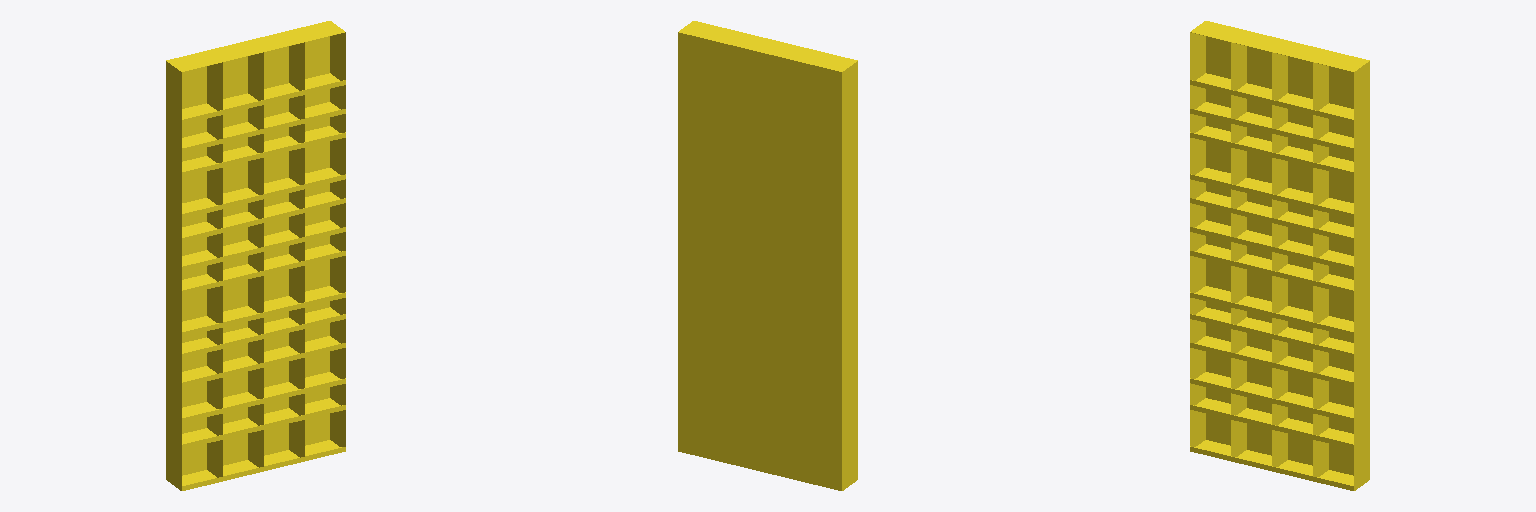
--- Render facts (derived) ---
The picture shows the robot from 3 angles, left to right: view 1: azimuth 30°, elevation 25°; view 2: azimuth 150°, elevation 25°; view 3: azimuth 330°, elevation 25°; orthographic projection.
Model pod1 with 380 links and 379 joints (1 revolute, 378 fixed), rooted at pod_base_link, posed every joint at zero.
Links seen in each view (by area): view 1: pod_bin_1m_back, pod_bin_2m_back, pod_bin_3m_back, pod_bin_4m_back, pod_bin_1m_left, pod_bin_1m_right, pod_bin_2m_right, pod_bin_3m_right, pod_bin_4m_right, pod_bin_1a_left, pod_bin_1j_left, pod_bin_1f_left (+28 smaller); view 2: pod_bin_4m_back, pod_bin_1m_back, pod_bin_2m_back, pod_bin_3m_back, pod_bin_3a_back, pod_bin_4a_back, pod_bin_1f_back, pod_bin_2f_back, pod_bin_3f_back, pod_bin_4f_back, pod_bin_1j_back, pod_bin_2j_back (+28 smaller); view 3: pod_bin_1m_back, pod_bin_2m_back, pod_bin_4m_back, pod_bin_3m_back, pod_bin_4m_right, pod_bin_3m_right, pod_bin_1m_left, pod_bin_1m_right, pod_bin_2m_right, pod_bin_4a_right, pod_bin_4f_right, pod_bin_4j_right (+28 smaller).
Boxes of the visible links, <box> form: pod_bin_1m_back: <box>166,51,206,108</box>; pod_bin_2m_back: <box>207,47,247,98</box>; pod_bin_3m_back: <box>248,37,288,88</box>; pod_bin_4m_back: <box>289,27,329,78</box>; pod_bin_1m_left: <box>166,61,181,124</box>; pod_bin_1m_right: <box>207,52,222,110</box>; pod_bin_2m_right: <box>248,44,263,100</box>; pod_bin_3m_right: <box>289,31,304,90</box>; pod_bin_4m_right: <box>330,21,345,80</box>; pod_bin_1a_left: <box>166,438,181,490</box>; pod_bin_1j_left: <box>166,166,181,218</box>; pod_bin_1f_left: <box>166,284,181,336</box>; pod_bin_4m_back: <box>678,32,718,94</box>; pod_bin_1m_back: <box>801,62,841,124</box>; pod_bin_2m_back: <box>760,52,800,114</box>; pod_bin_3m_back: <box>719,42,759,104</box>; pod_bin_3a_back: <box>719,420,759,470</box>; pod_bin_4a_back: <box>678,410,718,460</box>; pod_bin_1f_back: <box>801,286,841,336</box>; pod_bin_2f_back: <box>760,276,800,326</box>; pod_bin_3f_back: <box>719,266,759,316</box>; pod_bin_4f_back: <box>678,256,718,306</box>; pod_bin_1j_back: <box>801,167,841,218</box>; pod_bin_2j_back: <box>760,157,800,208</box>; pod_bin_1m_back: <box>1206,26,1242,78</box>; pod_bin_2m_back: <box>1247,36,1283,88</box>; pod_bin_4m_back: <box>1329,56,1369,108</box>; pod_bin_3m_back: <box>1288,46,1324,98</box>; pod_bin_4m_right: <box>1354,61,1369,124</box>; pod_bin_3m_right: <box>1313,54,1328,110</box>; pod_bin_1m_left: <box>1190,21,1205,80</box>; pod_bin_1m_right: <box>1231,34,1246,90</box>; pod_bin_2m_right: <box>1272,47,1287,100</box>; pod_bin_4a_right: <box>1354,438,1369,490</box>; pod_bin_4f_right: <box>1354,284,1369,336</box>; pod_bin_4j_right: <box>1354,166,1369,218</box>.
Bounding box of the posed robot: 0.9154 × 0.1534 × 2.23 m (x, y, z).
0 mesh visuals loaded from 1 distinct referenced files (none loaded); not drawn: 1 (reference not matched to a file when rendering).

robot.urdf — pod1:
<?xml version="1.0" ?>
<!-- =================================================================================== -->
<!-- |    This document was autogenerated by xacro from pod1.xacro                     | -->
<!-- |    EDITING THIS FILE BY HAND IS NOT RECOMMENDED                                 | -->
<!-- =================================================================================== -->
<robot name="pod1">
  <material name="yellow_fabric">
    <color rgba="1 .91 .2 1"/>
  </material>
  <material name="aluminum">
    <color rgba=".6 .6 .6 1"/>
  </material>
  <link name="pod_base_link">
    <inertial>
      <mass value="30.0"/>
      <inertia ixx="0.0002835" ixy="0.0" ixz="0.0" iyy="0.0002835" iyz="0.0" izz="0.000324"/>
    </inertial>
    <visual>
      <origin rpy="0 0 0" xyz=".4699 .4699 1.303"/>
      <geometry>
        <mesh filename="pod_frame.stl"/>
      </geometry>
      <material name="aluminum"/>
    </visual>
    <collision>
      <origin rpy="0 0 0" xyz=".4699 .4699 1.303"/>
      <geometry>
        <mesh filename="pod_frame.stl"/>
      </geometry>
    </collision>
  </link>
  <link name="pod_brace"/>
  <joint name="pod_base_link_pod_brace_joint" type="fixed">
    <origin xyz="0 0 .294"/>
    <parent link="pod_base_link"/>
    <child link="pod_brace"/>
  </joint>
  <link name="pod_fabric_base"/>
  <joint name="pod_brace_pod_fabric_base" type="fixed">
    <origin xyz="0.01 0.01 .045"/>
    <parent link="pod_brace"/>
    <child link="pod_fabric_base"/>
  </joint>
  <link name="pod_shelf_a"/>
  <link name="pod_bin_1a"/>
  <link name="pod_bin_1a_bottom">
    <inertial>
      <mass value="0.01"/>
      <inertia ixx="0.0002835" ixy="0.0" ixz="0.0" iyy="0.0002835" iyz="0.0" izz="0.000324"/>
    </inertial>
    <visual>
      <origin xyz="0.1143 0.07619999999999999 -0.0005"/>
      <geometry>
        <box size="0.2286 0.15239999999999998 0.001"/>
      </geometry>
      <material name="yellow_fabric"/>
    </visual>
    <collision>
      <origin xyz="0.1143 0.07619999999999999 -0.0005"/>
      <geometry>
        <box size="0.2286 0.15239999999999998 0.001"/>
      </geometry>
    </collision>
  </link>
  <link name="pod_bin_1a_left">
    <inertial>
      <mass value="0.01"/>
      <inertia ixx="0.0002835" ixy="0.0" ixz="0.0" iyy="0.0002835" iyz="0.0" izz="0.000324"/>
    </inertial>
    <visual>
      <origin xyz="0.07619999999999999 0.111125 -0.0005"/>
      <geometry>
        <box size="0.15239999999999998 0.22225 0.001"/>
      </geometry>
      <material name="yellow_fabric"/>
    </visual>
    <collision>
      <origin xyz="0.07619999999999999 0.111125 -0.0005"/>
      <geometry>
        <box size="0.15239999999999998 0.22225 0.001"/>
      </geometry>
    </collision>
  </link>
  <link name="pod_bin_1a_right">
    <inertial>
      <mass value="0.01"/>
      <inertia ixx="0.0002835" ixy="0.0" ixz="0.0" iyy="0.0002835" iyz="0.0" izz="0.000324"/>
    </inertial>
    <visual>
      <origin xyz="0.07619999999999999 0.111125 -0.0005"/>
      <geometry>
        <box size="0.15239999999999998 0.22225 0.001"/>
      </geometry>
      <material name="yellow_fabric"/>
    </visual>
    <collision>
      <origin xyz="0.07619999999999999 0.111125 -0.0005"/>
      <geometry>
        <box size="0.15239999999999998 0.22225 0.001"/>
      </geometry>
    </collision>
  </link>
  <link name="pod_bin_1a_top">
    <inertial>
      <mass value="0.01"/>
      <inertia ixx="0.0002835" ixy="0.0" ixz="0.0" iyy="0.0002835" iyz="0.0" izz="0.000324"/>
    </inertial>
    <visual>
      <origin xyz="0.1143 0.07619999999999999 -0.0005"/>
      <geometry>
        <box size="0.2286 0.15239999999999998 0.001"/>
      </geometry>
      <material name="yellow_fabric"/>
    </visual>
    <collision>
      <origin xyz="0.1143 0.07619999999999999 -0.0005"/>
      <geometry>
        <box size="0.2286 0.15239999999999998 0.001"/>
      </geometry>
    </collision>
  </link>
  <link name="pod_bin_1a_back">
    <inertial>
      <mass value="0.01"/>
      <inertia ixx="0.0002835" ixy="0.0" ixz="0.0" iyy="0.0002835" iyz="0.0" izz="0.000324"/>
    </inertial>
    <visual>
      <origin xyz="0.1143 0.111125 -0.0005"/>
      <geometry>
        <box size="0.2286 0.22225 0.001"/>
      </geometry>
      <material name="yellow_fabric"/>
    </visual>
    <collision>
      <origin xyz="0.1143 0.111125 -0.0005"/>
      <geometry>
        <box size="0.2286 0.22225 0.001"/>
      </geometry>
    </collision>
  </link>
  <link name="pod_bin_1a_flap">
    <inertial>
      <mass value="0.01"/>
      <inertia ixx="0.0002835" ixy="0.0" ixz="0.0" iyy="0.0002835" iyz="0.0" izz="0.000324"/>
    </inertial>
    <visual>
      <origin xyz="0.1143 0.0127 -0.0005"/>
      <geometry>
        <box size="0.2286 0.0254 0.001"/>
      </geometry>
      <material name="yellow_fabric"/>
    </visual>
    <collision>
      <origin xyz="0.1143 0.0127 -0.0005"/>
      <geometry>
        <box size="0.2286 0.0254 0.001"/>
      </geometry>
    </collision>
  </link>
  <joint name="pod_bin_1a_pod_bin_1a_bottom" type="fixed">
    <parent link="pod_bin_1a"/>
    <child link="pod_bin_1a_bottom"/>
  </joint>
  <joint name="pod_bin_1a_pod_bin_1a_left" type="fixed">
    <origin rpy="1.5707963267948966 0 1.5707963267948966 " xyz="0 0 0"/>
    <parent link="pod_bin_1a"/>
    <child link="pod_bin_1a_left"/>
  </joint>
  <joint name="pod_bin_1a_pod_bin_1a_right" type="fixed">
    <origin rpy="1.5707963267948966 0 1.5707963267948966 " xyz="0.2286 0 0"/>
    <parent link="pod_bin_1a"/>
    <child link="pod_bin_1a_right"/>
  </joint>
  <joint name="pod_bin_1a_pod_bin_1a_top" type="fixed">
    <origin rpy="0 0 0" xyz="0 0 0.22225"/>
    <parent link="pod_bin_1a"/>
    <child link="pod_bin_1a_top"/>
  </joint>
  <joint name="pod_bin_1a_pod_bin_1a_back" type="fixed">
    <origin rpy="1.5707963267948966 0 0" xyz="0 0.15239999999999998 0"/>
    <parent link="pod_bin_1a"/>
    <child link="pod_bin_1a_back"/>
  </joint>
  <joint name="pod_bin_1a_pod_bin_1a_flap" type="fixed">
    <origin rpy="1.5707963267948966 0 0" xyz="0 0 0"/>
    <parent link="pod_bin_1a"/>
    <child link="pod_bin_1a_flap"/>
  </joint>
  <joint name="pod_shelf_a_pod_bin_1a_joint" type="fixed">
    <origin xyz="0.0 0 0"/>
    <parent link="pod_shelf_a"/>
    <child link="pod_bin_1a"/>
  </joint>
  <link name="pod_bin_2a"/>
  <link name="pod_bin_2a_bottom">
    <inertial>
      <mass value="0.01"/>
      <inertia ixx="0.0002835" ixy="0.0" ixz="0.0" iyy="0.0002835" iyz="0.0" izz="0.000324"/>
    </inertial>
    <visual>
      <origin xyz="0.1143 0.07619999999999999 -0.0005"/>
      <geometry>
        <box size="0.2286 0.15239999999999998 0.001"/>
      </geometry>
      <material name="yellow_fabric"/>
    </visual>
    <collision>
      <origin xyz="0.1143 0.07619999999999999 -0.0005"/>
      <geometry>
        <box size="0.2286 0.15239999999999998 0.001"/>
      </geometry>
    </collision>
  </link>
  <link name="pod_bin_2a_left">
    <inertial>
      <mass value="0.01"/>
      <inertia ixx="0.0002835" ixy="0.0" ixz="0.0" iyy="0.0002835" iyz="0.0" izz="0.000324"/>
    </inertial>
    <visual>
      <origin xyz="0.07619999999999999 0.111125 -0.0005"/>
      <geometry>
        <box size="0.15239999999999998 0.22225 0.001"/>
      </geometry>
      <material name="yellow_fabric"/>
    </visual>
    <collision>
      <origin xyz="0.07619999999999999 0.111125 -0.0005"/>
      <geometry>
        <box size="0.15239999999999998 0.22225 0.001"/>
      </geometry>
    </collision>
  </link>
  <link name="pod_bin_2a_right">
    <inertial>
      <mass value="0.01"/>
      <inertia ixx="0.0002835" ixy="0.0" ixz="0.0" iyy="0.0002835" iyz="0.0" izz="0.000324"/>
    </inertial>
    <visual>
      <origin xyz="0.07619999999999999 0.111125 -0.0005"/>
      <geometry>
        <box size="0.15239999999999998 0.22225 0.001"/>
      </geometry>
      <material name="yellow_fabric"/>
    </visual>
    <collision>
      <origin xyz="0.07619999999999999 0.111125 -0.0005"/>
      <geometry>
        <box size="0.15239999999999998 0.22225 0.001"/>
      </geometry>
    </collision>
  </link>
  <link name="pod_bin_2a_top">
    <inertial>
      <mass value="0.01"/>
      <inertia ixx="0.0002835" ixy="0.0" ixz="0.0" iyy="0.0002835" iyz="0.0" izz="0.000324"/>
    </inertial>
    <visual>
      <origin xyz="0.1143 0.07619999999999999 -0.0005"/>
      <geometry>
        <box size="0.2286 0.15239999999999998 0.001"/>
      </geometry>
      <material name="yellow_fabric"/>
    </visual>
    <collision>
      <origin xyz="0.1143 0.07619999999999999 -0.0005"/>
      <geometry>
        <box size="0.2286 0.15239999999999998 0.001"/>
      </geometry>
    </collision>
  </link>
  <link name="pod_bin_2a_back">
    <inertial>
      <mass value="0.01"/>
      <inertia ixx="0.0002835" ixy="0.0" ixz="0.0" iyy="0.0002835" iyz="0.0" izz="0.000324"/>
    </inertial>
    <visual>
      <origin xyz="0.1143 0.111125 -0.0005"/>
      <geometry>
        <box size="0.2286 0.22225 0.001"/>
      </geometry>
      <material name="yellow_fabric"/>
    </visual>
    <collision>
      <origin xyz="0.1143 0.111125 -0.0005"/>
      <geometry>
        <box size="0.2286 0.22225 0.001"/>
      </geometry>
    </collision>
  </link>
  <link name="pod_bin_2a_flap">
    <inertial>
      <mass value="0.01"/>
      <inertia ixx="0.0002835" ixy="0.0" ixz="0.0" iyy="0.0002835" iyz="0.0" izz="0.000324"/>
    </inertial>
    <visual>
      <origin xyz="0.1143 0.0127 -0.0005"/>
      <geometry>
        <box size="0.2286 0.0254 0.001"/>
      </geometry>
      <material name="yellow_fabric"/>
    </visual>
    <collision>
      <origin xyz="0.1143 0.0127 -0.0005"/>
      <geometry>
        <box size="0.2286 0.0254 0.001"/>
      </geometry>
    </collision>
  </link>
  <joint name="pod_bin_2a_pod_bin_2a_bottom" type="fixed">
    <parent link="pod_bin_2a"/>
    <child link="pod_bin_2a_bottom"/>
  </joint>
  <joint name="pod_bin_2a_pod_bin_2a_left" type="fixed">
    <origin rpy="1.5707963267948966 0 1.5707963267948966 " xyz="0 0 0"/>
    <parent link="pod_bin_2a"/>
    <child link="pod_bin_2a_left"/>
  </joint>
  <joint name="pod_bin_2a_pod_bin_2a_right" type="fixed">
    <origin rpy="1.5707963267948966 0 1.5707963267948966 " xyz="0.2286 0 0"/>
    <parent link="pod_bin_2a"/>
    <child link="pod_bin_2a_right"/>
  </joint>
  <joint name="pod_bin_2a_pod_bin_2a_top" type="fixed">
    <origin rpy="0 0 0" xyz="0 0 0.22225"/>
    <parent link="pod_bin_2a"/>
    <child link="pod_bin_2a_top"/>
  </joint>
  <joint name="pod_bin_2a_pod_bin_2a_back" type="fixed">
    <origin rpy="1.5707963267948966 0 0" xyz="0 0.15239999999999998 0"/>
    <parent link="pod_bin_2a"/>
    <child link="pod_bin_2a_back"/>
  </joint>
  <joint name="pod_bin_2a_pod_bin_2a_flap" type="fixed">
    <origin rpy="1.5707963267948966 0 0" xyz="0 0 0"/>
    <parent link="pod_bin_2a"/>
    <child link="pod_bin_2a_flap"/>
  </joint>
  <joint name="pod_shelf_a_pod_bin_2a_joint" type="fixed">
    <origin xyz="0.2286 0 0"/>
    <parent link="pod_shelf_a"/>
    <child link="pod_bin_2a"/>
  </joint>
  <link name="pod_bin_3a"/>
  <link name="pod_bin_3a_bottom">
    <inertial>
      <mass value="0.01"/>
      <inertia ixx="0.0002835" ixy="0.0" ixz="0.0" iyy="0.0002835" iyz="0.0" izz="0.000324"/>
    </inertial>
    <visual>
      <origin xyz="0.1143 0.07619999999999999 -0.0005"/>
      <geometry>
        <box size="0.2286 0.15239999999999998 0.001"/>
      </geometry>
      <material name="yellow_fabric"/>
    </visual>
    <collision>
      <origin xyz="0.1143 0.07619999999999999 -0.0005"/>
      <geometry>
        <box size="0.2286 0.15239999999999998 0.001"/>
      </geometry>
    </collision>
  </link>
  <link name="pod_bin_3a_left">
    <inertial>
      <mass value="0.01"/>
      <inertia ixx="0.0002835" ixy="0.0" ixz="0.0" iyy="0.0002835" iyz="0.0" izz="0.000324"/>
    </inertial>
    <visual>
      <origin xyz="0.07619999999999999 0.111125 -0.0005"/>
      <geometry>
        <box size="0.15239999999999998 0.22225 0.001"/>
      </geometry>
      <material name="yellow_fabric"/>
    </visual>
    <collision>
      <origin xyz="0.07619999999999999 0.111125 -0.0005"/>
      <geometry>
        <box size="0.15239999999999998 0.22225 0.001"/>
      </geometry>
    </collision>
  </link>
  <link name="pod_bin_3a_right">
    <inertial>
      <mass value="0.01"/>
      <inertia ixx="0.0002835" ixy="0.0" ixz="0.0" iyy="0.0002835" iyz="0.0" izz="0.000324"/>
    </inertial>
    <visual>
      <origin xyz="0.07619999999999999 0.111125 -0.0005"/>
      <geometry>
        <box size="0.15239999999999998 0.22225 0.001"/>
      </geometry>
      <material name="yellow_fabric"/>
    </visual>
    <collision>
      <origin xyz="0.07619999999999999 0.111125 -0.0005"/>
      <geometry>
        <box size="0.15239999999999998 0.22225 0.001"/>
      </geometry>
    </collision>
  </link>
  <link name="pod_bin_3a_top">
    <inertial>
      <mass value="0.01"/>
      <inertia ixx="0.0002835" ixy="0.0" ixz="0.0" iyy="0.0002835" iyz="0.0" izz="0.000324"/>
    </inertial>
    <visual>
      <origin xyz="0.1143 0.07619999999999999 -0.0005"/>
      <geometry>
        <box size="0.2286 0.15239999999999998 0.001"/>
      </geometry>
      <material name="yellow_fabric"/>
    </visual>
    <collision>
      <origin xyz="0.1143 0.07619999999999999 -0.0005"/>
      <geometry>
        <box size="0.2286 0.15239999999999998 0.001"/>
      </geometry>
    </collision>
  </link>
  <link name="pod_bin_3a_back">
    <inertial>
      <mass value="0.01"/>
      <inertia ixx="0.0002835" ixy="0.0" ixz="0.0" iyy="0.0002835" iyz="0.0" izz="0.000324"/>
    </inertial>
    <visual>
      <origin xyz="0.1143 0.111125 -0.0005"/>
      <geometry>
        <box size="0.2286 0.22225 0.001"/>
      </geometry>
      <material name="yellow_fabric"/>
    </visual>
    <collision>
      <origin xyz="0.1143 0.111125 -0.0005"/>
      <geometry>
        <box size="0.2286 0.22225 0.001"/>
      </geometry>
    </collision>
  </link>
  <link name="pod_bin_3a_flap">
    <inertial>
      <mass value="0.01"/>
      <inertia ixx="0.0002835" ixy="0.0" ixz="0.0" iyy="0.0002835" iyz="0.0" izz="0.000324"/>
    </inertial>
    <visual>
      <origin xyz="0.1143 0.0127 -0.0005"/>
      <geometry>
        <box size="0.2286 0.0254 0.001"/>
      </geometry>
      <material name="yellow_fabric"/>
    </visual>
    <collision>
      <origin xyz="0.1143 0.0127 -0.0005"/>
      <geometry>
        <box size="0.2286 0.0254 0.001"/>
      </geometry>
    </collision>
  </link>
  <joint name="pod_bin_3a_pod_bin_3a_bottom" type="fixed">
    <parent link="pod_bin_3a"/>
    <child link="pod_bin_3a_bottom"/>
  </joint>
  <joint name="pod_bin_3a_pod_bin_3a_left" type="fixed">
    <origin rpy="1.5707963267948966 0 1.5707963267948966 " xyz="0 0 0"/>
    <parent link="pod_bin_3a"/>
    <child link="pod_bin_3a_left"/>
  </joint>
  <joint name="pod_bin_3a_pod_bin_3a_right" type="fixed">
    <origin rpy="1.5707963267948966 0 1.5707963267948966 " xyz="0.2286 0 0"/>
    <parent link="pod_bin_3a"/>
    <child link="pod_bin_3a_right"/>
  </joint>
  <joint name="pod_bin_3a_pod_bin_3a_top" type="fixed">
    <origin rpy="0 0 0" xyz="0 0 0.22225"/>
    <parent link="pod_bin_3a"/>
    <child link="pod_bin_3a_top"/>
  </joint>
  <joint name="pod_bin_3a_pod_bin_3a_back" type="fixed">
    <origin rpy="1.5707963267948966 0 0" xyz="0 0.15239999999999998 0"/>
    <parent link="pod_bin_3a"/>
    <child link="pod_bin_3a_back"/>
  </joint>
  <joint name="pod_bin_3a_pod_bin_3a_flap" type="fixed">
    <origin rpy="1.5707963267948966 0 0" xyz="0 0 0"/>
    <parent link="pod_bin_3a"/>
    <child link="pod_bin_3a_flap"/>
  </joint>
  <joint name="pod_shelf_a_pod_bin_3a_joint" type="fixed">
    <origin xyz="0.4572 0 0"/>
    <parent link="pod_shelf_a"/>
    <child link="pod_bin_3a"/>
  </joint>
  <link name="pod_bin_4a"/>
  <link name="pod_bin_4a_bottom">
    <inertial>
      <mass value="0.01"/>
      <inertia ixx="0.0002835" ixy="0.0" ixz="0.0" iyy="0.0002835" iyz="0.0" izz="0.000324"/>
    </inertial>
    <visual>
      <origin xyz="0.1143 0.07619999999999999 -0.0005"/>
      <geometry>
        <box size="0.2286 0.15239999999999998 0.001"/>
      </geometry>
      <material name="yellow_fabric"/>
    </visual>
    <collision>
      <origin xyz="0.1143 0.07619999999999999 -0.0005"/>
      <geometry>
        <box size="0.2286 0.15239999999999998 0.001"/>
      </geometry>
    </collision>
  </link>
  <link name="pod_bin_4a_left">
    <inertial>
      <mass value="0.01"/>
      <inertia ixx="0.0002835" ixy="0.0" ixz="0.0" iyy="0.0002835" iyz="0.0" izz="0.000324"/>
    </inertial>
    <visual>
      <origin xyz="0.07619999999999999 0.111125 -0.0005"/>
      <geometry>
        <box size="0.15239999999999998 0.22225 0.001"/>
      </geometry>
      <material name="yellow_fabric"/>
    </visual>
    <collision>
      <origin xyz="0.07619999999999999 0.111125 -0.0005"/>
      <geometry>
        <box size="0.15239999999999998 0.22225 0.001"/>
      </geometry>
    </collision>
  </link>
  <link name="pod_bin_4a_right">
    <inertial>
      <mass value="0.01"/>
      <inertia ixx="0.0002835" ixy="0.0" ixz="0.0" iyy="0.0002835" iyz="0.0" izz="0.000324"/>
    </inertial>
    <visual>
      <origin xyz="0.07619999999999999 0.111125 -0.0005"/>
      <geometry>
        <box size="0.15239999999999998 0.22225 0.001"/>
      </geometry>
      <material name="yellow_fabric"/>
    </visual>
    <collision>
      <origin xyz="0.07619999999999999 0.111125 -0.0005"/>
      <geometry>
        <box size="0.15239999999999998 0.22225 0.001"/>
      </geometry>
    </collision>
  </link>
  <link name="pod_bin_4a_top">
    <inertial>
      <mass value="0.01"/>
      <inertia ixx="0.0002835" ixy="0.0" ixz="0.0" iyy="0.0002835" iyz="0.0" izz="0.000324"/>
    </inertial>
    <visual>
      <origin xyz="0.1143 0.07619999999999999 -0.0005"/>
      <geometry>
        <box size="0.2286 0.15239999999999998 0.001"/>
      </geometry>
      <material name="yellow_fabric"/>
    </visual>
    <collision>
      <origin xyz="0.1143 0.07619999999999999 -0.0005"/>
      <geometry>
        <box size="0.2286 0.15239999999999998 0.001"/>
      </geometry>
    </collision>
  </link>
  <link name="pod_bin_4a_back">
    <inertial>
      <mass value="0.01"/>
      <inertia ixx="0.0002835" ixy="0.0" ixz="0.0" iyy="0.0002835" iyz="0.0" izz="0.000324"/>
    </inertial>
    <visual>
      <origin xyz="0.1143 0.111125 -0.0005"/>
      <geometry>
        <box size="0.2286 0.22225 0.001"/>
      </geometry>
      <material name="yellow_fabric"/>
    </visual>
    <collision>
      <origin xyz="0.1143 0.111125 -0.0005"/>
      <geometry>
        <box size="0.2286 0.22225 0.001"/>
      </geometry>
    </collision>
  </link>
  <link name="pod_bin_4a_flap">
    <inertial>
      <mass value="0.01"/>
      <inertia ixx="0.0002835" ixy="0.0" ixz="0.0" iyy="0.0002835" iyz="0.0" izz="0.000324"/>
    </inertial>
    <visual>
      <origin xyz="0.1143 0.0127 -0.0005"/>
      <geometry>
        <box size="0.2286 0.0254 0.001"/>
      </geometry>
      <material name="yellow_fabric"/>
    </visual>
    <collision>
      <origin xyz="0.1143 0.0127 -0.0005"/>
      <geometry>
        <box size="0.2286 0.0254 0.001"/>
      </geometry>
    </collision>
  </link>
  <joint name="pod_bin_4a_pod_bin_4a_bottom" type="fixed">
    <parent link="pod_bin_4a"/>
    <child link="pod_bin_4a_bottom"/>
  </joint>
  <joint name="pod_bin_4a_pod_bin_4a_left" type="fixed">
    <origin rpy="1.5707963267948966 0 1.5707963267948966 " xyz="0 0 0"/>
    <parent link="pod_bin_4a"/>
    <child link="pod_bin_4a_left"/>
  </joint>
  <joint name="pod_bin_4a_pod_bin_4a_right" type="fixed">
    <origin rpy="1.5707963267948966 0 1.5707963267948966 " xyz="0.2286 0 0"/>
    <parent link="pod_bin_4a"/>
    <child link="pod_bin_4a_right"/>
  </joint>
  <joint name="pod_bin_4a_pod_bin_4a_top" type="fixed">
    <origin rpy="0 0 0" xyz="0 0 0.22225"/>
    <parent link="pod_bin_4a"/>
    <child link="pod_bin_4a_top"/>
  </joint>
  <joint name="pod_bin_4a_pod_bin_4a_back" type="fixed">
    <origin rpy="1.5707963267948966 0 0" xyz="0 0.15239999999999998 0"/>
    <parent link="pod_bin_4a"/>
    <child link="pod_bin_4a_back"/>
  </joint>
  <joint name="pod_bin_4a_pod_bin_4a_flap" type="fixed">
    <origin rpy="1.5707963267948966 0 0" xyz="0 0 0"/>
    <parent link="pod_bin_4a"/>
    <child link="pod_bin_4a_flap"/>
  </joint>
  <joint name="pod_shelf_a_pod_bin_4a_joint" type="fixed">
    <origin xyz="0.6858 0 0"/>
    <parent link="pod_shelf_a"/>
    <child link="pod_bin_4a"/>
  </joint>
  <joint name="pod_fabric_base_pod_shelf_a_joint" type="fixed">
    <origin xyz="0 0 0"/>
    <parent link="pod_fabric_base"/>
    <child link="pod_shelf_a"/>
  </joint>
  <link name="pod_shelf_b"/>
  <link name="pod_bin_1b"/>
  <link name="pod_bin_1b_bottom">
    <inertial>
      <mass value="0.01"/>
      <inertia ixx="0.0002835" ixy="0.0" ixz="0.0" iyy="0.0002835" iyz="0.0" izz="0.000324"/>
    </inertial>
    <visual>
      <origin xyz="0.1143 0.07619999999999999 -0.0005"/>
      <geometry>
        <box size="0.2286 0.15239999999999998 0.001"/>
      </geometry>
      <material name="yellow_fabric"/>
    </visual>
    <collision>
      <origin xyz="0.1143 0.07619999999999999 -0.0005"/>
      <geometry>
        <box size="0.2286 0.15239999999999998 0.001"/>
      </geometry>
    </collision>
  </link>
  <link name="pod_bin_1b_left">
    <inertial>
      <mass value="0.01"/>
      <inertia ixx="0.0002835" ixy="0.0" ixz="0.0" iyy="0.0002835" iyz="0.0" izz="0.000324"/>
    </inertial>
    <visual>
      <origin xyz="0.07619999999999999 0.06985 -0.0005"/>
      <geometry>
        <box size="0.15239999999999998 0.1397 0.001"/>
      </geometry>
      <material name="yellow_fabric"/>
    </visual>
    <collision>
      <origin xyz="0.07619999999999999 0.06985 -0.0005"/>
      <geometry>
        <box size="0.15239999999999998 0.1397 0.001"/>
      </geometry>
    </collision>
  </link>
  <link name="pod_bin_1b_right">
    <inertial>
      <mass value="0.01"/>
      <inertia ixx="0.0002835" ixy="0.0" ixz="0.0" iyy="0.0002835" iyz="0.0" izz="0.000324"/>
    </inertial>
    <visual>
      <origin xyz="0.07619999999999999 0.06985 -0.0005"/>
      <geometry>
        <box size="0.15239999999999998 0.1397 0.001"/>
      </geometry>
      <material name="yellow_fabric"/>
    </visual>
    <collision>
      <origin xyz="0.07619999999999999 0.06985 -0.0005"/>
      <geometry>
        <box size="0.15239999999999998 0.1397 0.001"/>
      </geometry>
    </collision>
  </link>
  <link name="pod_bin_1b_top">
    <inertial>
      <mass value="0.01"/>
      <inertia ixx="0.0002835" ixy="0.0" ixz="0.0" iyy="0.0002835" iyz="0.0" izz="0.000324"/>
    </inertial>
    <visual>
      <origin xyz="0.1143 0.07619999999999999 -0.0005"/>
      <geometry>
        <box size="0.2286 0.15239999999999998 0.001"/>
      </geometry>
      <material name="yellow_fabric"/>
    </visual>
    <collision>
      <origin xyz="0.1143 0.07619999999999999 -0.0005"/>
      <geometry>
        <box size="0.2286 0.15239999999999998 0.001"/>
      </geometry>
    </collision>
  </link>
  <link name="pod_bin_1b_back">
    <inertial>
      <mass value="0.01"/>
      <inertia ixx="0.0002835" ixy="0.0" ixz="0.0" iyy="0.0002835" iyz="0.0" izz="0.000324"/>
    </inertial>
    <visual>
      <origin xyz="0.1143 0.06985 -0.0005"/>
      <geometry>
        <box size="0.2286 0.1397 0.001"/>
      </geometry>
      <material name="yellow_fabric"/>
    </visual>
    <collision>
      <origin xyz="0.1143 0.06985 -0.0005"/>
      <geometry>
        <box size="0.2286 0.1397 0.001"/>
      </geometry>
    </collision>
  </link>
  <link name="pod_bin_1b_flap">
    <inertial>
      <mass value="0.01"/>
      <inertia ixx="0.0002835" ixy="0.0" ixz="0.0" iyy="0.0002835" iyz="0.0" izz="0.000324"/>
    </inertial>
    <visual>
      <origin xyz="0.1143 0.0127 -0.0005"/>
      <geometry>
        <box size="0.2286 0.0254 0.001"/>
      </geometry>
      <material name="yellow_fabric"/>
    </visual>
    <collision>
      <origin xyz="0.1143 0.0127 -0.0005"/>
      <geometry>
        <box size="0.2286 0.0254 0.001"/>
      </geometry>
    </collision>
  </link>
  <joint name="pod_bin_1b_pod_bin_1b_bottom" type="fixed">
    <parent link="pod_bin_1b"/>
    <child link="pod_bin_1b_bottom"/>
  </joint>
  <joint name="pod_bin_1b_pod_bin_1b_left" type="fixed">
    <origin rpy="1.5707963267948966 0 1.5707963267948966 " xyz="0 0 0"/>
    <parent link="pod_bin_1b"/>
    <child link="pod_bin_1b_left"/>
  </joint>
  <joint name="pod_bin_1b_pod_bin_1b_right" type="fixed">
    <origin rpy="1.5707963267948966 0 1.5707963267948966 " xyz="0.2286 0 0"/>
    <parent link="pod_bin_1b"/>
    <child link="pod_bin_1b_right"/>
  </joint>
  <joint name="pod_bin_1b_pod_bin_1b_top" type="fixed">
    <origin rpy="0 0 0" xyz="0 0 0.1397"/>
    <parent link="pod_bin_1b"/>
    <child link="pod_bin_1b_top"/>
  </joint>
  <joint name="pod_bin_1b_pod_bin_1b_back" type="fixed">
    <origin rpy="1.5707963267948966 0 0" xyz="0 0.15239999999999998 0"/>
    <parent link="pod_bin_1b"/>
    <child link="pod_bin_1b_back"/>
  </joint>
  <joint name="pod_bin_1b_pod_bin_1b_flap" type="fixed">
    <origin rpy="1.5707963267948966 0 0" xyz="0 0 0"/>
    <parent link="pod_bin_1b"/>
    <child link="pod_bin_1b_flap"/>
  </joint>
  <joint name="pod_shelf_b_pod_bin_1b_joint" type="fixed">
    <origin xyz="0.0 0 0"/>
    <parent link="pod_shelf_b"/>
    <child link="pod_bin_1b"/>
  </joint>
  <link name="pod_bin_2b"/>
  <link name="pod_bin_2b_bottom">
    <inertial>
      <mass value="0.01"/>
      <inertia ixx="0.0002835" ixy="0.0" ixz="0.0" iyy="0.0002835" iyz="0.0" izz="0.000324"/>
    </inertial>
    <visual>
      <origin xyz="0.1143 0.07619999999999999 -0.0005"/>
      <geometry>
        <box size="0.2286 0.15239999999999998 0.001"/>
      </geometry>
      <material name="yellow_fabric"/>
    </visual>
    <collision>
      <origin xyz="0.1143 0.07619999999999999 -0.0005"/>
      <geometry>
        <box size="0.2286 0.15239999999999998 0.001"/>
      </geometry>
    </collision>
  </link>
  <link name="pod_bin_2b_left">
    <inertial>
      <mass value="0.01"/>
      <inertia ixx="0.0002835" ixy="0.0" ixz="0.0" iyy="0.0002835" iyz="0.0" izz="0.000324"/>
    </inertial>
    <visual>
      <origin xyz="0.07619999999999999 0.06985 -0.0005"/>
      <geometry>
        <box size="0.15239999999999998 0.1397 0.001"/>
      </geometry>
      <material name="yellow_fabric"/>
    </visual>
    <collision>
      <origin xyz="0.07619999999999999 0.06985 -0.0005"/>
      <geometry>
        <box size="0.15239999999999998 0.1397 0.001"/>
      </geometry>
    </collision>
  </link>
  <link name="pod_bin_2b_right">
    <inertial>
      <mass value="0.01"/>
      <inertia ixx="0.0002835" ixy="0.0" ixz="0.0" iyy="0.0002835" iyz="0.0" izz="0.000324"/>
    </inertial>
    <visual>
      <origin xyz="0.07619999999999999 0.06985 -0.0005"/>
      <geometry>
        <box size="0.15239999999999998 0.1397 0.001"/>
      </geometry>
      <material name="yellow_fabric"/>
    </visual>
    <collision>
      <origin xyz="0.07619999999999999 0.06985 -0.0005"/>
      <geometry>
        <box size="0.15239999999999998 0.1397 0.001"/>
      </geometry>
    </collision>
  </link>
  <link name="pod_bin_2b_top">
    <inertial>
      <mass value="0.01"/>
      <inertia ixx="0.0002835" ixy="0.0" ixz="0.0" iyy="0.0002835" iyz="0.0" izz="0.000324"/>
    </inertial>
    <visual>
      <origin xyz="0.1143 0.07619999999999999 -0.0005"/>
      <geometry>
        <box size="0.2286 0.15239999999999998 0.001"/>
      </geometry>
      <material name="yellow_fabric"/>
    </visual>
    <collision>
      <origin xyz="0.1143 0.07619999999999999 -0.0005"/>
      <geometry>
        <box size="0.2286 0.15239999999999998 0.001"/>
      </geometry>
    </collision>
  </link>
  <link name="pod_bin_2b_back">
    <inertial>
      <mass value="0.01"/>
      <inertia ixx="0.0002835" ixy="0.0" ixz="0.0" iyy="0.0002835" iyz="0.0" izz="0.000324"/>
    </inertial>
    <visual>
      <origin xyz="0.1143 0.06985 -0.0005"/>
      <geometry>
        <box size="0.2286 0.1397 0.001"/>
      </geometry>
      <material name="yellow_fabric"/>
    </visual>
    <collision>
      <origin xyz="0.1143 0.06985 -0.0005"/>
      <geometry>
        <box size="0.2286 0.1397 0.001"/>
      </geometry>
    </collision>
  </link>
  <link name="pod_bin_2b_flap">
    <inertial>
      <mass value="0.01"/>
      <inertia ixx="0.0002835" ixy="0.0" ixz="0.0" iyy="0.0002835" iyz="0.0" izz="0.000324"/>
    </inertial>
    <visual>
      <origin xyz="0.1143 0.0127 -0.0005"/>
      <geometry>
        <box size="0.2286 0.0254 0.001"/>
      </geometry>
      <material name="yellow_fabric"/>
    </visual>
    <collision>
      <origin xyz="0.1143 0.0127 -0.0005"/>
      <geometry>
        <box size="0.2286 0.0254 0.001"/>
      </geometry>
    </collision>
  </link>
  <joint name="pod_bin_2b_pod_bin_2b_bottom" type="fixed">
    <parent link="pod_bin_2b"/>
    <child link="pod_bin_2b_bottom"/>
  </joint>
  <joint name="pod_bin_2b_pod_bin_2b_left" type="fixed">
    <origin rpy="1.5707963267948966 0 1.5707963267948966 " xyz="0 0 0"/>
    <parent link="pod_bin_2b"/>
    <child link="pod_bin_2b_left"/>
  </joint>
  <joint name="pod_bin_2b_pod_bin_2b_right" type="fixed">
    <origin rpy="1.5707963267948966 0 1.5707963267948966 " xyz="0.2286 0 0"/>
    <parent link="pod_bin_2b"/>
    <child link="pod_bin_2b_right"/>
  </joint>
  <joint name="pod_bin_2b_pod_bin_2b_top" type="fixed">
    <origin rpy="0 0 0" xyz="0 0 0.1397"/>
    <parent link="pod_bin_2b"/>
    <child link="pod_bin_2b_top"/>
  </joint>
  <joint name="pod_bin_2b_pod_bin_2b_back" type="fixed">
    <origin rpy="1.5707963267948966 0 0" xyz="0 0.15239999999999998 0"/>
    <parent link="pod_bin_2b"/>
    <child link="pod_bin_2b_back"/>
  </joint>
  <joint name="pod_bin_2b_pod_bin_2b_flap" type="fixed">
    <origin rpy="1.5707963267948966 0 0" xyz="0 0 0"/>
    <parent link="pod_bin_2b"/>
    <child link="pod_bin_2b_flap"/>
  </joint>
  <joint name="pod_shelf_b_pod_bin_2b_joint" type="fixed">
    <origin xyz="0.2286 0 0"/>
    <parent link="pod_shelf_b"/>
    <child link="pod_bin_2b"/>
  </joint>
  <link name="pod_bin_3b"/>
  <link name="pod_bin_3b_bottom">
    <inertial>
      <mass value="0.01"/>
      <inertia ixx="0.0002835" ixy="0.0" ixz="0.0" iyy="0.0002835" iyz="0.0" izz="0.000324"/>
    </inertial>
    <visual>
      <origin xyz="0.1143 0.07619999999999999 -0.0005"/>
      <geometry>
        <box size="0.2286 0.15239999999999998 0.001"/>
      </geometry>
      <material name="yellow_fabric"/>
    </visual>
    <collision>
      <origin xyz="0.1143 0.07619999999999999 -0.0005"/>
      <geometry>
        <box size="0.2286 0.15239999999999998 0.001"/>
      </geometry>
    </collision>
  </link>
  <link name="pod_bin_3b_left">
    <inertial>
      <mass value="0.01"/>
      <inertia ixx="0.0002835" ixy="0.0" ixz="0.0" iyy="0.0002835" iyz="0.0" izz="0.000324"/>
    </inertial>
    <visual>
      <origin xyz="0.07619999999999999 0.06985 -0.0005"/>
      <geometry>
        <box size="0.15239999999999998 0.1397 0.001"/>
      </geometry>
      <material name="yellow_fabric"/>
    </visual>
    <collision>
      <origin xyz="0.07619999999999999 0.06985 -0.0005"/>
      <geometry>
        <box size="0.15239999999999998 0.1397 0.001"/>
      </geometry>
    </collision>
  </link>
  <link name="pod_bin_3b_right">
    <inertial>
      <mass value="0.01"/>
      <inertia ixx="0.0002835" ixy="0.0" ixz="0.0" iyy="0.0002835" iyz="0.0" izz="0.000324"/>
    </inertial>
    <visual>
      <origin xyz="0.07619999999999999 0.06985 -0.0005"/>
      <geometry>
        <box size="0.15239999999999998 0.1397 0.001"/>
      </geometry>
      <material name="yellow_fabric"/>
    </visual>
    <collision>
      <origin xyz="0.07619999999999999 0.06985 -0.0005"/>
      <geometry>
        <box size="0.15239999999999998 0.1397 0.001"/>
      </geometry>
    </collision>
  </link>
  <link name="pod_bin_3b_top">
    <inertial>
      <mass value="0.01"/>
      <inertia ixx="0.0002835" ixy="0.0" ixz="0.0" iyy="0.0002835" iyz="0.0" izz="0.000324"/>
    </inertial>
    <visual>
      <origin xyz="0.1143 0.07619999999999999 -0.0005"/>
      <geometry>
        <box size="0.2286 0.15239999999999998 0.001"/>
      </geometry>
      <material name="yellow_fabric"/>
    </visual>
    <collision>
      <origin xyz="0.1143 0.07619999999999999 -0.0005"/>
      <geometry>
        <box size="0.2286 0.15239999999999998 0.001"/>
      </geometry>
    </collision>
  </link>
  <link name="pod_bin_3b_back">
    <inertial>
      <mass value="0.01"/>
      <inertia ixx="0.0002835" ixy="0.0" ixz="0.0" iyy="0.0002835" iyz="0.0" izz="0.000324"/>
    </inertial>
    <visual>
      <origin xyz="0.1143 0.06985 -0.0005"/>
      <geometry>
        <box size="0.2286 0.1397 0.001"/>
      </geometry>
      <material name="yellow_fabric"/>
    </visual>
    <collision>
      <origin xyz="0.1143 0.06985 -0.0005"/>
      <geometry>
        <box size="0.2286 0.1397 0.001"/>
      </geometry>
    </collision>
  </link>
  <link name="pod_bin_3b_flap">
    <inertial>
      <mass value="0.01"/>
      <inertia ixx="0.0002835" ixy="0.0" ixz="0.0" iyy="0.0002835" iyz="0.0" izz="0.000324"/>
    </inertial>
    <visual>
      <origin xyz="0.1143 0.0127 -0.0005"/>
      <geometry>
        <box size="0.2286 0.0254 0.001"/>
      </geometry>
      <material name="yellow_fabric"/>
    </visual>
    <collision>
      <origin xyz="0.1143 0.0127 -0.0005"/>
      <geometry>
        <box size="0.2286 0.0254 0.001"/>
      </geometry>
    </collision>
  </link>
  <joint name="pod_bin_3b_pod_bin_3b_bottom" type="fixed">
    <parent link="pod_bin_3b"/>
    <child link="pod_bin_3b_bottom"/>
  </joint>
  <joint name="pod_bin_3b_pod_bin_3b_left" type="fixed">
    <origin rpy="1.5707963267948966 0 1.5707963267948966 " xyz="0 0 0"/>
    <parent link="pod_bin_3b"/>
    <child link="pod_bin_3b_left"/>
  </joint>
  <joint name="pod_bin_3b_pod_bin_3b_right" type="fixed">
    <origin rpy="1.5707963267948966 0 1.5707963267948966 " xyz="0.2286 0 0"/>
    <parent link="pod_bin_3b"/>
    <child link="pod_bin_3b_right"/>
  </joint>
  <joint name="pod_bin_3b_pod_bin_3b_top" type="fixed">
    <origin rpy="0 0 0" xyz="0 0 0.1397"/>
    <parent link="pod_bin_3b"/>
    <child link="pod_bin_3b_top"/>
  </joint>
  <joint name="pod_bin_3b_pod_bin_3b_back" type="fixed">
    <origin rpy="1.5707963267948966 0 0" xyz="0 0.15239999999999998 0"/>
    <parent link="pod_bin_3b"/>
    <child link="pod_bin_3b_back"/>
  </joint>
  <joint name="pod_bin_3b_pod_bin_3b_flap" type="fixed">
    <origin rpy="1.5707963267948966 0 0" xyz="0 0 0"/>
    <parent link="pod_bin_3b"/>
    <child link="pod_bin_3b_flap"/>
  </joint>
  <joint name="pod_shelf_b_pod_bin_3b_joint" type="fixed">
    <origin xyz="0.4572 0 0"/>
    <parent link="pod_shelf_b"/>
    <child link="pod_bin_3b"/>
  </joint>
  <link name="pod_bin_4b"/>
  <link name="pod_bin_4b_bottom">
    <inertial>
      <mass value="0.01"/>
      <inertia ixx="0.0002835" ixy="0.0" ixz="0.0" iyy="0.0002835" iyz="0.0" izz="0.000324"/>
    </inertial>
    <visual>
      <origin xyz="0.1143 0.07619999999999999 -0.0005"/>
      <geometry>
        <box size="0.2286 0.15239999999999998 0.001"/>
      </geometry>
      <material name="yellow_fabric"/>
    </visual>
    <collision>
      <origin xyz="0.1143 0.07619999999999999 -0.0005"/>
      <geometry>
        <box size="0.2286 0.15239999999999998 0.001"/>
      </geometry>
    </collision>
  </link>
  <link name="pod_bin_4b_left">
    <inertial>
      <mass value="0.01"/>
      <inertia ixx="0.0002835" ixy="0.0" ixz="0.0" iyy="0.0002835" iyz="0.0" izz="0.000324"/>
    </inertial>
    <visual>
      <origin xyz="0.07619999999999999 0.06985 -0.0005"/>
      <geometry>
        <box size="0.15239999999999998 0.1397 0.001"/>
      </geometry>
      <material name="yellow_fabric"/>
    </visual>
    <collision>
      <origin xyz="0.07619999999999999 0.06985 -0.0005"/>
      <geometry>
        <box size="0.15239999999999998 0.1397 0.001"/>
      </geometry>
    </collision>
  </link>
  <link name="pod_bin_4b_right">
    <inertial>
      <mass value="0.01"/>
      <inertia ixx="0.0002835" ixy="0.0" ixz="0.0" iyy="0.0002835" iyz="0.0" izz="0.000324"/>
    </inertial>
    <visual>
      <origin xyz="0.07619999999999999 0.06985 -0.0005"/>
      <geometry>
        <box size="0.15239999999999998 0.1397 0.001"/>
      </geometry>
      <material name="yellow_fabric"/>
    </visual>
    <collision>
      <origin xyz="0.07619999999999999 0.06985 -0.0005"/>
      <geometry>
        <box size="0.15239999999999998 0.1397 0.001"/>
      </geometry>
    </collision>
  </link>
  <link name="pod_bin_4b_top">
    <inertial>
      <mass value="0.01"/>
      <inertia ixx="0.0002835" ixy="0.0" ixz="0.0" iyy="0.0002835" iyz="0.0" izz="0.000324"/>
    </inertial>
    <visual>
      <origin xyz="0.1143 0.07619999999999999 -0.0005"/>
      <geometry>
        <box size="0.2286 0.15239999999999998 0.001"/>
      </geometry>
      <material name="yellow_fabric"/>
    </visual>
    <collision>
      <origin xyz="0.1143 0.07619999999999999 -0.0005"/>
      <geometry>
        <box size="0.2286 0.15239999999999998 0.001"/>
      </geometry>
    </collision>
  </link>
  <link name="pod_bin_4b_back">
    <inertial>
      <mass value="0.01"/>
      <inertia ixx="0.0002835" ixy="0.0" ixz="0.0" iyy="0.0002835" iyz="0.0" izz="0.000324"/>
    </inertial>
    <visual>
      <origin xyz="0.1143 0.06985 -0.0005"/>
      <geometry>
        <box size="0.2286 0.1397 0.001"/>
      </geometry>
      <material name="yellow_fabric"/>
    </visual>
    <collision>
      <origin xyz="0.1143 0.06985 -0.0005"/>
      <geometry>
        <box size="0.2286 0.1397 0.001"/>
      </geometry>
    </collision>
  </link>
  <link name="pod_bin_4b_flap">
    <inertial>
      <mass value="0.01"/>
      <inertia ixx="0.0002835" ixy="0.0" ixz="0.0" iyy="0.0002835" iyz="0.0" izz="0.000324"/>
    </inertial>
    <visual>
      <origin xyz="0.1143 0.0127 -0.0005"/>
      <geometry>
        <box size="0.2286 0.0254 0.001"/>
      </geometry>
      <material name="yellow_fabric"/>
    </visual>
    <collision>
      <origin xyz="0.1143 0.0127 -0.0005"/>
      <geometry>
        <box size="0.2286 0.0254 0.001"/>
      </geometry>
    </collision>
  </link>
  <joint name="pod_bin_4b_pod_bin_4b_bottom" type="fixed">
    <parent link="pod_bin_4b"/>
    <child link="pod_bin_4b_bottom"/>
  </joint>
  <joint name="pod_bin_4b_pod_bin_4b_left" type="fixed">
    <origin rpy="1.5707963267948966 0 1.5707963267948966 " xyz="0 0 0"/>
    <parent link="pod_bin_4b"/>
    <child link="pod_bin_4b_left"/>
  </joint>
  <joint name="pod_bin_4b_pod_bin_4b_right" type="fixed">
    <origin rpy="1.5707963267948966 0 1.5707963267948966 " xyz="0.2286 0 0"/>
    <parent link="pod_bin_4b"/>
    <child link="pod_bin_4b_right"/>
  </joint>
  <joint name="pod_bin_4b_pod_bin_4b_top" type="fixed">
    <origin rpy="0 0 0" xyz="0 0 0.1397"/>
    <parent link="pod_bin_4b"/>
    <child link="pod_bin_4b_top"/>
  </joint>
  <joint name="pod_bin_4b_pod_bin_4b_back" type="fixed">
    <origin rpy="1.5707963267948966 0 0" xyz="0 0.15239999999999998 0"/>
    <parent link="pod_bin_4b"/>
    <child link="pod_bin_4b_back"/>
  </joint>
  <joint name="pod_bin_4b_pod_bin_4b_flap" type="fixed">
    <origin rpy="1.5707963267948966 0 0" xyz="0 0 0"/>
    <parent link="pod_bin_4b"/>
    <child link="pod_bin_4b_flap"/>
  </joint>
  <joint name="pod_shelf_b_pod_bin_4b_joint" type="fixed">
    <origin xyz="0.6858 0 0"/>
    <parent link="pod_shelf_b"/>
    <child link="pod_bin_4b"/>
  </joint>
  <joint name="pod_fabric_base_pod_shelf_b_joint" type="fixed">
    <origin xyz="0 0 0.22225"/>
    <parent link="pod_fabric_base"/>
    <child link="pod_shelf_b"/>
  </joint>
  <link name="pod_shelf_c"/>
  <link name="pod_bin_1c"/>
  <link name="pod_bin_1c_bottom">
    <inertial>
      <mass value="0.01"/>
      <inertia ixx="0.0002835" ixy="0.0" ixz="0.0" iyy="0.0002835" iyz="0.0" izz="0.000324"/>
    </inertial>
    <visual>
      <origin xyz="0.1143 0.07619999999999999 -0.0005"/>
      <geometry>
        <box size="0.2286 0.15239999999999998 0.001"/>
      </geometry>
      <material name="yellow_fabric"/>
    </visual>
    <collision>
      <origin xyz="0.1143 0.07619999999999999 -0.0005"/>
      <geometry>
        <box size="0.2286 0.15239999999999998 0.001"/>
      </geometry>
    </collision>
  </link>
  <link name="pod_bin_1c_left">
    <inertial>
      <mass value="0.01"/>
      <inertia ixx="0.0002835" ixy="0.0" ixz="0.0" iyy="0.0002835" iyz="0.0" izz="0.000324"/>
    </inertial>
    <visual>
      <origin xyz="0.07619999999999999 0.09525 -0.0005"/>
      <geometry>
        <box size="0.15239999999999998 0.1905 0.001"/>
      </geometry>
      <material name="yellow_fabric"/>
    </visual>
    <collision>
      <origin xyz="0.07619999999999999 0.09525 -0.0005"/>
      <geometry>
        <box size="0.15239999999999998 0.1905 0.001"/>
      </geometry>
    </collision>
  </link>
  <link name="pod_bin_1c_right">
    <inertial>
      <mass value="0.01"/>
      <inertia ixx="0.0002835" ixy="0.0" ixz="0.0" iyy="0.0002835" iyz="0.0" izz="0.000324"/>
    </inertial>
    <visual>
      <origin xyz="0.07619999999999999 0.09525 -0.0005"/>
      <geometry>
        <box size="0.15239999999999998 0.1905 0.001"/>
      </geometry>
      <material name="yellow_fabric"/>
    </visual>
    <collision>
      <origin xyz="0.07619999999999999 0.09525 -0.0005"/>
      <geometry>
        <box size="0.15239999999999998 0.1905 0.001"/>
      </geometry>
    </collision>
  </link>
  <link name="pod_bin_1c_top">
    <inertial>
      <mass value="0.01"/>
      <inertia ixx="0.0002835" ixy="0.0" ixz="0.0" iyy="0.0002835" iyz="0.0" izz="0.000324"/>
    </inertial>
    <visual>
      <origin xyz="0.1143 0.07619999999999999 -0.0005"/>
      <geometry>
        <box size="0.2286 0.15239999999999998 0.001"/>
      </geometry>
      <material name="yellow_fabric"/>
    </visual>
    <collision>
      <origin xyz="0.1143 0.07619999999999999 -0.0005"/>
      <geometry>
        <box size="0.2286 0.15239999999999998 0.001"/>
      </geometry>
    </collision>
  </link>
  <link name="pod_bin_1c_back">
    <inertial>
      <mass value="0.01"/>
      <inertia ixx="0.0002835" ixy="0.0" ixz="0.0" iyy="0.0002835" iyz="0.0" izz="0.000324"/>
    </inertial>
    <visual>
      <origin xyz="0.1143 0.09525 -0.0005"/>
      <geometry>
        <box size="0.2286 0.1905 0.001"/>
      </geometry>
      <material name="yellow_fabric"/>
    </visual>
    <collision>
      <origin xyz="0.1143 0.09525 -0.0005"/>
      <geometry>
        <box size="0.2286 0.1905 0.001"/>
      </geometry>
    </collision>
  </link>
  <link name="pod_bin_1c_flap">
    <inertial>
      <mass value="0.01"/>
      <inertia ixx="0.0002835" ixy="0.0" ixz="0.0" iyy="0.0002835" iyz="0.0" izz="0.000324"/>
    </inertial>
    <visual>
      <origin xyz="0.1143 0.0127 -0.0005"/>
      <geometry>
        <box size="0.2286 0.0254 0.001"/>
      </geometry>
      <material name="yellow_fabric"/>
    </visual>
    <collision>
      <origin xyz="0.1143 0.0127 -0.0005"/>
      <geometry>
        <box size="0.2286 0.0254 0.001"/>
      </geometry>
    </collision>
  </link>
  <joint name="pod_bin_1c_pod_bin_1c_bottom" type="fixed">
    <parent link="pod_bin_1c"/>
    <child link="pod_bin_1c_bottom"/>
  </joint>
  <joint name="pod_bin_1c_pod_bin_1c_left" type="fixed">
    <origin rpy="1.5707963267948966 0 1.5707963267948966 " xyz="0 0 0"/>
    <parent link="pod_bin_1c"/>
    <child link="pod_bin_1c_left"/>
  </joint>
  <joint name="pod_bin_1c_pod_bin_1c_right" type="fixed">
    <origin rpy="1.5707963267948966 0 1.5707963267948966 " xyz="0.2286 0 0"/>
    <parent link="pod_bin_1c"/>
    <child link="pod_bin_1c_right"/>
  </joint>
  <joint name="pod_bin_1c_pod_bin_1c_top" type="fixed">
    <origin rpy="0 0 0" xyz="0 0 0.1905"/>
    <parent link="pod_bin_1c"/>
    <child link="pod_bin_1c_top"/>
  </joint>
  <joint name="pod_bin_1c_pod_bin_1c_back" type="fixed">
    <origin rpy="1.5707963267948966 0 0" xyz="0 0.15239999999999998 0"/>
    <parent link="pod_bin_1c"/>
    <child link="pod_bin_1c_back"/>
  </joint>
  <joint name="pod_bin_1c_pod_bin_1c_flap" type="fixed">
    <origin rpy="1.5707963267948966 0 0" xyz="0 0 0"/>
    <parent link="pod_bin_1c"/>
    <child link="pod_bin_1c_flap"/>
  </joint>
  <joint name="pod_shelf_c_pod_bin_1c_joint" type="fixed">
    <origin xyz="0.0 0 0"/>
    <parent link="pod_shelf_c"/>
    <child link="pod_bin_1c"/>
  </joint>
  <link name="pod_bin_2c"/>
  <link name="pod_bin_2c_bottom">
    <inertial>
      <mass value="0.01"/>
      <inertia ixx="0.0002835" ixy="0.0" ixz="0.0" iyy="0.0002835" iyz="0.0" izz="0.000324"/>
    </inertial>
    <visual>
      <origin xyz="0.1143 0.07619999999999999 -0.0005"/>
      <geometry>
        <box size="0.2286 0.15239999999999998 0.001"/>
      </geometry>
      <material name="yellow_fabric"/>
    </visual>
    <collision>
      <origin xyz="0.1143 0.07619999999999999 -0.0005"/>
      <geometry>
        <box size="0.2286 0.15239999999999998 0.001"/>
      </geometry>
    </collision>
  </link>
  <link name="pod_bin_2c_left">
    <inertial>
      <mass value="0.01"/>
      <inertia ixx="0.0002835" ixy="0.0" ixz="0.0" iyy="0.0002835" iyz="0.0" izz="0.000324"/>
    </inertial>
    <visual>
      <origin xyz="0.07619999999999999 0.09525 -0.0005"/>
      <geometry>
        <box size="0.15239999999999998 0.1905 0.001"/>
      </geometry>
      <material name="yellow_fabric"/>
    </visual>
    <collision>
      <origin xyz="0.07619999999999999 0.09525 -0.0005"/>
      <geometry>
        <box size="0.15239999999999998 0.1905 0.001"/>
      </geometry>
    </collision>
  </link>
  <link name="pod_bin_2c_right">
    <inertial>
      <mass value="0.01"/>
      <inertia ixx="0.0002835" ixy="0.0" ixz="0.0" iyy="0.0002835" iyz="0.0" izz="0.000324"/>
    </inertial>
    <visual>
      <origin xyz="0.07619999999999999 0.09525 -0.0005"/>
      <geometry>
        <box size="0.15239999999999998 0.1905 0.001"/>
      </geometry>
      <material name="yellow_fabric"/>
    </visual>
    <collision>
      <origin xyz="0.07619999999999999 0.09525 -0.0005"/>
      <geometry>
        <box size="0.15239999999999998 0.1905 0.001"/>
      </geometry>
    </collision>
  </link>
  <link name="pod_bin_2c_top">
    <inertial>
      <mass value="0.01"/>
      <inertia ixx="0.0002835" ixy="0.0" ixz="0.0" iyy="0.0002835" iyz="0.0" izz="0.000324"/>
    </inertial>
    <visual>
      <origin xyz="0.1143 0.07619999999999999 -0.0005"/>
      <geometry>
        <box size="0.2286 0.15239999999999998 0.001"/>
      </geometry>
      <material name="yellow_fabric"/>
    </visual>
    <collision>
      <origin xyz="0.1143 0.07619999999999999 -0.0005"/>
      <geometry>
        <box size="0.2286 0.15239999999999998 0.001"/>
      </geometry>
    </collision>
  </link>
  <link name="pod_bin_2c_back">
    <inertial>
      <mass value="0.01"/>
      <inertia ixx="0.0002835" ixy="0.0" ixz="0.0" iyy="0.0002835" iyz="0.0" izz="0.000324"/>
    </inertial>
    <visual>
      <origin xyz="0.1143 0.09525 -0.0005"/>
      <geometry>
        <box size="0.2286 0.1905 0.001"/>
      </geometry>
      <material name="yellow_fabric"/>
    </visual>
    <collision>
      <origin xyz="0.1143 0.09525 -0.0005"/>
      <geometry>
        <box size="0.2286 0.1905 0.001"/>
      </geometry>
    </collision>
  </link>
  <link name="pod_bin_2c_flap">
    <inertial>
      <mass value="0.01"/>
      <inertia ixx="0.0002835" ixy="0.0" ixz="0.0" iyy="0.0002835" iyz="0.0" izz="0.000324"/>
    </inertial>
    <visual>
      <origin xyz="0.1143 0.0127 -0.0005"/>
      <geometry>
        <box size="0.2286 0.0254 0.001"/>
      </geometry>
      <material name="yellow_fabric"/>
    </visual>
    <collision>
      <origin xyz="0.1143 0.0127 -0.0005"/>
      <geometry>
        <box size="0.2286 0.0254 0.001"/>
      </geometry>
    </collision>
  </link>
  <joint name="pod_bin_2c_pod_bin_2c_bottom" type="fixed">
    <parent link="pod_bin_2c"/>
    <child link="pod_bin_2c_bottom"/>
  </joint>
  <joint name="pod_bin_2c_pod_bin_2c_left" type="fixed">
    <origin rpy="1.5707963267948966 0 1.5707963267948966 " xyz="0 0 0"/>
    <parent link="pod_bin_2c"/>
    <child link="pod_bin_2c_left"/>
  </joint>
  <joint name="pod_bin_2c_pod_bin_2c_right" type="fixed">
    <origin rpy="1.5707963267948966 0 1.5707963267948966 " xyz="0.2286 0 0"/>
    <parent link="pod_bin_2c"/>
    <child link="pod_bin_2c_right"/>
  </joint>
  <joint name="pod_bin_2c_pod_bin_2c_top" type="fixed">
    <origin rpy="0 0 0" xyz="0 0 0.1905"/>
    <parent link="pod_bin_2c"/>
    <child link="pod_bin_2c_top"/>
  </joint>
  <joint name="pod_bin_2c_pod_bin_2c_back" type="fixed">
    <origin rpy="1.5707963267948966 0 0" xyz="0 0.15239999999999998 0"/>
    <parent link="pod_bin_2c"/>
    <child link="pod_bin_2c_back"/>
  </joint>
  <joint name="pod_bin_2c_pod_bin_2c_flap" type="fixed">
    <origin rpy="1.5707963267948966 0 0" xyz="0 0 0"/>
    <parent link="pod_bin_2c"/>
    <child link="pod_bin_2c_flap"/>
  </joint>
  <joint name="pod_shelf_c_pod_bin_2c_joint" type="fixed">
    <origin xyz="0.2286 0 0"/>
    <parent link="pod_shelf_c"/>
    <child link="pod_bin_2c"/>
  </joint>
  <link name="pod_bin_3c"/>
  <link name="pod_bin_3c_bottom">
    <inertial>
      <mass value="0.01"/>
      <inertia ixx="0.0002835" ixy="0.0" ixz="0.0" iyy="0.0002835" iyz="0.0" izz="0.000324"/>
    </inertial>
    <visual>
      <origin xyz="0.1143 0.07619999999999999 -0.0005"/>
      <geometry>
        <box size="0.2286 0.15239999999999998 0.001"/>
      </geometry>
      <material name="yellow_fabric"/>
    </visual>
    <collision>
      <origin xyz="0.1143 0.07619999999999999 -0.0005"/>
      <geometry>
        <box size="0.2286 0.15239999999999998 0.001"/>
      </geometry>
    </collision>
  </link>
  <link name="pod_bin_3c_left">
    <inertial>
      <mass value="0.01"/>
      <inertia ixx="0.0002835" ixy="0.0" ixz="0.0" iyy="0.0002835" iyz="0.0" izz="0.000324"/>
    </inertial>
    <visual>
      <origin xyz="0.07619999999999999 0.09525 -0.0005"/>
      <geometry>
        <box size="0.15239999999999998 0.1905 0.001"/>
      </geometry>
      <material name="yellow_fabric"/>
    </visual>
    <collision>
      <origin xyz="0.07619999999999999 0.09525 -0.0005"/>
      <geometry>
        <box size="0.15239999999999998 0.1905 0.001"/>
      </geometry>
    </collision>
  </link>
  <link name="pod_bin_3c_right">
    <inertial>
      <mass value="0.01"/>
      <inertia ixx="0.0002835" ixy="0.0" ixz="0.0" iyy="0.0002835" iyz="0.0" izz="0.000324"/>
    </inertial>
    <visual>
      <origin xyz="0.07619999999999999 0.09525 -0.0005"/>
      <geometry>
        <box size="0.15239999999999998 0.1905 0.001"/>
      </geometry>
      <material name="yellow_fabric"/>
    </visual>
    <collision>
      <origin xyz="0.07619999999999999 0.09525 -0.0005"/>
      <geometry>
        <box size="0.15239999999999998 0.1905 0.001"/>
      </geometry>
    </collision>
  </link>
  <link name="pod_bin_3c_top">
    <inertial>
      <mass value="0.01"/>
      <inertia ixx="0.0002835" ixy="0.0" ixz="0.0" iyy="0.0002835" iyz="0.0" izz="0.000324"/>
    </inertial>
    <visual>
      <origin xyz="0.1143 0.07619999999999999 -0.0005"/>
      <geometry>
        <box size="0.2286 0.15239999999999998 0.001"/>
      </geometry>
      <material name="yellow_fabric"/>
    </visual>
    <collision>
      <origin xyz="0.1143 0.07619999999999999 -0.0005"/>
      <geometry>
        <box size="0.2286 0.15239999999999998 0.001"/>
      </geometry>
    </collision>
  </link>
  <link name="pod_bin_3c_back">
    <inertial>
      <mass value="0.01"/>
      <inertia ixx="0.0002835" ixy="0.0" ixz="0.0" iyy="0.0002835" iyz="0.0" izz="0.000324"/>
    </inertial>
    <visual>
      <origin xyz="0.1143 0.09525 -0.0005"/>
      <geometry>
        <box size="0.2286 0.1905 0.001"/>
      </geometry>
      <material name="yellow_fabric"/>
    </visual>
    <collision>
      <origin xyz="0.1143 0.09525 -0.0005"/>
      <geometry>
        <box size="0.2286 0.1905 0.001"/>
      </geometry>
    </collision>
  </link>
  <link name="pod_bin_3c_flap">
    <inertial>
      <mass value="0.01"/>
      <inertia ixx="0.0002835" ixy="0.0" ixz="0.0" iyy="0.0002835" iyz="0.0" izz="0.000324"/>
    </inertial>
    <visual>
      <origin xyz="0.1143 0.0127 -0.0005"/>
      <geometry>
        <box size="0.2286 0.0254 0.001"/>
      </geometry>
      <material name="yellow_fabric"/>
    </visual>
    <collision>
      <origin xyz="0.1143 0.0127 -0.0005"/>
      <geometry>
        <box size="0.2286 0.0254 0.001"/>
      </geometry>
    </collision>
  </link>
  <joint name="pod_bin_3c_pod_bin_3c_bottom" type="fixed">
    <parent link="pod_bin_3c"/>
    <child link="pod_bin_3c_bottom"/>
  </joint>
  <joint name="pod_bin_3c_pod_bin_3c_left" type="fixed">
    <origin rpy="1.5707963267948966 0 1.5707963267948966 " xyz="0 0 0"/>
    <parent link="pod_bin_3c"/>
    <child link="pod_bin_3c_left"/>
  </joint>
  <joint name="pod_bin_3c_pod_bin_3c_right" type="fixed">
    <origin rpy="1.5707963267948966 0 1.5707963267948966 " xyz="0.2286 0 0"/>
    <parent link="pod_bin_3c"/>
    <child link="pod_bin_3c_right"/>
  </joint>
  <joint name="pod_bin_3c_pod_bin_3c_top" type="fixed">
    <origin rpy="0 0 0" xyz="0 0 0.1905"/>
    <parent link="pod_bin_3c"/>
    <child link="pod_bin_3c_top"/>
  </joint>
  <joint name="pod_bin_3c_pod_bin_3c_back" type="fixed">
    <origin rpy="1.5707963267948966 0 0" xyz="0 0.15239999999999998 0"/>
    <parent link="pod_bin_3c"/>
    <child link="pod_bin_3c_back"/>
  </joint>
  <joint name="pod_bin_3c_pod_bin_3c_flap" type="fixed">
    <origin rpy="1.5707963267948966 0 0" xyz="0 0 0"/>
    <parent link="pod_bin_3c"/>
    <child link="pod_bin_3c_flap"/>
  </joint>
  <joint name="pod_shelf_c_pod_bin_3c_joint" type="fixed">
    <origin xyz="0.4572 0 0"/>
    <parent link="pod_shelf_c"/>
    <child link="pod_bin_3c"/>
  </joint>
  <link name="pod_bin_4c"/>
  <link name="pod_bin_4c_bottom">
    <inertial>
      <mass value="0.01"/>
      <inertia ixx="0.0002835" ixy="0.0" ixz="0.0" iyy="0.0002835" iyz="0.0" izz="0.000324"/>
    </inertial>
    <visual>
      <origin xyz="0.1143 0.07619999999999999 -0.0005"/>
      <geometry>
        <box size="0.2286 0.15239999999999998 0.001"/>
      </geometry>
      <material name="yellow_fabric"/>
    </visual>
    <collision>
      <origin xyz="0.1143 0.07619999999999999 -0.0005"/>
      <geometry>
        <box size="0.2286 0.15239999999999998 0.001"/>
      </geometry>
    </collision>
  </link>
  <link name="pod_bin_4c_left">
    <inertial>
      <mass value="0.01"/>
      <inertia ixx="0.0002835" ixy="0.0" ixz="0.0" iyy="0.0002835" iyz="0.0" izz="0.000324"/>
    </inertial>
    <visual>
      <origin xyz="0.07619999999999999 0.09525 -0.0005"/>
      <geometry>
        <box size="0.15239999999999998 0.1905 0.001"/>
      </geometry>
      <material name="yellow_fabric"/>
    </visual>
    <collision>
      <origin xyz="0.07619999999999999 0.09525 -0.0005"/>
      <geometry>
        <box size="0.15239999999999998 0.1905 0.001"/>
      </geometry>
    </collision>
  </link>
  <link name="pod_bin_4c_right">
    <inertial>
      <mass value="0.01"/>
      <inertia ixx="0.0002835" ixy="0.0" ixz="0.0" iyy="0.0002835" iyz="0.0" izz="0.000324"/>
    </inertial>
    <visual>
      <origin xyz="0.07619999999999999 0.09525 -0.0005"/>
      <geometry>
        <box size="0.15239999999999998 0.1905 0.001"/>
      </geometry>
      <material name="yellow_fabric"/>
    </visual>
    <collision>
      <origin xyz="0.07619999999999999 0.09525 -0.0005"/>
      <geometry>
        <box size="0.15239999999999998 0.1905 0.001"/>
      </geometry>
    </collision>
  </link>
  <link name="pod_bin_4c_top">
    <inertial>
      <mass value="0.01"/>
      <inertia ixx="0.0002835" ixy="0.0" ixz="0.0" iyy="0.0002835" iyz="0.0" izz="0.000324"/>
    </inertial>
    <visual>
      <origin xyz="0.1143 0.07619999999999999 -0.0005"/>
      <geometry>
        <box size="0.2286 0.15239999999999998 0.001"/>
      </geometry>
      <material name="yellow_fabric"/>
    </visual>
    <collision>
      <origin xyz="0.1143 0.07619999999999999 -0.0005"/>
      <geometry>
        <box size="0.2286 0.15239999999999998 0.001"/>
      </geometry>
    </collision>
  </link>
  <link name="pod_bin_4c_back">
    <inertial>
      <mass value="0.01"/>
      <inertia ixx="0.0002835" ixy="0.0" ixz="0.0" iyy="0.0002835" iyz="0.0" izz="0.000324"/>
    </inertial>
    <visual>
      <origin xyz="0.1143 0.09525 -0.0005"/>
      <geometry>
        <box size="0.2286 0.1905 0.001"/>
      </geometry>
      <material name="yellow_fabric"/>
    </visual>
    <collision>
      <origin xyz="0.1143 0.09525 -0.0005"/>
      <geometry>
        <box size="0.2286 0.1905 0.001"/>
      </geometry>
    </collision>
  </link>
  <link name="pod_bin_4c_flap">
    <inertial>
      <mass value="0.01"/>
      <inertia ixx="0.0002835" ixy="0.0" ixz="0.0" iyy="0.0002835" iyz="0.0" izz="0.000324"/>
    </inertial>
    <visual>
      <origin xyz="0.1143 0.0127 -0.0005"/>
      <geometry>
        <box size="0.2286 0.0254 0.001"/>
      </geometry>
      <material name="yellow_fabric"/>
    </visual>
    <collision>
      <origin xyz="0.1143 0.0127 -0.0005"/>
      <geometry>
        <box size="0.2286 0.0254 0.001"/>
      </geometry>
    </collision>
  </link>
  <joint name="pod_bin_4c_pod_bin_4c_bottom" type="fixed">
    <parent link="pod_bin_4c"/>
    <child link="pod_bin_4c_bottom"/>
  </joint>
  <joint name="pod_bin_4c_pod_bin_4c_left" type="fixed">
    <origin rpy="1.5707963267948966 0 1.5707963267948966 " xyz="0 0 0"/>
    <parent link="pod_bin_4c"/>
    <child link="pod_bin_4c_left"/>
  </joint>
  <joint name="pod_bin_4c_pod_bin_4c_right" type="fixed">
    <origin rpy="1.5707963267948966 0 1.5707963267948966 " xyz="0.2286 0 0"/>
    <parent link="pod_bin_4c"/>
    <child link="pod_bin_4c_right"/>
  </joint>
  <joint name="pod_bin_4c_pod_bin_4c_top" type="fixed">
    <origin rpy="0 0 0" xyz="0 0 0.1905"/>
    <parent link="pod_bin_4c"/>
    <child link="pod_bin_4c_top"/>
  </joint>
  <joint name="pod_bin_4c_pod_bin_4c_back" type="fixed">
    <origin rpy="1.5707963267948966 0 0" xyz="0 0.15239999999999998 0"/>
    <parent link="pod_bin_4c"/>
    <child link="pod_bin_4c_back"/>
  </joint>
  <joint name="pod_bin_4c_pod_bin_4c_flap" type="fixed">
    <origin rpy="1.5707963267948966 0 0" xyz="0 0 0"/>
    <parent link="pod_bin_4c"/>
    <child link="pod_bin_4c_flap"/>
  </joint>
  <joint name="pod_shelf_c_pod_bin_4c_joint" type="fixed">
    <origin xyz="0.6858 0 0"/>
    <parent link="pod_shelf_c"/>
    <child link="pod_bin_4c"/>
  </joint>
  <joint name="pod_fabric_base_pod_shelf_c_joint" type="fixed">
    <origin xyz="0 0 0.36195"/>
    <parent link="pod_fabric_base"/>
    <child link="pod_shelf_c"/>
  </joint>
  <link name="pod_shelf_d"/>
  <link name="pod_bin_1d"/>
  <link name="pod_bin_1d_bottom">
    <inertial>
      <mass value="0.01"/>
      <inertia ixx="0.0002835" ixy="0.0" ixz="0.0" iyy="0.0002835" iyz="0.0" izz="0.000324"/>
    </inertial>
    <visual>
      <origin xyz="0.1143 0.07619999999999999 -0.0005"/>
      <geometry>
        <box size="0.2286 0.15239999999999998 0.001"/>
      </geometry>
      <material name="yellow_fabric"/>
    </visual>
    <collision>
      <origin xyz="0.1143 0.07619999999999999 -0.0005"/>
      <geometry>
        <box size="0.2286 0.15239999999999998 0.001"/>
      </geometry>
    </collision>
  </link>
  <link name="pod_bin_1d_left">
    <inertial>
      <mass value="0.01"/>
      <inertia ixx="0.0002835" ixy="0.0" ixz="0.0" iyy="0.0002835" iyz="0.0" izz="0.000324"/>
    </inertial>
    <visual>
      <origin xyz="0.07619999999999999 0.07619999999999999 -0.0005"/>
      <geometry>
        <box size="0.15239999999999998 0.15239999999999998 0.001"/>
      </geometry>
      <material name="yellow_fabric"/>
    </visual>
    <collision>
      <origin xyz="0.07619999999999999 0.07619999999999999 -0.0005"/>
      <geometry>
        <box size="0.15239999999999998 0.15239999999999998 0.001"/>
      </geometry>
    </collision>
  </link>
  <link name="pod_bin_1d_right">
    <inertial>
      <mass value="0.01"/>
      <inertia ixx="0.0002835" ixy="0.0" ixz="0.0" iyy="0.0002835" iyz="0.0" izz="0.000324"/>
    </inertial>
    <visual>
      <origin xyz="0.07619999999999999 0.07619999999999999 -0.0005"/>
      <geometry>
        <box size="0.15239999999999998 0.15239999999999998 0.001"/>
      </geometry>
      <material name="yellow_fabric"/>
    </visual>
    <collision>
      <origin xyz="0.07619999999999999 0.07619999999999999 -0.0005"/>
      <geometry>
        <box size="0.15239999999999998 0.15239999999999998 0.001"/>
      </geometry>
    </collision>
  </link>
  <link name="pod_bin_1d_top">
    <inertial>
      <mass value="0.01"/>
      <inertia ixx="0.0002835" ixy="0.0" ixz="0.0" iyy="0.0002835" iyz="0.0" izz="0.000324"/>
    </inertial>
    <visual>
      <origin xyz="0.1143 0.07619999999999999 -0.0005"/>
      <geometry>
        <box size="0.2286 0.15239999999999998 0.001"/>
      </geometry>
      <material name="yellow_fabric"/>
    </visual>
    <collision>
      <origin xyz="0.1143 0.07619999999999999 -0.0005"/>
      <geometry>
        <box size="0.2286 0.15239999999999998 0.001"/>
      </geometry>
    </collision>
  </link>
  <link name="pod_bin_1d_back">
    <inertial>
      <mass value="0.01"/>
      <inertia ixx="0.0002835" ixy="0.0" ixz="0.0" iyy="0.0002835" iyz="0.0" izz="0.000324"/>
    </inertial>
    <visual>
      <origin xyz="0.1143 0.07619999999999999 -0.0005"/>
      <geometry>
        <box size="0.2286 0.15239999999999998 0.001"/>
      </geometry>
      <material name="yellow_fabric"/>
    </visual>
    <collision>
      <origin xyz="0.1143 0.07619999999999999 -0.0005"/>
      <geometry>
        <box size="0.2286 0.15239999999999998 0.001"/>
      </geometry>
    </collision>
  </link>
  <link name="pod_bin_1d_flap">
    <inertial>
      <mass value="0.01"/>
      <inertia ixx="0.0002835" ixy="0.0" ixz="0.0" iyy="0.0002835" iyz="0.0" izz="0.000324"/>
    </inertial>
    <visual>
      <origin xyz="0.1143 0.0127 -0.0005"/>
      <geometry>
        <box size="0.2286 0.0254 0.001"/>
      </geometry>
      <material name="yellow_fabric"/>
    </visual>
    <collision>
      <origin xyz="0.1143 0.0127 -0.0005"/>
      <geometry>
        <box size="0.2286 0.0254 0.001"/>
      </geometry>
    </collision>
  </link>
  <joint name="pod_bin_1d_pod_bin_1d_bottom" type="fixed">
    <parent link="pod_bin_1d"/>
    <child link="pod_bin_1d_bottom"/>
  </joint>
  <joint name="pod_bin_1d_pod_bin_1d_left" type="fixed">
    <origin rpy="1.5707963267948966 0 1.5707963267948966 " xyz="0 0 0"/>
    <parent link="pod_bin_1d"/>
    <child link="pod_bin_1d_left"/>
  </joint>
  <joint name="pod_bin_1d_pod_bin_1d_right" type="fixed">
    <origin rpy="1.5707963267948966 0 1.5707963267948966 " xyz="0.2286 0 0"/>
    <parent link="pod_bin_1d"/>
    <child link="pod_bin_1d_right"/>
  </joint>
  <joint name="pod_bin_1d_pod_bin_1d_top" type="fixed">
    <origin rpy="0 0 0" xyz="0 0 0.15239999999999998"/>
    <parent link="pod_bin_1d"/>
    <child link="pod_bin_1d_top"/>
  </joint>
  <joint name="pod_bin_1d_pod_bin_1d_back" type="fixed">
    <origin rpy="1.5707963267948966 0 0" xyz="0 0.15239999999999998 0"/>
    <parent link="pod_bin_1d"/>
    <child link="pod_bin_1d_back"/>
  </joint>
  <joint name="pod_bin_1d_pod_bin_1d_flap" type="fixed">
    <origin rpy="1.5707963267948966 0 0" xyz="0 0 0"/>
    <parent link="pod_bin_1d"/>
    <child link="pod_bin_1d_flap"/>
  </joint>
  <joint name="pod_shelf_d_pod_bin_1d_joint" type="fixed">
    <origin xyz="0.0 0 0"/>
    <parent link="pod_shelf_d"/>
    <child link="pod_bin_1d"/>
  </joint>
  <link name="pod_bin_2d"/>
  <link name="pod_bin_2d_bottom">
    <inertial>
      <mass value="0.01"/>
      <inertia ixx="0.0002835" ixy="0.0" ixz="0.0" iyy="0.0002835" iyz="0.0" izz="0.000324"/>
    </inertial>
    <visual>
      <origin xyz="0.1143 0.07619999999999999 -0.0005"/>
      <geometry>
        <box size="0.2286 0.15239999999999998 0.001"/>
      </geometry>
      <material name="yellow_fabric"/>
    </visual>
    <collision>
      <origin xyz="0.1143 0.07619999999999999 -0.0005"/>
      <geometry>
        <box size="0.2286 0.15239999999999998 0.001"/>
      </geometry>
    </collision>
  </link>
  <link name="pod_bin_2d_left">
    <inertial>
      <mass value="0.01"/>
      <inertia ixx="0.0002835" ixy="0.0" ixz="0.0" iyy="0.0002835" iyz="0.0" izz="0.000324"/>
    </inertial>
    <visual>
      <origin xyz="0.07619999999999999 0.07619999999999999 -0.0005"/>
      <geometry>
        <box size="0.15239999999999998 0.15239999999999998 0.001"/>
      </geometry>
      <material name="yellow_fabric"/>
    </visual>
    <collision>
      <origin xyz="0.07619999999999999 0.07619999999999999 -0.0005"/>
      <geometry>
        <box size="0.15239999999999998 0.15239999999999998 0.001"/>
      </geometry>
    </collision>
  </link>
  <link name="pod_bin_2d_right">
    <inertial>
      <mass value="0.01"/>
      <inertia ixx="0.0002835" ixy="0.0" ixz="0.0" iyy="0.0002835" iyz="0.0" izz="0.000324"/>
    </inertial>
    <visual>
      <origin xyz="0.07619999999999999 0.07619999999999999 -0.0005"/>
      <geometry>
        <box size="0.15239999999999998 0.15239999999999998 0.001"/>
      </geometry>
      <material name="yellow_fabric"/>
    </visual>
    <collision>
      <origin xyz="0.07619999999999999 0.07619999999999999 -0.0005"/>
      <geometry>
        <box size="0.15239999999999998 0.15239999999999998 0.001"/>
      </geometry>
    </collision>
  </link>
  <link name="pod_bin_2d_top">
    <inertial>
      <mass value="0.01"/>
      <inertia ixx="0.0002835" ixy="0.0" ixz="0.0" iyy="0.0002835" iyz="0.0" izz="0.000324"/>
    </inertial>
    <visual>
      <origin xyz="0.1143 0.07619999999999999 -0.0005"/>
      <geometry>
        <box size="0.2286 0.15239999999999998 0.001"/>
      </geometry>
      <material name="yellow_fabric"/>
    </visual>
    <collision>
      <origin xyz="0.1143 0.07619999999999999 -0.0005"/>
      <geometry>
        <box size="0.2286 0.15239999999999998 0.001"/>
      </geometry>
    </collision>
  </link>
  <link name="pod_bin_2d_back">
    <inertial>
      <mass value="0.01"/>
      <inertia ixx="0.0002835" ixy="0.0" ixz="0.0" iyy="0.0002835" iyz="0.0" izz="0.000324"/>
    </inertial>
    <visual>
      <origin xyz="0.1143 0.07619999999999999 -0.0005"/>
      <geometry>
        <box size="0.2286 0.15239999999999998 0.001"/>
      </geometry>
      <material name="yellow_fabric"/>
    </visual>
    <collision>
      <origin xyz="0.1143 0.07619999999999999 -0.0005"/>
      <geometry>
        <box size="0.2286 0.15239999999999998 0.001"/>
      </geometry>
    </collision>
  </link>
  <link name="pod_bin_2d_flap">
    <inertial>
      <mass value="0.01"/>
      <inertia ixx="0.0002835" ixy="0.0" ixz="0.0" iyy="0.0002835" iyz="0.0" izz="0.000324"/>
    </inertial>
    <visual>
      <origin xyz="0.1143 0.0127 -0.0005"/>
      <geometry>
        <box size="0.2286 0.0254 0.001"/>
      </geometry>
      <material name="yellow_fabric"/>
    </visual>
    <collision>
      <origin xyz="0.1143 0.0127 -0.0005"/>
      <geometry>
        <box size="0.2286 0.0254 0.001"/>
      </geometry>
    </collision>
  </link>
  <joint name="pod_bin_2d_pod_bin_2d_bottom" type="fixed">
    <parent link="pod_bin_2d"/>
    <child link="pod_bin_2d_bottom"/>
  </joint>
  <joint name="pod_bin_2d_pod_bin_2d_left" type="fixed">
    <origin rpy="1.5707963267948966 0 1.5707963267948966 " xyz="0 0 0"/>
    <parent link="pod_bin_2d"/>
    <child link="pod_bin_2d_left"/>
  </joint>
  <joint name="pod_bin_2d_pod_bin_2d_right" type="fixed">
    <origin rpy="1.5707963267948966 0 1.5707963267948966 " xyz="0.2286 0 0"/>
    <parent link="pod_bin_2d"/>
    <child link="pod_bin_2d_right"/>
  </joint>
  <joint name="pod_bin_2d_pod_bin_2d_top" type="fixed">
    <origin rpy="0 0 0" xyz="0 0 0.15239999999999998"/>
    <parent link="pod_bin_2d"/>
    <child link="pod_bin_2d_top"/>
  </joint>
  <joint name="pod_bin_2d_pod_bin_2d_back" type="fixed">
    <origin rpy="1.5707963267948966 0 0" xyz="0 0.15239999999999998 0"/>
    <parent link="pod_bin_2d"/>
    <child link="pod_bin_2d_back"/>
  </joint>
  <joint name="pod_bin_2d_pod_bin_2d_flap" type="fixed">
    <origin rpy="1.5707963267948966 0 0" xyz="0 0 0"/>
    <parent link="pod_bin_2d"/>
    <child link="pod_bin_2d_flap"/>
  </joint>
  <joint name="pod_shelf_d_pod_bin_2d_joint" type="fixed">
    <origin xyz="0.2286 0 0"/>
    <parent link="pod_shelf_d"/>
    <child link="pod_bin_2d"/>
  </joint>
  <link name="pod_bin_3d"/>
  <link name="pod_bin_3d_bottom">
    <inertial>
      <mass value="0.01"/>
      <inertia ixx="0.0002835" ixy="0.0" ixz="0.0" iyy="0.0002835" iyz="0.0" izz="0.000324"/>
    </inertial>
    <visual>
      <origin xyz="0.1143 0.07619999999999999 -0.0005"/>
      <geometry>
        <box size="0.2286 0.15239999999999998 0.001"/>
      </geometry>
      <material name="yellow_fabric"/>
    </visual>
    <collision>
      <origin xyz="0.1143 0.07619999999999999 -0.0005"/>
      <geometry>
        <box size="0.2286 0.15239999999999998 0.001"/>
      </geometry>
    </collision>
  </link>
  <link name="pod_bin_3d_left">
    <inertial>
      <mass value="0.01"/>
      <inertia ixx="0.0002835" ixy="0.0" ixz="0.0" iyy="0.0002835" iyz="0.0" izz="0.000324"/>
    </inertial>
    <visual>
      <origin xyz="0.07619999999999999 0.07619999999999999 -0.0005"/>
      <geometry>
        <box size="0.15239999999999998 0.15239999999999998 0.001"/>
      </geometry>
      <material name="yellow_fabric"/>
    </visual>
    <collision>
      <origin xyz="0.07619999999999999 0.07619999999999999 -0.0005"/>
      <geometry>
        <box size="0.15239999999999998 0.15239999999999998 0.001"/>
      </geometry>
    </collision>
  </link>
  <link name="pod_bin_3d_right">
    <inertial>
      <mass value="0.01"/>
      <inertia ixx="0.0002835" ixy="0.0" ixz="0.0" iyy="0.0002835" iyz="0.0" izz="0.000324"/>
    </inertial>
    <visual>
      <origin xyz="0.07619999999999999 0.07619999999999999 -0.0005"/>
      <geometry>
        <box size="0.15239999999999998 0.15239999999999998 0.001"/>
      </geometry>
      <material name="yellow_fabric"/>
    </visual>
    <collision>
      <origin xyz="0.07619999999999999 0.07619999999999999 -0.0005"/>
      <geometry>
        <box size="0.15239999999999998 0.15239999999999998 0.001"/>
      </geometry>
    </collision>
  </link>
  <link name="pod_bin_3d_top">
    <inertial>
      <mass value="0.01"/>
      <inertia ixx="0.0002835" ixy="0.0" ixz="0.0" iyy="0.0002835" iyz="0.0" izz="0.000324"/>
    </inertial>
    <visual>
      <origin xyz="0.1143 0.07619999999999999 -0.0005"/>
      <geometry>
        <box size="0.2286 0.15239999999999998 0.001"/>
      </geometry>
      <material name="yellow_fabric"/>
    </visual>
    <collision>
      <origin xyz="0.1143 0.07619999999999999 -0.0005"/>
      <geometry>
        <box size="0.2286 0.15239999999999998 0.001"/>
      </geometry>
    </collision>
  </link>
  <link name="pod_bin_3d_back">
    <inertial>
      <mass value="0.01"/>
      <inertia ixx="0.0002835" ixy="0.0" ixz="0.0" iyy="0.0002835" iyz="0.0" izz="0.000324"/>
    </inertial>
    <visual>
      <origin xyz="0.1143 0.07619999999999999 -0.0005"/>
      <geometry>
        <box size="0.2286 0.15239999999999998 0.001"/>
      </geometry>
      <material name="yellow_fabric"/>
    </visual>
    <collision>
      <origin xyz="0.1143 0.07619999999999999 -0.0005"/>
      <geometry>
        <box size="0.2286 0.15239999999999998 0.001"/>
      </geometry>
    </collision>
  </link>
  <link name="pod_bin_3d_flap">
    <inertial>
      <mass value="0.01"/>
      <inertia ixx="0.0002835" ixy="0.0" ixz="0.0" iyy="0.0002835" iyz="0.0" izz="0.000324"/>
    </inertial>
    <visual>
      <origin xyz="0.1143 0.0127 -0.0005"/>
      <geometry>
        <box size="0.2286 0.0254 0.001"/>
      </geometry>
      <material name="yellow_fabric"/>
    </visual>
    <collision>
      <origin xyz="0.1143 0.0127 -0.0005"/>
      <geometry>
        <box size="0.2286 0.0254 0.001"/>
      </geometry>
    </collision>
  </link>
  <joint name="pod_bin_3d_pod_bin_3d_bottom" type="fixed">
    <parent link="pod_bin_3d"/>
    <child link="pod_bin_3d_bottom"/>
  </joint>
  <joint name="pod_bin_3d_pod_bin_3d_left" type="fixed">
    <origin rpy="1.5707963267948966 0 1.5707963267948966 " xyz="0 0 0"/>
    <parent link="pod_bin_3d"/>
    <child link="pod_bin_3d_left"/>
  </joint>
  <joint name="pod_bin_3d_pod_bin_3d_right" type="fixed">
    <origin rpy="1.5707963267948966 0 1.5707963267948966 " xyz="0.2286 0 0"/>
    <parent link="pod_bin_3d"/>
    <child link="pod_bin_3d_right"/>
  </joint>
  <joint name="pod_bin_3d_pod_bin_3d_top" type="fixed">
    <origin rpy="0 0 0" xyz="0 0 0.15239999999999998"/>
    <parent link="pod_bin_3d"/>
    <child link="pod_bin_3d_top"/>
  </joint>
  <joint name="pod_bin_3d_pod_bin_3d_back" type="fixed">
    <origin rpy="1.5707963267948966 0 0" xyz="0 0.15239999999999998 0"/>
    <parent link="pod_bin_3d"/>
    <child link="pod_bin_3d_back"/>
  </joint>
  <joint name="pod_bin_3d_pod_bin_3d_flap" type="fixed">
    <origin rpy="1.5707963267948966 0 0" xyz="0 0 0"/>
    <parent link="pod_bin_3d"/>
    <child link="pod_bin_3d_flap"/>
  </joint>
  <joint name="pod_shelf_d_pod_bin_3d_joint" type="fixed">
    <origin xyz="0.4572 0 0"/>
    <parent link="pod_shelf_d"/>
    <child link="pod_bin_3d"/>
  </joint>
  <link name="pod_bin_4d"/>
  <link name="pod_bin_4d_bottom">
    <inertial>
      <mass value="0.01"/>
      <inertia ixx="0.0002835" ixy="0.0" ixz="0.0" iyy="0.0002835" iyz="0.0" izz="0.000324"/>
    </inertial>
    <visual>
      <origin xyz="0.1143 0.07619999999999999 -0.0005"/>
      <geometry>
        <box size="0.2286 0.15239999999999998 0.001"/>
      </geometry>
      <material name="yellow_fabric"/>
    </visual>
    <collision>
      <origin xyz="0.1143 0.07619999999999999 -0.0005"/>
      <geometry>
        <box size="0.2286 0.15239999999999998 0.001"/>
      </geometry>
    </collision>
  </link>
  <link name="pod_bin_4d_left">
    <inertial>
      <mass value="0.01"/>
      <inertia ixx="0.0002835" ixy="0.0" ixz="0.0" iyy="0.0002835" iyz="0.0" izz="0.000324"/>
    </inertial>
    <visual>
      <origin xyz="0.07619999999999999 0.07619999999999999 -0.0005"/>
      <geometry>
        <box size="0.15239999999999998 0.15239999999999998 0.001"/>
      </geometry>
      <material name="yellow_fabric"/>
    </visual>
    <collision>
      <origin xyz="0.07619999999999999 0.07619999999999999 -0.0005"/>
      <geometry>
        <box size="0.15239999999999998 0.15239999999999998 0.001"/>
      </geometry>
    </collision>
  </link>
  <link name="pod_bin_4d_right">
    <inertial>
      <mass value="0.01"/>
      <inertia ixx="0.0002835" ixy="0.0" ixz="0.0" iyy="0.0002835" iyz="0.0" izz="0.000324"/>
    </inertial>
    <visual>
      <origin xyz="0.07619999999999999 0.07619999999999999 -0.0005"/>
      <geometry>
        <box size="0.15239999999999998 0.15239999999999998 0.001"/>
      </geometry>
      <material name="yellow_fabric"/>
    </visual>
    <collision>
      <origin xyz="0.07619999999999999 0.07619999999999999 -0.0005"/>
      <geometry>
        <box size="0.15239999999999998 0.15239999999999998 0.001"/>
      </geometry>
    </collision>
  </link>
  <link name="pod_bin_4d_top">
    <inertial>
      <mass value="0.01"/>
      <inertia ixx="0.0002835" ixy="0.0" ixz="0.0" iyy="0.0002835" iyz="0.0" izz="0.000324"/>
    </inertial>
    <visual>
      <origin xyz="0.1143 0.07619999999999999 -0.0005"/>
      <geometry>
        <box size="0.2286 0.15239999999999998 0.001"/>
      </geometry>
      <material name="yellow_fabric"/>
    </visual>
    <collision>
      <origin xyz="0.1143 0.07619999999999999 -0.0005"/>
      <geometry>
        <box size="0.2286 0.15239999999999998 0.001"/>
      </geometry>
    </collision>
  </link>
  <link name="pod_bin_4d_back">
    <inertial>
      <mass value="0.01"/>
      <inertia ixx="0.0002835" ixy="0.0" ixz="0.0" iyy="0.0002835" iyz="0.0" izz="0.000324"/>
    </inertial>
    <visual>
      <origin xyz="0.1143 0.07619999999999999 -0.0005"/>
      <geometry>
        <box size="0.2286 0.15239999999999998 0.001"/>
      </geometry>
      <material name="yellow_fabric"/>
    </visual>
    <collision>
      <origin xyz="0.1143 0.07619999999999999 -0.0005"/>
      <geometry>
        <box size="0.2286 0.15239999999999998 0.001"/>
      </geometry>
    </collision>
  </link>
  <link name="pod_bin_4d_flap">
    <inertial>
      <mass value="0.01"/>
      <inertia ixx="0.0002835" ixy="0.0" ixz="0.0" iyy="0.0002835" iyz="0.0" izz="0.000324"/>
    </inertial>
    <visual>
      <origin xyz="0.1143 0.0127 -0.0005"/>
      <geometry>
        <box size="0.2286 0.0254 0.001"/>
      </geometry>
      <material name="yellow_fabric"/>
    </visual>
    <collision>
      <origin xyz="0.1143 0.0127 -0.0005"/>
      <geometry>
        <box size="0.2286 0.0254 0.001"/>
      </geometry>
    </collision>
  </link>
  <joint name="pod_bin_4d_pod_bin_4d_bottom" type="fixed">
    <parent link="pod_bin_4d"/>
    <child link="pod_bin_4d_bottom"/>
  </joint>
  <joint name="pod_bin_4d_pod_bin_4d_left" type="fixed">
    <origin rpy="1.5707963267948966 0 1.5707963267948966 " xyz="0 0 0"/>
    <parent link="pod_bin_4d"/>
    <child link="pod_bin_4d_left"/>
  </joint>
  <joint name="pod_bin_4d_pod_bin_4d_right" type="fixed">
    <origin rpy="1.5707963267948966 0 1.5707963267948966 " xyz="0.2286 0 0"/>
    <parent link="pod_bin_4d"/>
    <child link="pod_bin_4d_right"/>
  </joint>
  <joint name="pod_bin_4d_pod_bin_4d_top" type="fixed">
    <origin rpy="0 0 0" xyz="0 0 0.15239999999999998"/>
    <parent link="pod_bin_4d"/>
    <child link="pod_bin_4d_top"/>
  </joint>
  <joint name="pod_bin_4d_pod_bin_4d_back" type="fixed">
    <origin rpy="1.5707963267948966 0 0" xyz="0 0.15239999999999998 0"/>
    <parent link="pod_bin_4d"/>
    <child link="pod_bin_4d_back"/>
  </joint>
  <joint name="pod_bin_4d_pod_bin_4d_flap" type="fixed">
    <origin rpy="1.5707963267948966 0 0" xyz="0 0 0"/>
    <parent link="pod_bin_4d"/>
    <child link="pod_bin_4d_flap"/>
  </joint>
  <joint name="pod_shelf_d_pod_bin_4d_joint" type="fixed">
    <origin xyz="0.6858 0 0"/>
    <parent link="pod_shelf_d"/>
    <child link="pod_bin_4d"/>
  </joint>
  <joint name="pod_fabric_base_pod_shelf_d_joint" type="fixed">
    <origin xyz="0 0 0.55245"/>
    <parent link="pod_fabric_base"/>
    <child link="pod_shelf_d"/>
  </joint>
  <link name="pod_shelf_e"/>
  <link name="pod_bin_1e"/>
  <link name="pod_bin_1e_bottom">
    <inertial>
      <mass value="0.01"/>
      <inertia ixx="0.0002835" ixy="0.0" ixz="0.0" iyy="0.0002835" iyz="0.0" izz="0.000324"/>
    </inertial>
    <visual>
      <origin xyz="0.1143 0.07619999999999999 -0.0005"/>
      <geometry>
        <box size="0.2286 0.15239999999999998 0.001"/>
      </geometry>
      <material name="yellow_fabric"/>
    </visual>
    <collision>
      <origin xyz="0.1143 0.07619999999999999 -0.0005"/>
      <geometry>
        <box size="0.2286 0.15239999999999998 0.001"/>
      </geometry>
    </collision>
  </link>
  <link name="pod_bin_1e_left">
    <inertial>
      <mass value="0.01"/>
      <inertia ixx="0.0002835" ixy="0.0" ixz="0.0" iyy="0.0002835" iyz="0.0" izz="0.000324"/>
    </inertial>
    <visual>
      <origin xyz="0.07619999999999999 0.05715 -0.0005"/>
      <geometry>
        <box size="0.15239999999999998 0.1143 0.001"/>
      </geometry>
      <material name="yellow_fabric"/>
    </visual>
    <collision>
      <origin xyz="0.07619999999999999 0.05715 -0.0005"/>
      <geometry>
        <box size="0.15239999999999998 0.1143 0.001"/>
      </geometry>
    </collision>
  </link>
  <link name="pod_bin_1e_right">
    <inertial>
      <mass value="0.01"/>
      <inertia ixx="0.0002835" ixy="0.0" ixz="0.0" iyy="0.0002835" iyz="0.0" izz="0.000324"/>
    </inertial>
    <visual>
      <origin xyz="0.07619999999999999 0.05715 -0.0005"/>
      <geometry>
        <box size="0.15239999999999998 0.1143 0.001"/>
      </geometry>
      <material name="yellow_fabric"/>
    </visual>
    <collision>
      <origin xyz="0.07619999999999999 0.05715 -0.0005"/>
      <geometry>
        <box size="0.15239999999999998 0.1143 0.001"/>
      </geometry>
    </collision>
  </link>
  <link name="pod_bin_1e_top">
    <inertial>
      <mass value="0.01"/>
      <inertia ixx="0.0002835" ixy="0.0" ixz="0.0" iyy="0.0002835" iyz="0.0" izz="0.000324"/>
    </inertial>
    <visual>
      <origin xyz="0.1143 0.07619999999999999 -0.0005"/>
      <geometry>
        <box size="0.2286 0.15239999999999998 0.001"/>
      </geometry>
      <material name="yellow_fabric"/>
    </visual>
    <collision>
      <origin xyz="0.1143 0.07619999999999999 -0.0005"/>
      <geometry>
        <box size="0.2286 0.15239999999999998 0.001"/>
      </geometry>
    </collision>
  </link>
  <link name="pod_bin_1e_back">
    <inertial>
      <mass value="0.01"/>
      <inertia ixx="0.0002835" ixy="0.0" ixz="0.0" iyy="0.0002835" iyz="0.0" izz="0.000324"/>
    </inertial>
    <visual>
      <origin xyz="0.1143 0.05715 -0.0005"/>
      <geometry>
        <box size="0.2286 0.1143 0.001"/>
      </geometry>
      <material name="yellow_fabric"/>
    </visual>
    <collision>
      <origin xyz="0.1143 0.05715 -0.0005"/>
      <geometry>
        <box size="0.2286 0.1143 0.001"/>
      </geometry>
    </collision>
  </link>
  <link name="pod_bin_1e_flap">
    <inertial>
      <mass value="0.01"/>
      <inertia ixx="0.0002835" ixy="0.0" ixz="0.0" iyy="0.0002835" iyz="0.0" izz="0.000324"/>
    </inertial>
    <visual>
      <origin xyz="0.1143 0.0127 -0.0005"/>
      <geometry>
        <box size="0.2286 0.0254 0.001"/>
      </geometry>
      <material name="yellow_fabric"/>
    </visual>
    <collision>
      <origin xyz="0.1143 0.0127 -0.0005"/>
      <geometry>
        <box size="0.2286 0.0254 0.001"/>
      </geometry>
    </collision>
  </link>
  <joint name="pod_bin_1e_pod_bin_1e_bottom" type="fixed">
    <parent link="pod_bin_1e"/>
    <child link="pod_bin_1e_bottom"/>
  </joint>
  <joint name="pod_bin_1e_pod_bin_1e_left" type="fixed">
    <origin rpy="1.5707963267948966 0 1.5707963267948966 " xyz="0 0 0"/>
    <parent link="pod_bin_1e"/>
    <child link="pod_bin_1e_left"/>
  </joint>
  <joint name="pod_bin_1e_pod_bin_1e_right" type="fixed">
    <origin rpy="1.5707963267948966 0 1.5707963267948966 " xyz="0.2286 0 0"/>
    <parent link="pod_bin_1e"/>
    <child link="pod_bin_1e_right"/>
  </joint>
  <joint name="pod_bin_1e_pod_bin_1e_top" type="fixed">
    <origin rpy="0 0 0" xyz="0 0 0.1143"/>
    <parent link="pod_bin_1e"/>
    <child link="pod_bin_1e_top"/>
  </joint>
  <joint name="pod_bin_1e_pod_bin_1e_back" type="fixed">
    <origin rpy="1.5707963267948966 0 0" xyz="0 0.15239999999999998 0"/>
    <parent link="pod_bin_1e"/>
    <child link="pod_bin_1e_back"/>
  </joint>
  <joint name="pod_bin_1e_pod_bin_1e_flap" type="fixed">
    <origin rpy="1.5707963267948966 0 0" xyz="0 0 0"/>
    <parent link="pod_bin_1e"/>
    <child link="pod_bin_1e_flap"/>
  </joint>
  <joint name="pod_shelf_e_pod_bin_1e_joint" type="fixed">
    <origin xyz="0.0 0 0"/>
    <parent link="pod_shelf_e"/>
    <child link="pod_bin_1e"/>
  </joint>
  <link name="pod_bin_2e"/>
  <link name="pod_bin_2e_bottom">
    <inertial>
      <mass value="0.01"/>
      <inertia ixx="0.0002835" ixy="0.0" ixz="0.0" iyy="0.0002835" iyz="0.0" izz="0.000324"/>
    </inertial>
    <visual>
      <origin xyz="0.1143 0.07619999999999999 -0.0005"/>
      <geometry>
        <box size="0.2286 0.15239999999999998 0.001"/>
      </geometry>
      <material name="yellow_fabric"/>
    </visual>
    <collision>
      <origin xyz="0.1143 0.07619999999999999 -0.0005"/>
      <geometry>
        <box size="0.2286 0.15239999999999998 0.001"/>
      </geometry>
    </collision>
  </link>
  <link name="pod_bin_2e_left">
    <inertial>
      <mass value="0.01"/>
      <inertia ixx="0.0002835" ixy="0.0" ixz="0.0" iyy="0.0002835" iyz="0.0" izz="0.000324"/>
    </inertial>
    <visual>
      <origin xyz="0.07619999999999999 0.05715 -0.0005"/>
      <geometry>
        <box size="0.15239999999999998 0.1143 0.001"/>
      </geometry>
      <material name="yellow_fabric"/>
    </visual>
    <collision>
      <origin xyz="0.07619999999999999 0.05715 -0.0005"/>
      <geometry>
        <box size="0.15239999999999998 0.1143 0.001"/>
      </geometry>
    </collision>
  </link>
  <link name="pod_bin_2e_right">
    <inertial>
      <mass value="0.01"/>
      <inertia ixx="0.0002835" ixy="0.0" ixz="0.0" iyy="0.0002835" iyz="0.0" izz="0.000324"/>
    </inertial>
    <visual>
      <origin xyz="0.07619999999999999 0.05715 -0.0005"/>
      <geometry>
        <box size="0.15239999999999998 0.1143 0.001"/>
      </geometry>
      <material name="yellow_fabric"/>
    </visual>
    <collision>
      <origin xyz="0.07619999999999999 0.05715 -0.0005"/>
      <geometry>
        <box size="0.15239999999999998 0.1143 0.001"/>
      </geometry>
    </collision>
  </link>
  <link name="pod_bin_2e_top">
    <inertial>
      <mass value="0.01"/>
      <inertia ixx="0.0002835" ixy="0.0" ixz="0.0" iyy="0.0002835" iyz="0.0" izz="0.000324"/>
    </inertial>
    <visual>
      <origin xyz="0.1143 0.07619999999999999 -0.0005"/>
      <geometry>
        <box size="0.2286 0.15239999999999998 0.001"/>
      </geometry>
      <material name="yellow_fabric"/>
    </visual>
    <collision>
      <origin xyz="0.1143 0.07619999999999999 -0.0005"/>
      <geometry>
        <box size="0.2286 0.15239999999999998 0.001"/>
      </geometry>
    </collision>
  </link>
  <link name="pod_bin_2e_back">
    <inertial>
      <mass value="0.01"/>
      <inertia ixx="0.0002835" ixy="0.0" ixz="0.0" iyy="0.0002835" iyz="0.0" izz="0.000324"/>
    </inertial>
    <visual>
      <origin xyz="0.1143 0.05715 -0.0005"/>
      <geometry>
        <box size="0.2286 0.1143 0.001"/>
      </geometry>
      <material name="yellow_fabric"/>
    </visual>
    <collision>
      <origin xyz="0.1143 0.05715 -0.0005"/>
      <geometry>
        <box size="0.2286 0.1143 0.001"/>
      </geometry>
    </collision>
  </link>
  <link name="pod_bin_2e_flap">
    <inertial>
      <mass value="0.01"/>
      <inertia ixx="0.0002835" ixy="0.0" ixz="0.0" iyy="0.0002835" iyz="0.0" izz="0.000324"/>
    </inertial>
    <visual>
      <origin xyz="0.1143 0.0127 -0.0005"/>
      <geometry>
        <box size="0.2286 0.0254 0.001"/>
      </geometry>
      <material name="yellow_fabric"/>
    </visual>
    <collision>
      <origin xyz="0.1143 0.0127 -0.0005"/>
      <geometry>
        <box size="0.2286 0.0254 0.001"/>
      </geometry>
    </collision>
  </link>
  <joint name="pod_bin_2e_pod_bin_2e_bottom" type="fixed">
    <parent link="pod_bin_2e"/>
    <child link="pod_bin_2e_bottom"/>
  </joint>
  <joint name="pod_bin_2e_pod_bin_2e_left" type="fixed">
    <origin rpy="1.5707963267948966 0 1.5707963267948966 " xyz="0 0 0"/>
    <parent link="pod_bin_2e"/>
    <child link="pod_bin_2e_left"/>
  </joint>
  <joint name="pod_bin_2e_pod_bin_2e_right" type="fixed">
    <origin rpy="1.5707963267948966 0 1.5707963267948966 " xyz="0.2286 0 0"/>
    <parent link="pod_bin_2e"/>
    <child link="pod_bin_2e_right"/>
  </joint>
  <joint name="pod_bin_2e_pod_bin_2e_top" type="fixed">
    <origin rpy="0 0 0" xyz="0 0 0.1143"/>
    <parent link="pod_bin_2e"/>
    <child link="pod_bin_2e_top"/>
  </joint>
  <joint name="pod_bin_2e_pod_bin_2e_back" type="fixed">
    <origin rpy="1.5707963267948966 0 0" xyz="0 0.15239999999999998 0"/>
    <parent link="pod_bin_2e"/>
    <child link="pod_bin_2e_back"/>
  </joint>
  <joint name="pod_bin_2e_pod_bin_2e_flap" type="fixed">
    <origin rpy="1.5707963267948966 0 0" xyz="0 0 0"/>
    <parent link="pod_bin_2e"/>
    <child link="pod_bin_2e_flap"/>
  </joint>
  <joint name="pod_shelf_e_pod_bin_2e_joint" type="fixed">
    <origin xyz="0.2286 0 0"/>
    <parent link="pod_shelf_e"/>
    <child link="pod_bin_2e"/>
  </joint>
  <link name="pod_bin_3e"/>
  <link name="pod_bin_3e_bottom">
    <inertial>
      <mass value="0.01"/>
      <inertia ixx="0.0002835" ixy="0.0" ixz="0.0" iyy="0.0002835" iyz="0.0" izz="0.000324"/>
    </inertial>
    <visual>
      <origin xyz="0.1143 0.07619999999999999 -0.0005"/>
      <geometry>
        <box size="0.2286 0.15239999999999998 0.001"/>
      </geometry>
      <material name="yellow_fabric"/>
    </visual>
    <collision>
      <origin xyz="0.1143 0.07619999999999999 -0.0005"/>
      <geometry>
        <box size="0.2286 0.15239999999999998 0.001"/>
      </geometry>
    </collision>
  </link>
  <link name="pod_bin_3e_left">
    <inertial>
      <mass value="0.01"/>
      <inertia ixx="0.0002835" ixy="0.0" ixz="0.0" iyy="0.0002835" iyz="0.0" izz="0.000324"/>
    </inertial>
    <visual>
      <origin xyz="0.07619999999999999 0.05715 -0.0005"/>
      <geometry>
        <box size="0.15239999999999998 0.1143 0.001"/>
      </geometry>
      <material name="yellow_fabric"/>
    </visual>
    <collision>
      <origin xyz="0.07619999999999999 0.05715 -0.0005"/>
      <geometry>
        <box size="0.15239999999999998 0.1143 0.001"/>
      </geometry>
    </collision>
  </link>
  <link name="pod_bin_3e_right">
    <inertial>
      <mass value="0.01"/>
      <inertia ixx="0.0002835" ixy="0.0" ixz="0.0" iyy="0.0002835" iyz="0.0" izz="0.000324"/>
    </inertial>
    <visual>
      <origin xyz="0.07619999999999999 0.05715 -0.0005"/>
      <geometry>
        <box size="0.15239999999999998 0.1143 0.001"/>
      </geometry>
      <material name="yellow_fabric"/>
    </visual>
    <collision>
      <origin xyz="0.07619999999999999 0.05715 -0.0005"/>
      <geometry>
        <box size="0.15239999999999998 0.1143 0.001"/>
      </geometry>
    </collision>
  </link>
  <link name="pod_bin_3e_top">
    <inertial>
      <mass value="0.01"/>
      <inertia ixx="0.0002835" ixy="0.0" ixz="0.0" iyy="0.0002835" iyz="0.0" izz="0.000324"/>
    </inertial>
    <visual>
      <origin xyz="0.1143 0.07619999999999999 -0.0005"/>
      <geometry>
        <box size="0.2286 0.15239999999999998 0.001"/>
      </geometry>
      <material name="yellow_fabric"/>
    </visual>
    <collision>
      <origin xyz="0.1143 0.07619999999999999 -0.0005"/>
      <geometry>
        <box size="0.2286 0.15239999999999998 0.001"/>
      </geometry>
    </collision>
  </link>
  <link name="pod_bin_3e_back">
    <inertial>
      <mass value="0.01"/>
      <inertia ixx="0.0002835" ixy="0.0" ixz="0.0" iyy="0.0002835" iyz="0.0" izz="0.000324"/>
    </inertial>
    <visual>
      <origin xyz="0.1143 0.05715 -0.0005"/>
      <geometry>
        <box size="0.2286 0.1143 0.001"/>
      </geometry>
      <material name="yellow_fabric"/>
    </visual>
    <collision>
      <origin xyz="0.1143 0.05715 -0.0005"/>
      <geometry>
        <box size="0.2286 0.1143 0.001"/>
      </geometry>
    </collision>
  </link>
  <link name="pod_bin_3e_flap">
    <inertial>
      <mass value="0.01"/>
      <inertia ixx="0.0002835" ixy="0.0" ixz="0.0" iyy="0.0002835" iyz="0.0" izz="0.000324"/>
    </inertial>
    <visual>
      <origin xyz="0.1143 0.0127 -0.0005"/>
      <geometry>
        <box size="0.2286 0.0254 0.001"/>
      </geometry>
      <material name="yellow_fabric"/>
    </visual>
    <collision>
      <origin xyz="0.1143 0.0127 -0.0005"/>
      <geometry>
        <box size="0.2286 0.0254 0.001"/>
      </geometry>
    </collision>
  </link>
  <joint name="pod_bin_3e_pod_bin_3e_bottom" type="fixed">
    <parent link="pod_bin_3e"/>
    <child link="pod_bin_3e_bottom"/>
  </joint>
  <joint name="pod_bin_3e_pod_bin_3e_left" type="fixed">
    <origin rpy="1.5707963267948966 0 1.5707963267948966 " xyz="0 0 0"/>
    <parent link="pod_bin_3e"/>
    <child link="pod_bin_3e_left"/>
  </joint>
  <joint name="pod_bin_3e_pod_bin_3e_right" type="fixed">
    <origin rpy="1.5707963267948966 0 1.5707963267948966 " xyz="0.2286 0 0"/>
    <parent link="pod_bin_3e"/>
    <child link="pod_bin_3e_right"/>
  </joint>
  <joint name="pod_bin_3e_pod_bin_3e_top" type="fixed">
    <origin rpy="0 0 0" xyz="0 0 0.1143"/>
    <parent link="pod_bin_3e"/>
    <child link="pod_bin_3e_top"/>
  </joint>
  <joint name="pod_bin_3e_pod_bin_3e_back" type="fixed">
    <origin rpy="1.5707963267948966 0 0" xyz="0 0.15239999999999998 0"/>
    <parent link="pod_bin_3e"/>
    <child link="pod_bin_3e_back"/>
  </joint>
  <joint name="pod_bin_3e_pod_bin_3e_flap" type="fixed">
    <origin rpy="1.5707963267948966 0 0" xyz="0 0 0"/>
    <parent link="pod_bin_3e"/>
    <child link="pod_bin_3e_flap"/>
  </joint>
  <joint name="pod_shelf_e_pod_bin_3e_joint" type="fixed">
    <origin xyz="0.4572 0 0"/>
    <parent link="pod_shelf_e"/>
    <child link="pod_bin_3e"/>
  </joint>
  <link name="pod_bin_4e"/>
  <link name="pod_bin_4e_bottom">
    <inertial>
      <mass value="0.01"/>
      <inertia ixx="0.0002835" ixy="0.0" ixz="0.0" iyy="0.0002835" iyz="0.0" izz="0.000324"/>
    </inertial>
    <visual>
      <origin xyz="0.1143 0.07619999999999999 -0.0005"/>
      <geometry>
        <box size="0.2286 0.15239999999999998 0.001"/>
      </geometry>
      <material name="yellow_fabric"/>
    </visual>
    <collision>
      <origin xyz="0.1143 0.07619999999999999 -0.0005"/>
      <geometry>
        <box size="0.2286 0.15239999999999998 0.001"/>
      </geometry>
    </collision>
  </link>
  <link name="pod_bin_4e_left">
    <inertial>
      <mass value="0.01"/>
      <inertia ixx="0.0002835" ixy="0.0" ixz="0.0" iyy="0.0002835" iyz="0.0" izz="0.000324"/>
    </inertial>
    <visual>
      <origin xyz="0.07619999999999999 0.05715 -0.0005"/>
      <geometry>
        <box size="0.15239999999999998 0.1143 0.001"/>
      </geometry>
      <material name="yellow_fabric"/>
    </visual>
    <collision>
      <origin xyz="0.07619999999999999 0.05715 -0.0005"/>
      <geometry>
        <box size="0.15239999999999998 0.1143 0.001"/>
      </geometry>
    </collision>
  </link>
  <link name="pod_bin_4e_right">
    <inertial>
      <mass value="0.01"/>
      <inertia ixx="0.0002835" ixy="0.0" ixz="0.0" iyy="0.0002835" iyz="0.0" izz="0.000324"/>
    </inertial>
    <visual>
      <origin xyz="0.07619999999999999 0.05715 -0.0005"/>
      <geometry>
        <box size="0.15239999999999998 0.1143 0.001"/>
      </geometry>
      <material name="yellow_fabric"/>
    </visual>
    <collision>
      <origin xyz="0.07619999999999999 0.05715 -0.0005"/>
      <geometry>
        <box size="0.15239999999999998 0.1143 0.001"/>
      </geometry>
    </collision>
  </link>
  <link name="pod_bin_4e_top">
    <inertial>
      <mass value="0.01"/>
      <inertia ixx="0.0002835" ixy="0.0" ixz="0.0" iyy="0.0002835" iyz="0.0" izz="0.000324"/>
    </inertial>
    <visual>
      <origin xyz="0.1143 0.07619999999999999 -0.0005"/>
      <geometry>
        <box size="0.2286 0.15239999999999998 0.001"/>
      </geometry>
      <material name="yellow_fabric"/>
    </visual>
    <collision>
      <origin xyz="0.1143 0.07619999999999999 -0.0005"/>
      <geometry>
        <box size="0.2286 0.15239999999999998 0.001"/>
      </geometry>
    </collision>
  </link>
  <link name="pod_bin_4e_back">
    <inertial>
      <mass value="0.01"/>
      <inertia ixx="0.0002835" ixy="0.0" ixz="0.0" iyy="0.0002835" iyz="0.0" izz="0.000324"/>
    </inertial>
    <visual>
      <origin xyz="0.1143 0.05715 -0.0005"/>
      <geometry>
        <box size="0.2286 0.1143 0.001"/>
      </geometry>
      <material name="yellow_fabric"/>
    </visual>
    <collision>
      <origin xyz="0.1143 0.05715 -0.0005"/>
      <geometry>
        <box size="0.2286 0.1143 0.001"/>
      </geometry>
    </collision>
  </link>
  <link name="pod_bin_4e_flap">
    <inertial>
      <mass value="0.01"/>
      <inertia ixx="0.0002835" ixy="0.0" ixz="0.0" iyy="0.0002835" iyz="0.0" izz="0.000324"/>
    </inertial>
    <visual>
      <origin xyz="0.1143 0.0127 -0.0005"/>
      <geometry>
        <box size="0.2286 0.0254 0.001"/>
      </geometry>
      <material name="yellow_fabric"/>
    </visual>
    <collision>
      <origin xyz="0.1143 0.0127 -0.0005"/>
      <geometry>
        <box size="0.2286 0.0254 0.001"/>
      </geometry>
    </collision>
  </link>
  <joint name="pod_bin_4e_pod_bin_4e_bottom" type="fixed">
    <parent link="pod_bin_4e"/>
    <child link="pod_bin_4e_bottom"/>
  </joint>
  <joint name="pod_bin_4e_pod_bin_4e_left" type="fixed">
    <origin rpy="1.5707963267948966 0 1.5707963267948966 " xyz="0 0 0"/>
    <parent link="pod_bin_4e"/>
    <child link="pod_bin_4e_left"/>
  </joint>
  <joint name="pod_bin_4e_pod_bin_4e_right" type="fixed">
    <origin rpy="1.5707963267948966 0 1.5707963267948966 " xyz="0.2286 0 0"/>
    <parent link="pod_bin_4e"/>
    <child link="pod_bin_4e_right"/>
  </joint>
  <joint name="pod_bin_4e_pod_bin_4e_top" type="fixed">
    <origin rpy="0 0 0" xyz="0 0 0.1143"/>
    <parent link="pod_bin_4e"/>
    <child link="pod_bin_4e_top"/>
  </joint>
  <joint name="pod_bin_4e_pod_bin_4e_back" type="fixed">
    <origin rpy="1.5707963267948966 0 0" xyz="0 0.15239999999999998 0"/>
    <parent link="pod_bin_4e"/>
    <child link="pod_bin_4e_back"/>
  </joint>
  <joint name="pod_bin_4e_pod_bin_4e_flap" type="fixed">
    <origin rpy="1.5707963267948966 0 0" xyz="0 0 0"/>
    <parent link="pod_bin_4e"/>
    <child link="pod_bin_4e_flap"/>
  </joint>
  <joint name="pod_shelf_e_pod_bin_4e_joint" type="fixed">
    <origin xyz="0.6858 0 0"/>
    <parent link="pod_shelf_e"/>
    <child link="pod_bin_4e"/>
  </joint>
  <joint name="pod_fabric_base_pod_shelf_e_joint" type="fixed">
    <origin xyz="0 0 0.70485"/>
    <parent link="pod_fabric_base"/>
    <child link="pod_shelf_e"/>
  </joint>
  <link name="pod_shelf_f"/>
  <link name="pod_bin_1f"/>
  <link name="pod_bin_1f_bottom">
    <inertial>
      <mass value="0.01"/>
      <inertia ixx="0.0002835" ixy="0.0" ixz="0.0" iyy="0.0002835" iyz="0.0" izz="0.000324"/>
    </inertial>
    <visual>
      <origin xyz="0.1143 0.07619999999999999 -0.0005"/>
      <geometry>
        <box size="0.2286 0.15239999999999998 0.001"/>
      </geometry>
      <material name="yellow_fabric"/>
    </visual>
    <collision>
      <origin xyz="0.1143 0.07619999999999999 -0.0005"/>
      <geometry>
        <box size="0.2286 0.15239999999999998 0.001"/>
      </geometry>
    </collision>
  </link>
  <link name="pod_bin_1f_left">
    <inertial>
      <mass value="0.01"/>
      <inertia ixx="0.0002835" ixy="0.0" ixz="0.0" iyy="0.0002835" iyz="0.0" izz="0.000324"/>
    </inertial>
    <visual>
      <origin xyz="0.07619999999999999 0.111125 -0.0005"/>
      <geometry>
        <box size="0.15239999999999998 0.22225 0.001"/>
      </geometry>
      <material name="yellow_fabric"/>
    </visual>
    <collision>
      <origin xyz="0.07619999999999999 0.111125 -0.0005"/>
      <geometry>
        <box size="0.15239999999999998 0.22225 0.001"/>
      </geometry>
    </collision>
  </link>
  <link name="pod_bin_1f_right">
    <inertial>
      <mass value="0.01"/>
      <inertia ixx="0.0002835" ixy="0.0" ixz="0.0" iyy="0.0002835" iyz="0.0" izz="0.000324"/>
    </inertial>
    <visual>
      <origin xyz="0.07619999999999999 0.111125 -0.0005"/>
      <geometry>
        <box size="0.15239999999999998 0.22225 0.001"/>
      </geometry>
      <material name="yellow_fabric"/>
    </visual>
    <collision>
      <origin xyz="0.07619999999999999 0.111125 -0.0005"/>
      <geometry>
        <box size="0.15239999999999998 0.22225 0.001"/>
      </geometry>
    </collision>
  </link>
  <link name="pod_bin_1f_top">
    <inertial>
      <mass value="0.01"/>
      <inertia ixx="0.0002835" ixy="0.0" ixz="0.0" iyy="0.0002835" iyz="0.0" izz="0.000324"/>
    </inertial>
    <visual>
      <origin xyz="0.1143 0.07619999999999999 -0.0005"/>
      <geometry>
        <box size="0.2286 0.15239999999999998 0.001"/>
      </geometry>
      <material name="yellow_fabric"/>
    </visual>
    <collision>
      <origin xyz="0.1143 0.07619999999999999 -0.0005"/>
      <geometry>
        <box size="0.2286 0.15239999999999998 0.001"/>
      </geometry>
    </collision>
  </link>
  <link name="pod_bin_1f_back">
    <inertial>
      <mass value="0.01"/>
      <inertia ixx="0.0002835" ixy="0.0" ixz="0.0" iyy="0.0002835" iyz="0.0" izz="0.000324"/>
    </inertial>
    <visual>
      <origin xyz="0.1143 0.111125 -0.0005"/>
      <geometry>
        <box size="0.2286 0.22225 0.001"/>
      </geometry>
      <material name="yellow_fabric"/>
    </visual>
    <collision>
      <origin xyz="0.1143 0.111125 -0.0005"/>
      <geometry>
        <box size="0.2286 0.22225 0.001"/>
      </geometry>
    </collision>
  </link>
  <link name="pod_bin_1f_flap">
    <inertial>
      <mass value="0.01"/>
      <inertia ixx="0.0002835" ixy="0.0" ixz="0.0" iyy="0.0002835" iyz="0.0" izz="0.000324"/>
    </inertial>
    <visual>
      <origin xyz="0.1143 0.0127 -0.0005"/>
      <geometry>
        <box size="0.2286 0.0254 0.001"/>
      </geometry>
      <material name="yellow_fabric"/>
    </visual>
    <collision>
      <origin xyz="0.1143 0.0127 -0.0005"/>
      <geometry>
        <box size="0.2286 0.0254 0.001"/>
      </geometry>
    </collision>
  </link>
  <joint name="pod_bin_1f_pod_bin_1f_bottom" type="fixed">
    <parent link="pod_bin_1f"/>
    <child link="pod_bin_1f_bottom"/>
  </joint>
  <joint name="pod_bin_1f_pod_bin_1f_left" type="fixed">
    <origin rpy="1.5707963267948966 0 1.5707963267948966 " xyz="0 0 0"/>
    <parent link="pod_bin_1f"/>
    <child link="pod_bin_1f_left"/>
  </joint>
  <joint name="pod_bin_1f_pod_bin_1f_right" type="fixed">
    <origin rpy="1.5707963267948966 0 1.5707963267948966 " xyz="0.2286 0 0"/>
    <parent link="pod_bin_1f"/>
    <child link="pod_bin_1f_right"/>
  </joint>
  <joint name="pod_bin_1f_pod_bin_1f_top" type="fixed">
    <origin rpy="0 0 0" xyz="0 0 0.22225"/>
    <parent link="pod_bin_1f"/>
    <child link="pod_bin_1f_top"/>
  </joint>
  <joint name="pod_bin_1f_pod_bin_1f_back" type="fixed">
    <origin rpy="1.5707963267948966 0 0" xyz="0 0.15239999999999998 0"/>
    <parent link="pod_bin_1f"/>
    <child link="pod_bin_1f_back"/>
  </joint>
  <joint name="pod_bin_1f_pod_bin_1f_flap" type="fixed">
    <origin rpy="1.5707963267948966 0 0" xyz="0 0 0"/>
    <parent link="pod_bin_1f"/>
    <child link="pod_bin_1f_flap"/>
  </joint>
  <joint name="pod_shelf_f_pod_bin_1f_joint" type="fixed">
    <origin xyz="0.0 0 0"/>
    <parent link="pod_shelf_f"/>
    <child link="pod_bin_1f"/>
  </joint>
  <link name="pod_bin_2f"/>
  <link name="pod_bin_2f_bottom">
    <inertial>
      <mass value="0.01"/>
      <inertia ixx="0.0002835" ixy="0.0" ixz="0.0" iyy="0.0002835" iyz="0.0" izz="0.000324"/>
    </inertial>
    <visual>
      <origin xyz="0.1143 0.07619999999999999 -0.0005"/>
      <geometry>
        <box size="0.2286 0.15239999999999998 0.001"/>
      </geometry>
      <material name="yellow_fabric"/>
    </visual>
    <collision>
      <origin xyz="0.1143 0.07619999999999999 -0.0005"/>
      <geometry>
        <box size="0.2286 0.15239999999999998 0.001"/>
      </geometry>
    </collision>
  </link>
  <link name="pod_bin_2f_left">
    <inertial>
      <mass value="0.01"/>
      <inertia ixx="0.0002835" ixy="0.0" ixz="0.0" iyy="0.0002835" iyz="0.0" izz="0.000324"/>
    </inertial>
    <visual>
      <origin xyz="0.07619999999999999 0.111125 -0.0005"/>
      <geometry>
        <box size="0.15239999999999998 0.22225 0.001"/>
      </geometry>
      <material name="yellow_fabric"/>
    </visual>
    <collision>
      <origin xyz="0.07619999999999999 0.111125 -0.0005"/>
      <geometry>
        <box size="0.15239999999999998 0.22225 0.001"/>
      </geometry>
    </collision>
  </link>
  <link name="pod_bin_2f_right">
    <inertial>
      <mass value="0.01"/>
      <inertia ixx="0.0002835" ixy="0.0" ixz="0.0" iyy="0.0002835" iyz="0.0" izz="0.000324"/>
    </inertial>
    <visual>
      <origin xyz="0.07619999999999999 0.111125 -0.0005"/>
      <geometry>
        <box size="0.15239999999999998 0.22225 0.001"/>
      </geometry>
      <material name="yellow_fabric"/>
    </visual>
    <collision>
      <origin xyz="0.07619999999999999 0.111125 -0.0005"/>
      <geometry>
        <box size="0.15239999999999998 0.22225 0.001"/>
      </geometry>
    </collision>
  </link>
  <link name="pod_bin_2f_top">
    <inertial>
      <mass value="0.01"/>
      <inertia ixx="0.0002835" ixy="0.0" ixz="0.0" iyy="0.0002835" iyz="0.0" izz="0.000324"/>
    </inertial>
    <visual>
      <origin xyz="0.1143 0.07619999999999999 -0.0005"/>
      <geometry>
        <box size="0.2286 0.15239999999999998 0.001"/>
      </geometry>
      <material name="yellow_fabric"/>
    </visual>
    <collision>
      <origin xyz="0.1143 0.07619999999999999 -0.0005"/>
      <geometry>
        <box size="0.2286 0.15239999999999998 0.001"/>
      </geometry>
    </collision>
  </link>
  <link name="pod_bin_2f_back">
    <inertial>
      <mass value="0.01"/>
      <inertia ixx="0.0002835" ixy="0.0" ixz="0.0" iyy="0.0002835" iyz="0.0" izz="0.000324"/>
    </inertial>
    <visual>
      <origin xyz="0.1143 0.111125 -0.0005"/>
      <geometry>
        <box size="0.2286 0.22225 0.001"/>
      </geometry>
      <material name="yellow_fabric"/>
    </visual>
    <collision>
      <origin xyz="0.1143 0.111125 -0.0005"/>
      <geometry>
        <box size="0.2286 0.22225 0.001"/>
      </geometry>
    </collision>
  </link>
  <link name="pod_bin_2f_flap">
    <inertial>
      <mass value="0.01"/>
      <inertia ixx="0.0002835" ixy="0.0" ixz="0.0" iyy="0.0002835" iyz="0.0" izz="0.000324"/>
    </inertial>
    <visual>
      <origin xyz="0.1143 0.0127 -0.0005"/>
      <geometry>
        <box size="0.2286 0.0254 0.001"/>
      </geometry>
      <material name="yellow_fabric"/>
    </visual>
    <collision>
      <origin xyz="0.1143 0.0127 -0.0005"/>
      <geometry>
        <box size="0.2286 0.0254 0.001"/>
      </geometry>
    </collision>
  </link>
  <joint name="pod_bin_2f_pod_bin_2f_bottom" type="fixed">
    <parent link="pod_bin_2f"/>
    <child link="pod_bin_2f_bottom"/>
  </joint>
  <joint name="pod_bin_2f_pod_bin_2f_left" type="fixed">
    <origin rpy="1.5707963267948966 0 1.5707963267948966 " xyz="0 0 0"/>
    <parent link="pod_bin_2f"/>
    <child link="pod_bin_2f_left"/>
  </joint>
  <joint name="pod_bin_2f_pod_bin_2f_right" type="fixed">
    <origin rpy="1.5707963267948966 0 1.5707963267948966 " xyz="0.2286 0 0"/>
    <parent link="pod_bin_2f"/>
    <child link="pod_bin_2f_right"/>
  </joint>
  <joint name="pod_bin_2f_pod_bin_2f_top" type="fixed">
    <origin rpy="0 0 0" xyz="0 0 0.22225"/>
    <parent link="pod_bin_2f"/>
    <child link="pod_bin_2f_top"/>
  </joint>
  <joint name="pod_bin_2f_pod_bin_2f_back" type="fixed">
    <origin rpy="1.5707963267948966 0 0" xyz="0 0.15239999999999998 0"/>
    <parent link="pod_bin_2f"/>
    <child link="pod_bin_2f_back"/>
  </joint>
  <joint name="pod_bin_2f_pod_bin_2f_flap" type="fixed">
    <origin rpy="1.5707963267948966 0 0" xyz="0 0 0"/>
    <parent link="pod_bin_2f"/>
    <child link="pod_bin_2f_flap"/>
  </joint>
  <joint name="pod_shelf_f_pod_bin_2f_joint" type="fixed">
    <origin xyz="0.2286 0 0"/>
    <parent link="pod_shelf_f"/>
    <child link="pod_bin_2f"/>
  </joint>
  <link name="pod_bin_3f"/>
  <link name="pod_bin_3f_bottom">
    <inertial>
      <mass value="0.01"/>
      <inertia ixx="0.0002835" ixy="0.0" ixz="0.0" iyy="0.0002835" iyz="0.0" izz="0.000324"/>
    </inertial>
    <visual>
      <origin xyz="0.1143 0.07619999999999999 -0.0005"/>
      <geometry>
        <box size="0.2286 0.15239999999999998 0.001"/>
      </geometry>
      <material name="yellow_fabric"/>
    </visual>
    <collision>
      <origin xyz="0.1143 0.07619999999999999 -0.0005"/>
      <geometry>
        <box size="0.2286 0.15239999999999998 0.001"/>
      </geometry>
    </collision>
  </link>
  <link name="pod_bin_3f_left">
    <inertial>
      <mass value="0.01"/>
      <inertia ixx="0.0002835" ixy="0.0" ixz="0.0" iyy="0.0002835" iyz="0.0" izz="0.000324"/>
    </inertial>
    <visual>
      <origin xyz="0.07619999999999999 0.111125 -0.0005"/>
      <geometry>
        <box size="0.15239999999999998 0.22225 0.001"/>
      </geometry>
      <material name="yellow_fabric"/>
    </visual>
    <collision>
      <origin xyz="0.07619999999999999 0.111125 -0.0005"/>
      <geometry>
        <box size="0.15239999999999998 0.22225 0.001"/>
      </geometry>
    </collision>
  </link>
  <link name="pod_bin_3f_right">
    <inertial>
      <mass value="0.01"/>
      <inertia ixx="0.0002835" ixy="0.0" ixz="0.0" iyy="0.0002835" iyz="0.0" izz="0.000324"/>
    </inertial>
    <visual>
      <origin xyz="0.07619999999999999 0.111125 -0.0005"/>
      <geometry>
        <box size="0.15239999999999998 0.22225 0.001"/>
      </geometry>
      <material name="yellow_fabric"/>
    </visual>
    <collision>
      <origin xyz="0.07619999999999999 0.111125 -0.0005"/>
      <geometry>
        <box size="0.15239999999999998 0.22225 0.001"/>
      </geometry>
    </collision>
  </link>
  <link name="pod_bin_3f_top">
    <inertial>
      <mass value="0.01"/>
      <inertia ixx="0.0002835" ixy="0.0" ixz="0.0" iyy="0.0002835" iyz="0.0" izz="0.000324"/>
    </inertial>
    <visual>
      <origin xyz="0.1143 0.07619999999999999 -0.0005"/>
      <geometry>
        <box size="0.2286 0.15239999999999998 0.001"/>
      </geometry>
      <material name="yellow_fabric"/>
    </visual>
    <collision>
      <origin xyz="0.1143 0.07619999999999999 -0.0005"/>
      <geometry>
        <box size="0.2286 0.15239999999999998 0.001"/>
      </geometry>
    </collision>
  </link>
  <link name="pod_bin_3f_back">
    <inertial>
      <mass value="0.01"/>
      <inertia ixx="0.0002835" ixy="0.0" ixz="0.0" iyy="0.0002835" iyz="0.0" izz="0.000324"/>
    </inertial>
    <visual>
      <origin xyz="0.1143 0.111125 -0.0005"/>
      <geometry>
        <box size="0.2286 0.22225 0.001"/>
      </geometry>
      <material name="yellow_fabric"/>
    </visual>
    <collision>
      <origin xyz="0.1143 0.111125 -0.0005"/>
      <geometry>
        <box size="0.2286 0.22225 0.001"/>
      </geometry>
    </collision>
  </link>
  <link name="pod_bin_3f_flap">
    <inertial>
      <mass value="0.01"/>
      <inertia ixx="0.0002835" ixy="0.0" ixz="0.0" iyy="0.0002835" iyz="0.0" izz="0.000324"/>
    </inertial>
    <visual>
      <origin xyz="0.1143 0.0127 -0.0005"/>
      <geometry>
        <box size="0.2286 0.0254 0.001"/>
      </geometry>
      <material name="yellow_fabric"/>
    </visual>
    <collision>
      <origin xyz="0.1143 0.0127 -0.0005"/>
      <geometry>
        <box size="0.2286 0.0254 0.001"/>
      </geometry>
    </collision>
  </link>
  <joint name="pod_bin_3f_pod_bin_3f_bottom" type="fixed">
    <parent link="pod_bin_3f"/>
    <child link="pod_bin_3f_bottom"/>
  </joint>
  <joint name="pod_bin_3f_pod_bin_3f_left" type="fixed">
    <origin rpy="1.5707963267948966 0 1.5707963267948966 " xyz="0 0 0"/>
    <parent link="pod_bin_3f"/>
    <child link="pod_bin_3f_left"/>
  </joint>
  <joint name="pod_bin_3f_pod_bin_3f_right" type="fixed">
    <origin rpy="1.5707963267948966 0 1.5707963267948966 " xyz="0.2286 0 0"/>
    <parent link="pod_bin_3f"/>
    <child link="pod_bin_3f_right"/>
  </joint>
  <joint name="pod_bin_3f_pod_bin_3f_top" type="fixed">
    <origin rpy="0 0 0" xyz="0 0 0.22225"/>
    <parent link="pod_bin_3f"/>
    <child link="pod_bin_3f_top"/>
  </joint>
  <joint name="pod_bin_3f_pod_bin_3f_back" type="fixed">
    <origin rpy="1.5707963267948966 0 0" xyz="0 0.15239999999999998 0"/>
    <parent link="pod_bin_3f"/>
    <child link="pod_bin_3f_back"/>
  </joint>
  <joint name="pod_bin_3f_pod_bin_3f_flap" type="fixed">
    <origin rpy="1.5707963267948966 0 0" xyz="0 0 0"/>
    <parent link="pod_bin_3f"/>
    <child link="pod_bin_3f_flap"/>
  </joint>
  <joint name="pod_shelf_f_pod_bin_3f_joint" type="fixed">
    <origin xyz="0.4572 0 0"/>
    <parent link="pod_shelf_f"/>
    <child link="pod_bin_3f"/>
  </joint>
  <link name="pod_bin_4f"/>
  <link name="pod_bin_4f_bottom">
    <inertial>
      <mass value="0.01"/>
      <inertia ixx="0.0002835" ixy="0.0" ixz="0.0" iyy="0.0002835" iyz="0.0" izz="0.000324"/>
    </inertial>
    <visual>
      <origin xyz="0.1143 0.07619999999999999 -0.0005"/>
      <geometry>
        <box size="0.2286 0.15239999999999998 0.001"/>
      </geometry>
      <material name="yellow_fabric"/>
    </visual>
    <collision>
      <origin xyz="0.1143 0.07619999999999999 -0.0005"/>
      <geometry>
        <box size="0.2286 0.15239999999999998 0.001"/>
      </geometry>
    </collision>
  </link>
  <link name="pod_bin_4f_left">
    <inertial>
      <mass value="0.01"/>
      <inertia ixx="0.0002835" ixy="0.0" ixz="0.0" iyy="0.0002835" iyz="0.0" izz="0.000324"/>
    </inertial>
    <visual>
      <origin xyz="0.07619999999999999 0.111125 -0.0005"/>
      <geometry>
        <box size="0.15239999999999998 0.22225 0.001"/>
      </geometry>
      <material name="yellow_fabric"/>
    </visual>
    <collision>
      <origin xyz="0.07619999999999999 0.111125 -0.0005"/>
      <geometry>
        <box size="0.15239999999999998 0.22225 0.001"/>
      </geometry>
    </collision>
  </link>
  <link name="pod_bin_4f_right">
    <inertial>
      <mass value="0.01"/>
      <inertia ixx="0.0002835" ixy="0.0" ixz="0.0" iyy="0.0002835" iyz="0.0" izz="0.000324"/>
    </inertial>
    <visual>
      <origin xyz="0.07619999999999999 0.111125 -0.0005"/>
      <geometry>
        <box size="0.15239999999999998 0.22225 0.001"/>
      </geometry>
      <material name="yellow_fabric"/>
    </visual>
    <collision>
      <origin xyz="0.07619999999999999 0.111125 -0.0005"/>
      <geometry>
        <box size="0.15239999999999998 0.22225 0.001"/>
      </geometry>
    </collision>
  </link>
  <link name="pod_bin_4f_top">
    <inertial>
      <mass value="0.01"/>
      <inertia ixx="0.0002835" ixy="0.0" ixz="0.0" iyy="0.0002835" iyz="0.0" izz="0.000324"/>
    </inertial>
    <visual>
      <origin xyz="0.1143 0.07619999999999999 -0.0005"/>
      <geometry>
        <box size="0.2286 0.15239999999999998 0.001"/>
      </geometry>
      <material name="yellow_fabric"/>
    </visual>
    <collision>
      <origin xyz="0.1143 0.07619999999999999 -0.0005"/>
      <geometry>
        <box size="0.2286 0.15239999999999998 0.001"/>
      </geometry>
    </collision>
  </link>
  <link name="pod_bin_4f_back">
    <inertial>
      <mass value="0.01"/>
      <inertia ixx="0.0002835" ixy="0.0" ixz="0.0" iyy="0.0002835" iyz="0.0" izz="0.000324"/>
    </inertial>
    <visual>
      <origin xyz="0.1143 0.111125 -0.0005"/>
      <geometry>
        <box size="0.2286 0.22225 0.001"/>
      </geometry>
      <material name="yellow_fabric"/>
    </visual>
    <collision>
      <origin xyz="0.1143 0.111125 -0.0005"/>
      <geometry>
        <box size="0.2286 0.22225 0.001"/>
      </geometry>
    </collision>
  </link>
  <link name="pod_bin_4f_flap">
    <inertial>
      <mass value="0.01"/>
      <inertia ixx="0.0002835" ixy="0.0" ixz="0.0" iyy="0.0002835" iyz="0.0" izz="0.000324"/>
    </inertial>
    <visual>
      <origin xyz="0.1143 0.0127 -0.0005"/>
      <geometry>
        <box size="0.2286 0.0254 0.001"/>
      </geometry>
      <material name="yellow_fabric"/>
    </visual>
    <collision>
      <origin xyz="0.1143 0.0127 -0.0005"/>
      <geometry>
        <box size="0.2286 0.0254 0.001"/>
      </geometry>
    </collision>
  </link>
  <joint name="pod_bin_4f_pod_bin_4f_bottom" type="fixed">
    <parent link="pod_bin_4f"/>
    <child link="pod_bin_4f_bottom"/>
  </joint>
  <joint name="pod_bin_4f_pod_bin_4f_left" type="fixed">
    <origin rpy="1.5707963267948966 0 1.5707963267948966 " xyz="0 0 0"/>
    <parent link="pod_bin_4f"/>
    <child link="pod_bin_4f_left"/>
  </joint>
  <joint name="pod_bin_4f_pod_bin_4f_right" type="fixed">
    <origin rpy="1.5707963267948966 0 1.5707963267948966 " xyz="0.2286 0 0"/>
    <parent link="pod_bin_4f"/>
    <child link="pod_bin_4f_right"/>
  </joint>
  <joint name="pod_bin_4f_pod_bin_4f_top" type="fixed">
    <origin rpy="0 0 0" xyz="0 0 0.22225"/>
    <parent link="pod_bin_4f"/>
    <child link="pod_bin_4f_top"/>
  </joint>
  <joint name="pod_bin_4f_pod_bin_4f_back" type="fixed">
    <origin rpy="1.5707963267948966 0 0" xyz="0 0.15239999999999998 0"/>
    <parent link="pod_bin_4f"/>
    <child link="pod_bin_4f_back"/>
  </joint>
  <joint name="pod_bin_4f_pod_bin_4f_flap" type="fixed">
    <origin rpy="1.5707963267948966 0 0" xyz="0 0 0"/>
    <parent link="pod_bin_4f"/>
    <child link="pod_bin_4f_flap"/>
  </joint>
  <joint name="pod_shelf_f_pod_bin_4f_joint" type="fixed">
    <origin xyz="0.6858 0 0"/>
    <parent link="pod_shelf_f"/>
    <child link="pod_bin_4f"/>
  </joint>
  <joint name="pod_fabric_base_pod_shelf_f_joint" type="fixed">
    <origin xyz="0 0 0.8191499999999999"/>
    <parent link="pod_fabric_base"/>
    <child link="pod_shelf_f"/>
  </joint>
  <link name="pod_shelf_g"/>
  <link name="pod_bin_1g"/>
  <link name="pod_bin_1g_bottom">
    <inertial>
      <mass value="0.01"/>
      <inertia ixx="0.0002835" ixy="0.0" ixz="0.0" iyy="0.0002835" iyz="0.0" izz="0.000324"/>
    </inertial>
    <visual>
      <origin xyz="0.1143 0.07619999999999999 -0.0005"/>
      <geometry>
        <box size="0.2286 0.15239999999999998 0.001"/>
      </geometry>
      <material name="yellow_fabric"/>
    </visual>
    <collision>
      <origin xyz="0.1143 0.07619999999999999 -0.0005"/>
      <geometry>
        <box size="0.2286 0.15239999999999998 0.001"/>
      </geometry>
    </collision>
  </link>
  <link name="pod_bin_1g_left">
    <inertial>
      <mass value="0.01"/>
      <inertia ixx="0.0002835" ixy="0.0" ixz="0.0" iyy="0.0002835" iyz="0.0" izz="0.000324"/>
    </inertial>
    <visual>
      <origin xyz="0.07619999999999999 0.0635 -0.0005"/>
      <geometry>
        <box size="0.15239999999999998 0.127 0.001"/>
      </geometry>
      <material name="yellow_fabric"/>
    </visual>
    <collision>
      <origin xyz="0.07619999999999999 0.0635 -0.0005"/>
      <geometry>
        <box size="0.15239999999999998 0.127 0.001"/>
      </geometry>
    </collision>
  </link>
  <link name="pod_bin_1g_right">
    <inertial>
      <mass value="0.01"/>
      <inertia ixx="0.0002835" ixy="0.0" ixz="0.0" iyy="0.0002835" iyz="0.0" izz="0.000324"/>
    </inertial>
    <visual>
      <origin xyz="0.07619999999999999 0.0635 -0.0005"/>
      <geometry>
        <box size="0.15239999999999998 0.127 0.001"/>
      </geometry>
      <material name="yellow_fabric"/>
    </visual>
    <collision>
      <origin xyz="0.07619999999999999 0.0635 -0.0005"/>
      <geometry>
        <box size="0.15239999999999998 0.127 0.001"/>
      </geometry>
    </collision>
  </link>
  <link name="pod_bin_1g_top">
    <inertial>
      <mass value="0.01"/>
      <inertia ixx="0.0002835" ixy="0.0" ixz="0.0" iyy="0.0002835" iyz="0.0" izz="0.000324"/>
    </inertial>
    <visual>
      <origin xyz="0.1143 0.07619999999999999 -0.0005"/>
      <geometry>
        <box size="0.2286 0.15239999999999998 0.001"/>
      </geometry>
      <material name="yellow_fabric"/>
    </visual>
    <collision>
      <origin xyz="0.1143 0.07619999999999999 -0.0005"/>
      <geometry>
        <box size="0.2286 0.15239999999999998 0.001"/>
      </geometry>
    </collision>
  </link>
  <link name="pod_bin_1g_back">
    <inertial>
      <mass value="0.01"/>
      <inertia ixx="0.0002835" ixy="0.0" ixz="0.0" iyy="0.0002835" iyz="0.0" izz="0.000324"/>
    </inertial>
    <visual>
      <origin xyz="0.1143 0.0635 -0.0005"/>
      <geometry>
        <box size="0.2286 0.127 0.001"/>
      </geometry>
      <material name="yellow_fabric"/>
    </visual>
    <collision>
      <origin xyz="0.1143 0.0635 -0.0005"/>
      <geometry>
        <box size="0.2286 0.127 0.001"/>
      </geometry>
    </collision>
  </link>
  <link name="pod_bin_1g_flap">
    <inertial>
      <mass value="0.01"/>
      <inertia ixx="0.0002835" ixy="0.0" ixz="0.0" iyy="0.0002835" iyz="0.0" izz="0.000324"/>
    </inertial>
    <visual>
      <origin xyz="0.1143 0.0127 -0.0005"/>
      <geometry>
        <box size="0.2286 0.0254 0.001"/>
      </geometry>
      <material name="yellow_fabric"/>
    </visual>
    <collision>
      <origin xyz="0.1143 0.0127 -0.0005"/>
      <geometry>
        <box size="0.2286 0.0254 0.001"/>
      </geometry>
    </collision>
  </link>
  <joint name="pod_bin_1g_pod_bin_1g_bottom" type="fixed">
    <parent link="pod_bin_1g"/>
    <child link="pod_bin_1g_bottom"/>
  </joint>
  <joint name="pod_bin_1g_pod_bin_1g_left" type="fixed">
    <origin rpy="1.5707963267948966 0 1.5707963267948966 " xyz="0 0 0"/>
    <parent link="pod_bin_1g"/>
    <child link="pod_bin_1g_left"/>
  </joint>
  <joint name="pod_bin_1g_pod_bin_1g_right" type="fixed">
    <origin rpy="1.5707963267948966 0 1.5707963267948966 " xyz="0.2286 0 0"/>
    <parent link="pod_bin_1g"/>
    <child link="pod_bin_1g_right"/>
  </joint>
  <joint name="pod_bin_1g_pod_bin_1g_top" type="fixed">
    <origin rpy="0 0 0" xyz="0 0 0.127"/>
    <parent link="pod_bin_1g"/>
    <child link="pod_bin_1g_top"/>
  </joint>
  <joint name="pod_bin_1g_pod_bin_1g_back" type="fixed">
    <origin rpy="1.5707963267948966 0 0" xyz="0 0.15239999999999998 0"/>
    <parent link="pod_bin_1g"/>
    <child link="pod_bin_1g_back"/>
  </joint>
  <joint name="pod_bin_1g_pod_bin_1g_flap" type="fixed">
    <origin rpy="1.5707963267948966 0 0" xyz="0 0 0"/>
    <parent link="pod_bin_1g"/>
    <child link="pod_bin_1g_flap"/>
  </joint>
  <joint name="pod_shelf_g_pod_bin_1g_joint" type="fixed">
    <origin xyz="0.0 0 0"/>
    <parent link="pod_shelf_g"/>
    <child link="pod_bin_1g"/>
  </joint>
  <link name="pod_bin_2g"/>
  <link name="pod_bin_2g_bottom">
    <inertial>
      <mass value="0.01"/>
      <inertia ixx="0.0002835" ixy="0.0" ixz="0.0" iyy="0.0002835" iyz="0.0" izz="0.000324"/>
    </inertial>
    <visual>
      <origin xyz="0.1143 0.07619999999999999 -0.0005"/>
      <geometry>
        <box size="0.2286 0.15239999999999998 0.001"/>
      </geometry>
      <material name="yellow_fabric"/>
    </visual>
    <collision>
      <origin xyz="0.1143 0.07619999999999999 -0.0005"/>
      <geometry>
        <box size="0.2286 0.15239999999999998 0.001"/>
      </geometry>
    </collision>
  </link>
  <link name="pod_bin_2g_left">
    <inertial>
      <mass value="0.01"/>
      <inertia ixx="0.0002835" ixy="0.0" ixz="0.0" iyy="0.0002835" iyz="0.0" izz="0.000324"/>
    </inertial>
    <visual>
      <origin xyz="0.07619999999999999 0.0635 -0.0005"/>
      <geometry>
        <box size="0.15239999999999998 0.127 0.001"/>
      </geometry>
      <material name="yellow_fabric"/>
    </visual>
    <collision>
      <origin xyz="0.07619999999999999 0.0635 -0.0005"/>
      <geometry>
        <box size="0.15239999999999998 0.127 0.001"/>
      </geometry>
    </collision>
  </link>
  <link name="pod_bin_2g_right">
    <inertial>
      <mass value="0.01"/>
      <inertia ixx="0.0002835" ixy="0.0" ixz="0.0" iyy="0.0002835" iyz="0.0" izz="0.000324"/>
    </inertial>
    <visual>
      <origin xyz="0.07619999999999999 0.0635 -0.0005"/>
      <geometry>
        <box size="0.15239999999999998 0.127 0.001"/>
      </geometry>
      <material name="yellow_fabric"/>
    </visual>
    <collision>
      <origin xyz="0.07619999999999999 0.0635 -0.0005"/>
      <geometry>
        <box size="0.15239999999999998 0.127 0.001"/>
      </geometry>
    </collision>
  </link>
  <link name="pod_bin_2g_top">
    <inertial>
      <mass value="0.01"/>
      <inertia ixx="0.0002835" ixy="0.0" ixz="0.0" iyy="0.0002835" iyz="0.0" izz="0.000324"/>
    </inertial>
    <visual>
      <origin xyz="0.1143 0.07619999999999999 -0.0005"/>
      <geometry>
        <box size="0.2286 0.15239999999999998 0.001"/>
      </geometry>
      <material name="yellow_fabric"/>
    </visual>
    <collision>
      <origin xyz="0.1143 0.07619999999999999 -0.0005"/>
      <geometry>
        <box size="0.2286 0.15239999999999998 0.001"/>
      </geometry>
    </collision>
  </link>
  <link name="pod_bin_2g_back">
    <inertial>
      <mass value="0.01"/>
      <inertia ixx="0.0002835" ixy="0.0" ixz="0.0" iyy="0.0002835" iyz="0.0" izz="0.000324"/>
    </inertial>
    <visual>
      <origin xyz="0.1143 0.0635 -0.0005"/>
      <geometry>
        <box size="0.2286 0.127 0.001"/>
      </geometry>
      <material name="yellow_fabric"/>
    </visual>
    <collision>
      <origin xyz="0.1143 0.0635 -0.0005"/>
      <geometry>
        <box size="0.2286 0.127 0.001"/>
      </geometry>
    </collision>
  </link>
  <link name="pod_bin_2g_flap">
    <inertial>
      <mass value="0.01"/>
      <inertia ixx="0.0002835" ixy="0.0" ixz="0.0" iyy="0.0002835" iyz="0.0" izz="0.000324"/>
    </inertial>
    <visual>
      <origin xyz="0.1143 0.0127 -0.0005"/>
      <geometry>
        <box size="0.2286 0.0254 0.001"/>
      </geometry>
      <material name="yellow_fabric"/>
    </visual>
    <collision>
      <origin xyz="0.1143 0.0127 -0.0005"/>
      <geometry>
        <box size="0.2286 0.0254 0.001"/>
      </geometry>
    </collision>
  </link>
  <joint name="pod_bin_2g_pod_bin_2g_bottom" type="fixed">
    <parent link="pod_bin_2g"/>
    <child link="pod_bin_2g_bottom"/>
  </joint>
  <joint name="pod_bin_2g_pod_bin_2g_left" type="fixed">
    <origin rpy="1.5707963267948966 0 1.5707963267948966 " xyz="0 0 0"/>
    <parent link="pod_bin_2g"/>
    <child link="pod_bin_2g_left"/>
  </joint>
  <joint name="pod_bin_2g_pod_bin_2g_right" type="fixed">
    <origin rpy="1.5707963267948966 0 1.5707963267948966 " xyz="0.2286 0 0"/>
    <parent link="pod_bin_2g"/>
    <child link="pod_bin_2g_right"/>
  </joint>
  <joint name="pod_bin_2g_pod_bin_2g_top" type="fixed">
    <origin rpy="0 0 0" xyz="0 0 0.127"/>
    <parent link="pod_bin_2g"/>
    <child link="pod_bin_2g_top"/>
  </joint>
  <joint name="pod_bin_2g_pod_bin_2g_back" type="fixed">
    <origin rpy="1.5707963267948966 0 0" xyz="0 0.15239999999999998 0"/>
    <parent link="pod_bin_2g"/>
    <child link="pod_bin_2g_back"/>
  </joint>
  <joint name="pod_bin_2g_pod_bin_2g_flap" type="fixed">
    <origin rpy="1.5707963267948966 0 0" xyz="0 0 0"/>
    <parent link="pod_bin_2g"/>
    <child link="pod_bin_2g_flap"/>
  </joint>
  <joint name="pod_shelf_g_pod_bin_2g_joint" type="fixed">
    <origin xyz="0.2286 0 0"/>
    <parent link="pod_shelf_g"/>
    <child link="pod_bin_2g"/>
  </joint>
  <link name="pod_bin_3g"/>
  <link name="pod_bin_3g_bottom">
    <inertial>
      <mass value="0.01"/>
      <inertia ixx="0.0002835" ixy="0.0" ixz="0.0" iyy="0.0002835" iyz="0.0" izz="0.000324"/>
    </inertial>
    <visual>
      <origin xyz="0.1143 0.07619999999999999 -0.0005"/>
      <geometry>
        <box size="0.2286 0.15239999999999998 0.001"/>
      </geometry>
      <material name="yellow_fabric"/>
    </visual>
    <collision>
      <origin xyz="0.1143 0.07619999999999999 -0.0005"/>
      <geometry>
        <box size="0.2286 0.15239999999999998 0.001"/>
      </geometry>
    </collision>
  </link>
  <link name="pod_bin_3g_left">
    <inertial>
      <mass value="0.01"/>
      <inertia ixx="0.0002835" ixy="0.0" ixz="0.0" iyy="0.0002835" iyz="0.0" izz="0.000324"/>
    </inertial>
    <visual>
      <origin xyz="0.07619999999999999 0.0635 -0.0005"/>
      <geometry>
        <box size="0.15239999999999998 0.127 0.001"/>
      </geometry>
      <material name="yellow_fabric"/>
    </visual>
    <collision>
      <origin xyz="0.07619999999999999 0.0635 -0.0005"/>
      <geometry>
        <box size="0.15239999999999998 0.127 0.001"/>
      </geometry>
    </collision>
  </link>
  <link name="pod_bin_3g_right">
    <inertial>
      <mass value="0.01"/>
      <inertia ixx="0.0002835" ixy="0.0" ixz="0.0" iyy="0.0002835" iyz="0.0" izz="0.000324"/>
    </inertial>
    <visual>
      <origin xyz="0.07619999999999999 0.0635 -0.0005"/>
      <geometry>
        <box size="0.15239999999999998 0.127 0.001"/>
      </geometry>
      <material name="yellow_fabric"/>
    </visual>
    <collision>
      <origin xyz="0.07619999999999999 0.0635 -0.0005"/>
      <geometry>
        <box size="0.15239999999999998 0.127 0.001"/>
      </geometry>
    </collision>
  </link>
  <link name="pod_bin_3g_top">
    <inertial>
      <mass value="0.01"/>
      <inertia ixx="0.0002835" ixy="0.0" ixz="0.0" iyy="0.0002835" iyz="0.0" izz="0.000324"/>
    </inertial>
    <visual>
      <origin xyz="0.1143 0.07619999999999999 -0.0005"/>
      <geometry>
        <box size="0.2286 0.15239999999999998 0.001"/>
      </geometry>
      <material name="yellow_fabric"/>
    </visual>
    <collision>
      <origin xyz="0.1143 0.07619999999999999 -0.0005"/>
      <geometry>
        <box size="0.2286 0.15239999999999998 0.001"/>
      </geometry>
    </collision>
  </link>
  <link name="pod_bin_3g_back">
    <inertial>
      <mass value="0.01"/>
      <inertia ixx="0.0002835" ixy="0.0" ixz="0.0" iyy="0.0002835" iyz="0.0" izz="0.000324"/>
    </inertial>
    <visual>
      <origin xyz="0.1143 0.0635 -0.0005"/>
      <geometry>
        <box size="0.2286 0.127 0.001"/>
      </geometry>
      <material name="yellow_fabric"/>
    </visual>
    <collision>
      <origin xyz="0.1143 0.0635 -0.0005"/>
      <geometry>
        <box size="0.2286 0.127 0.001"/>
      </geometry>
    </collision>
  </link>
  <link name="pod_bin_3g_flap">
    <inertial>
      <mass value="0.01"/>
      <inertia ixx="0.0002835" ixy="0.0" ixz="0.0" iyy="0.0002835" iyz="0.0" izz="0.000324"/>
    </inertial>
    <visual>
      <origin xyz="0.1143 0.0127 -0.0005"/>
      <geometry>
        <box size="0.2286 0.0254 0.001"/>
      </geometry>
      <material name="yellow_fabric"/>
    </visual>
    <collision>
      <origin xyz="0.1143 0.0127 -0.0005"/>
      <geometry>
        <box size="0.2286 0.0254 0.001"/>
      </geometry>
    </collision>
  </link>
  <joint name="pod_bin_3g_pod_bin_3g_bottom" type="fixed">
    <parent link="pod_bin_3g"/>
    <child link="pod_bin_3g_bottom"/>
  </joint>
  <joint name="pod_bin_3g_pod_bin_3g_left" type="fixed">
    <origin rpy="1.5707963267948966 0 1.5707963267948966 " xyz="0 0 0"/>
    <parent link="pod_bin_3g"/>
    <child link="pod_bin_3g_left"/>
  </joint>
  <joint name="pod_bin_3g_pod_bin_3g_right" type="fixed">
    <origin rpy="1.5707963267948966 0 1.5707963267948966 " xyz="0.2286 0 0"/>
    <parent link="pod_bin_3g"/>
    <child link="pod_bin_3g_right"/>
  </joint>
  <joint name="pod_bin_3g_pod_bin_3g_top" type="fixed">
    <origin rpy="0 0 0" xyz="0 0 0.127"/>
    <parent link="pod_bin_3g"/>
    <child link="pod_bin_3g_top"/>
  </joint>
  <joint name="pod_bin_3g_pod_bin_3g_back" type="fixed">
    <origin rpy="1.5707963267948966 0 0" xyz="0 0.15239999999999998 0"/>
    <parent link="pod_bin_3g"/>
    <child link="pod_bin_3g_back"/>
  </joint>
  <joint name="pod_bin_3g_pod_bin_3g_flap" type="fixed">
    <origin rpy="1.5707963267948966 0 0" xyz="0 0 0"/>
    <parent link="pod_bin_3g"/>
    <child link="pod_bin_3g_flap"/>
  </joint>
  <joint name="pod_shelf_g_pod_bin_3g_joint" type="fixed">
    <origin xyz="0.4572 0 0"/>
    <parent link="pod_shelf_g"/>
    <child link="pod_bin_3g"/>
  </joint>
  <link name="pod_bin_4g"/>
  <link name="pod_bin_4g_bottom">
    <inertial>
      <mass value="0.01"/>
      <inertia ixx="0.0002835" ixy="0.0" ixz="0.0" iyy="0.0002835" iyz="0.0" izz="0.000324"/>
    </inertial>
    <visual>
      <origin xyz="0.1143 0.07619999999999999 -0.0005"/>
      <geometry>
        <box size="0.2286 0.15239999999999998 0.001"/>
      </geometry>
      <material name="yellow_fabric"/>
    </visual>
    <collision>
      <origin xyz="0.1143 0.07619999999999999 -0.0005"/>
      <geometry>
        <box size="0.2286 0.15239999999999998 0.001"/>
      </geometry>
    </collision>
  </link>
  <link name="pod_bin_4g_left">
    <inertial>
      <mass value="0.01"/>
      <inertia ixx="0.0002835" ixy="0.0" ixz="0.0" iyy="0.0002835" iyz="0.0" izz="0.000324"/>
    </inertial>
    <visual>
      <origin xyz="0.07619999999999999 0.0635 -0.0005"/>
      <geometry>
        <box size="0.15239999999999998 0.127 0.001"/>
      </geometry>
      <material name="yellow_fabric"/>
    </visual>
    <collision>
      <origin xyz="0.07619999999999999 0.0635 -0.0005"/>
      <geometry>
        <box size="0.15239999999999998 0.127 0.001"/>
      </geometry>
    </collision>
  </link>
  <link name="pod_bin_4g_right">
    <inertial>
      <mass value="0.01"/>
      <inertia ixx="0.0002835" ixy="0.0" ixz="0.0" iyy="0.0002835" iyz="0.0" izz="0.000324"/>
    </inertial>
    <visual>
      <origin xyz="0.07619999999999999 0.0635 -0.0005"/>
      <geometry>
        <box size="0.15239999999999998 0.127 0.001"/>
      </geometry>
      <material name="yellow_fabric"/>
    </visual>
    <collision>
      <origin xyz="0.07619999999999999 0.0635 -0.0005"/>
      <geometry>
        <box size="0.15239999999999998 0.127 0.001"/>
      </geometry>
    </collision>
  </link>
  <link name="pod_bin_4g_top">
    <inertial>
      <mass value="0.01"/>
      <inertia ixx="0.0002835" ixy="0.0" ixz="0.0" iyy="0.0002835" iyz="0.0" izz="0.000324"/>
    </inertial>
    <visual>
      <origin xyz="0.1143 0.07619999999999999 -0.0005"/>
      <geometry>
        <box size="0.2286 0.15239999999999998 0.001"/>
      </geometry>
      <material name="yellow_fabric"/>
    </visual>
    <collision>
      <origin xyz="0.1143 0.07619999999999999 -0.0005"/>
      <geometry>
        <box size="0.2286 0.15239999999999998 0.001"/>
      </geometry>
    </collision>
  </link>
  <link name="pod_bin_4g_back">
    <inertial>
      <mass value="0.01"/>
      <inertia ixx="0.0002835" ixy="0.0" ixz="0.0" iyy="0.0002835" iyz="0.0" izz="0.000324"/>
    </inertial>
    <visual>
      <origin xyz="0.1143 0.0635 -0.0005"/>
      <geometry>
        <box size="0.2286 0.127 0.001"/>
      </geometry>
      <material name="yellow_fabric"/>
    </visual>
    <collision>
      <origin xyz="0.1143 0.0635 -0.0005"/>
      <geometry>
        <box size="0.2286 0.127 0.001"/>
      </geometry>
    </collision>
  </link>
  <link name="pod_bin_4g_flap">
    <inertial>
      <mass value="0.01"/>
      <inertia ixx="0.0002835" ixy="0.0" ixz="0.0" iyy="0.0002835" iyz="0.0" izz="0.000324"/>
    </inertial>
    <visual>
      <origin xyz="0.1143 0.0127 -0.0005"/>
      <geometry>
        <box size="0.2286 0.0254 0.001"/>
      </geometry>
      <material name="yellow_fabric"/>
    </visual>
    <collision>
      <origin xyz="0.1143 0.0127 -0.0005"/>
      <geometry>
        <box size="0.2286 0.0254 0.001"/>
      </geometry>
    </collision>
  </link>
  <joint name="pod_bin_4g_pod_bin_4g_bottom" type="fixed">
    <parent link="pod_bin_4g"/>
    <child link="pod_bin_4g_bottom"/>
  </joint>
  <joint name="pod_bin_4g_pod_bin_4g_left" type="fixed">
    <origin rpy="1.5707963267948966 0 1.5707963267948966 " xyz="0 0 0"/>
    <parent link="pod_bin_4g"/>
    <child link="pod_bin_4g_left"/>
  </joint>
  <joint name="pod_bin_4g_pod_bin_4g_right" type="fixed">
    <origin rpy="1.5707963267948966 0 1.5707963267948966 " xyz="0.2286 0 0"/>
    <parent link="pod_bin_4g"/>
    <child link="pod_bin_4g_right"/>
  </joint>
  <joint name="pod_bin_4g_pod_bin_4g_top" type="fixed">
    <origin rpy="0 0 0" xyz="0 0 0.127"/>
    <parent link="pod_bin_4g"/>
    <child link="pod_bin_4g_top"/>
  </joint>
  <joint name="pod_bin_4g_pod_bin_4g_back" type="fixed">
    <origin rpy="1.5707963267948966 0 0" xyz="0 0.15239999999999998 0"/>
    <parent link="pod_bin_4g"/>
    <child link="pod_bin_4g_back"/>
  </joint>
  <joint name="pod_bin_4g_pod_bin_4g_flap" type="fixed">
    <origin rpy="1.5707963267948966 0 0" xyz="0 0 0"/>
    <parent link="pod_bin_4g"/>
    <child link="pod_bin_4g_flap"/>
  </joint>
  <joint name="pod_shelf_g_pod_bin_4g_joint" type="fixed">
    <origin xyz="0.6858 0 0"/>
    <parent link="pod_shelf_g"/>
    <child link="pod_bin_4g"/>
  </joint>
  <joint name="pod_fabric_base_pod_shelf_g_joint" type="fixed">
    <origin xyz="0 0 1.0413999999999999"/>
    <parent link="pod_fabric_base"/>
    <child link="pod_shelf_g"/>
  </joint>
  <link name="pod_shelf_h"/>
  <link name="pod_bin_1h"/>
  <link name="pod_bin_1h_bottom">
    <inertial>
      <mass value="0.01"/>
      <inertia ixx="0.0002835" ixy="0.0" ixz="0.0" iyy="0.0002835" iyz="0.0" izz="0.000324"/>
    </inertial>
    <visual>
      <origin xyz="0.1143 0.07619999999999999 -0.0005"/>
      <geometry>
        <box size="0.2286 0.15239999999999998 0.001"/>
      </geometry>
      <material name="yellow_fabric"/>
    </visual>
    <collision>
      <origin xyz="0.1143 0.07619999999999999 -0.0005"/>
      <geometry>
        <box size="0.2286 0.15239999999999998 0.001"/>
      </geometry>
    </collision>
  </link>
  <link name="pod_bin_1h_left">
    <inertial>
      <mass value="0.01"/>
      <inertia ixx="0.0002835" ixy="0.0" ixz="0.0" iyy="0.0002835" iyz="0.0" izz="0.000324"/>
    </inertial>
    <visual>
      <origin xyz="0.07619999999999999 0.07619999999999999 -0.0005"/>
      <geometry>
        <box size="0.15239999999999998 0.15239999999999998 0.001"/>
      </geometry>
      <material name="yellow_fabric"/>
    </visual>
    <collision>
      <origin xyz="0.07619999999999999 0.07619999999999999 -0.0005"/>
      <geometry>
        <box size="0.15239999999999998 0.15239999999999998 0.001"/>
      </geometry>
    </collision>
  </link>
  <link name="pod_bin_1h_right">
    <inertial>
      <mass value="0.01"/>
      <inertia ixx="0.0002835" ixy="0.0" ixz="0.0" iyy="0.0002835" iyz="0.0" izz="0.000324"/>
    </inertial>
    <visual>
      <origin xyz="0.07619999999999999 0.07619999999999999 -0.0005"/>
      <geometry>
        <box size="0.15239999999999998 0.15239999999999998 0.001"/>
      </geometry>
      <material name="yellow_fabric"/>
    </visual>
    <collision>
      <origin xyz="0.07619999999999999 0.07619999999999999 -0.0005"/>
      <geometry>
        <box size="0.15239999999999998 0.15239999999999998 0.001"/>
      </geometry>
    </collision>
  </link>
  <link name="pod_bin_1h_top">
    <inertial>
      <mass value="0.01"/>
      <inertia ixx="0.0002835" ixy="0.0" ixz="0.0" iyy="0.0002835" iyz="0.0" izz="0.000324"/>
    </inertial>
    <visual>
      <origin xyz="0.1143 0.07619999999999999 -0.0005"/>
      <geometry>
        <box size="0.2286 0.15239999999999998 0.001"/>
      </geometry>
      <material name="yellow_fabric"/>
    </visual>
    <collision>
      <origin xyz="0.1143 0.07619999999999999 -0.0005"/>
      <geometry>
        <box size="0.2286 0.15239999999999998 0.001"/>
      </geometry>
    </collision>
  </link>
  <link name="pod_bin_1h_back">
    <inertial>
      <mass value="0.01"/>
      <inertia ixx="0.0002835" ixy="0.0" ixz="0.0" iyy="0.0002835" iyz="0.0" izz="0.000324"/>
    </inertial>
    <visual>
      <origin xyz="0.1143 0.07619999999999999 -0.0005"/>
      <geometry>
        <box size="0.2286 0.15239999999999998 0.001"/>
      </geometry>
      <material name="yellow_fabric"/>
    </visual>
    <collision>
      <origin xyz="0.1143 0.07619999999999999 -0.0005"/>
      <geometry>
        <box size="0.2286 0.15239999999999998 0.001"/>
      </geometry>
    </collision>
  </link>
  <link name="pod_bin_1h_flap">
    <inertial>
      <mass value="0.01"/>
      <inertia ixx="0.0002835" ixy="0.0" ixz="0.0" iyy="0.0002835" iyz="0.0" izz="0.000324"/>
    </inertial>
    <visual>
      <origin xyz="0.1143 0.0127 -0.0005"/>
      <geometry>
        <box size="0.2286 0.0254 0.001"/>
      </geometry>
      <material name="yellow_fabric"/>
    </visual>
    <collision>
      <origin xyz="0.1143 0.0127 -0.0005"/>
      <geometry>
        <box size="0.2286 0.0254 0.001"/>
      </geometry>
    </collision>
  </link>
  <joint name="pod_bin_1h_pod_bin_1h_bottom" type="fixed">
    <parent link="pod_bin_1h"/>
    <child link="pod_bin_1h_bottom"/>
  </joint>
  <joint name="pod_bin_1h_pod_bin_1h_left" type="fixed">
    <origin rpy="1.5707963267948966 0 1.5707963267948966 " xyz="0 0 0"/>
    <parent link="pod_bin_1h"/>
    <child link="pod_bin_1h_left"/>
  </joint>
  <joint name="pod_bin_1h_pod_bin_1h_right" type="fixed">
    <origin rpy="1.5707963267948966 0 1.5707963267948966 " xyz="0.2286 0 0"/>
    <parent link="pod_bin_1h"/>
    <child link="pod_bin_1h_right"/>
  </joint>
  <joint name="pod_bin_1h_pod_bin_1h_top" type="fixed">
    <origin rpy="0 0 0" xyz="0 0 0.15239999999999998"/>
    <parent link="pod_bin_1h"/>
    <child link="pod_bin_1h_top"/>
  </joint>
  <joint name="pod_bin_1h_pod_bin_1h_back" type="fixed">
    <origin rpy="1.5707963267948966 0 0" xyz="0 0.15239999999999998 0"/>
    <parent link="pod_bin_1h"/>
    <child link="pod_bin_1h_back"/>
  </joint>
  <joint name="pod_bin_1h_pod_bin_1h_flap" type="fixed">
    <origin rpy="1.5707963267948966 0 0" xyz="0 0 0"/>
    <parent link="pod_bin_1h"/>
    <child link="pod_bin_1h_flap"/>
  </joint>
  <joint name="pod_shelf_h_pod_bin_1h_joint" type="fixed">
    <origin xyz="0.0 0 0"/>
    <parent link="pod_shelf_h"/>
    <child link="pod_bin_1h"/>
  </joint>
  <link name="pod_bin_2h"/>
  <link name="pod_bin_2h_bottom">
    <inertial>
      <mass value="0.01"/>
      <inertia ixx="0.0002835" ixy="0.0" ixz="0.0" iyy="0.0002835" iyz="0.0" izz="0.000324"/>
    </inertial>
    <visual>
      <origin xyz="0.1143 0.07619999999999999 -0.0005"/>
      <geometry>
        <box size="0.2286 0.15239999999999998 0.001"/>
      </geometry>
      <material name="yellow_fabric"/>
    </visual>
    <collision>
      <origin xyz="0.1143 0.07619999999999999 -0.0005"/>
      <geometry>
        <box size="0.2286 0.15239999999999998 0.001"/>
      </geometry>
    </collision>
  </link>
  <link name="pod_bin_2h_left">
    <inertial>
      <mass value="0.01"/>
      <inertia ixx="0.0002835" ixy="0.0" ixz="0.0" iyy="0.0002835" iyz="0.0" izz="0.000324"/>
    </inertial>
    <visual>
      <origin xyz="0.07619999999999999 0.07619999999999999 -0.0005"/>
      <geometry>
        <box size="0.15239999999999998 0.15239999999999998 0.001"/>
      </geometry>
      <material name="yellow_fabric"/>
    </visual>
    <collision>
      <origin xyz="0.07619999999999999 0.07619999999999999 -0.0005"/>
      <geometry>
        <box size="0.15239999999999998 0.15239999999999998 0.001"/>
      </geometry>
    </collision>
  </link>
  <link name="pod_bin_2h_right">
    <inertial>
      <mass value="0.01"/>
      <inertia ixx="0.0002835" ixy="0.0" ixz="0.0" iyy="0.0002835" iyz="0.0" izz="0.000324"/>
    </inertial>
    <visual>
      <origin xyz="0.07619999999999999 0.07619999999999999 -0.0005"/>
      <geometry>
        <box size="0.15239999999999998 0.15239999999999998 0.001"/>
      </geometry>
      <material name="yellow_fabric"/>
    </visual>
    <collision>
      <origin xyz="0.07619999999999999 0.07619999999999999 -0.0005"/>
      <geometry>
        <box size="0.15239999999999998 0.15239999999999998 0.001"/>
      </geometry>
    </collision>
  </link>
  <link name="pod_bin_2h_top">
    <inertial>
      <mass value="0.01"/>
      <inertia ixx="0.0002835" ixy="0.0" ixz="0.0" iyy="0.0002835" iyz="0.0" izz="0.000324"/>
    </inertial>
    <visual>
      <origin xyz="0.1143 0.07619999999999999 -0.0005"/>
      <geometry>
        <box size="0.2286 0.15239999999999998 0.001"/>
      </geometry>
      <material name="yellow_fabric"/>
    </visual>
    <collision>
      <origin xyz="0.1143 0.07619999999999999 -0.0005"/>
      <geometry>
        <box size="0.2286 0.15239999999999998 0.001"/>
      </geometry>
    </collision>
  </link>
  <link name="pod_bin_2h_back">
    <inertial>
      <mass value="0.01"/>
      <inertia ixx="0.0002835" ixy="0.0" ixz="0.0" iyy="0.0002835" iyz="0.0" izz="0.000324"/>
    </inertial>
    <visual>
      <origin xyz="0.1143 0.07619999999999999 -0.0005"/>
      <geometry>
        <box size="0.2286 0.15239999999999998 0.001"/>
      </geometry>
      <material name="yellow_fabric"/>
    </visual>
    <collision>
      <origin xyz="0.1143 0.07619999999999999 -0.0005"/>
      <geometry>
        <box size="0.2286 0.15239999999999998 0.001"/>
      </geometry>
    </collision>
  </link>
  <link name="pod_bin_2h_flap">
    <inertial>
      <mass value="0.01"/>
      <inertia ixx="0.0002835" ixy="0.0" ixz="0.0" iyy="0.0002835" iyz="0.0" izz="0.000324"/>
    </inertial>
    <visual>
      <origin xyz="0.1143 0.0127 -0.0005"/>
      <geometry>
        <box size="0.2286 0.0254 0.001"/>
      </geometry>
      <material name="yellow_fabric"/>
    </visual>
    <collision>
      <origin xyz="0.1143 0.0127 -0.0005"/>
      <geometry>
        <box size="0.2286 0.0254 0.001"/>
      </geometry>
    </collision>
  </link>
  <joint name="pod_bin_2h_pod_bin_2h_bottom" type="fixed">
    <parent link="pod_bin_2h"/>
    <child link="pod_bin_2h_bottom"/>
  </joint>
  <joint name="pod_bin_2h_pod_bin_2h_left" type="fixed">
    <origin rpy="1.5707963267948966 0 1.5707963267948966 " xyz="0 0 0"/>
    <parent link="pod_bin_2h"/>
    <child link="pod_bin_2h_left"/>
  </joint>
  <joint name="pod_bin_2h_pod_bin_2h_right" type="fixed">
    <origin rpy="1.5707963267948966 0 1.5707963267948966 " xyz="0.2286 0 0"/>
    <parent link="pod_bin_2h"/>
    <child link="pod_bin_2h_right"/>
  </joint>
  <joint name="pod_bin_2h_pod_bin_2h_top" type="fixed">
    <origin rpy="0 0 0" xyz="0 0 0.15239999999999998"/>
    <parent link="pod_bin_2h"/>
    <child link="pod_bin_2h_top"/>
  </joint>
  <joint name="pod_bin_2h_pod_bin_2h_back" type="fixed">
    <origin rpy="1.5707963267948966 0 0" xyz="0 0.15239999999999998 0"/>
    <parent link="pod_bin_2h"/>
    <child link="pod_bin_2h_back"/>
  </joint>
  <joint name="pod_bin_2h_pod_bin_2h_flap" type="fixed">
    <origin rpy="1.5707963267948966 0 0" xyz="0 0 0"/>
    <parent link="pod_bin_2h"/>
    <child link="pod_bin_2h_flap"/>
  </joint>
  <joint name="pod_shelf_h_pod_bin_2h_joint" type="fixed">
    <origin xyz="0.2286 0 0"/>
    <parent link="pod_shelf_h"/>
    <child link="pod_bin_2h"/>
  </joint>
  <link name="pod_bin_3h"/>
  <link name="pod_bin_3h_bottom">
    <inertial>
      <mass value="0.01"/>
      <inertia ixx="0.0002835" ixy="0.0" ixz="0.0" iyy="0.0002835" iyz="0.0" izz="0.000324"/>
    </inertial>
    <visual>
      <origin xyz="0.1143 0.07619999999999999 -0.0005"/>
      <geometry>
        <box size="0.2286 0.15239999999999998 0.001"/>
      </geometry>
      <material name="yellow_fabric"/>
    </visual>
    <collision>
      <origin xyz="0.1143 0.07619999999999999 -0.0005"/>
      <geometry>
        <box size="0.2286 0.15239999999999998 0.001"/>
      </geometry>
    </collision>
  </link>
  <link name="pod_bin_3h_left">
    <inertial>
      <mass value="0.01"/>
      <inertia ixx="0.0002835" ixy="0.0" ixz="0.0" iyy="0.0002835" iyz="0.0" izz="0.000324"/>
    </inertial>
    <visual>
      <origin xyz="0.07619999999999999 0.07619999999999999 -0.0005"/>
      <geometry>
        <box size="0.15239999999999998 0.15239999999999998 0.001"/>
      </geometry>
      <material name="yellow_fabric"/>
    </visual>
    <collision>
      <origin xyz="0.07619999999999999 0.07619999999999999 -0.0005"/>
      <geometry>
        <box size="0.15239999999999998 0.15239999999999998 0.001"/>
      </geometry>
    </collision>
  </link>
  <link name="pod_bin_3h_right">
    <inertial>
      <mass value="0.01"/>
      <inertia ixx="0.0002835" ixy="0.0" ixz="0.0" iyy="0.0002835" iyz="0.0" izz="0.000324"/>
    </inertial>
    <visual>
      <origin xyz="0.07619999999999999 0.07619999999999999 -0.0005"/>
      <geometry>
        <box size="0.15239999999999998 0.15239999999999998 0.001"/>
      </geometry>
      <material name="yellow_fabric"/>
    </visual>
    <collision>
      <origin xyz="0.07619999999999999 0.07619999999999999 -0.0005"/>
      <geometry>
        <box size="0.15239999999999998 0.15239999999999998 0.001"/>
      </geometry>
    </collision>
  </link>
  <link name="pod_bin_3h_top">
    <inertial>
      <mass value="0.01"/>
      <inertia ixx="0.0002835" ixy="0.0" ixz="0.0" iyy="0.0002835" iyz="0.0" izz="0.000324"/>
    </inertial>
    <visual>
      <origin xyz="0.1143 0.07619999999999999 -0.0005"/>
      <geometry>
        <box size="0.2286 0.15239999999999998 0.001"/>
      </geometry>
      <material name="yellow_fabric"/>
    </visual>
    <collision>
      <origin xyz="0.1143 0.07619999999999999 -0.0005"/>
      <geometry>
        <box size="0.2286 0.15239999999999998 0.001"/>
      </geometry>
    </collision>
  </link>
  <link name="pod_bin_3h_back">
    <inertial>
      <mass value="0.01"/>
      <inertia ixx="0.0002835" ixy="0.0" ixz="0.0" iyy="0.0002835" iyz="0.0" izz="0.000324"/>
    </inertial>
    <visual>
      <origin xyz="0.1143 0.07619999999999999 -0.0005"/>
      <geometry>
        <box size="0.2286 0.15239999999999998 0.001"/>
      </geometry>
      <material name="yellow_fabric"/>
    </visual>
    <collision>
      <origin xyz="0.1143 0.07619999999999999 -0.0005"/>
      <geometry>
        <box size="0.2286 0.15239999999999998 0.001"/>
      </geometry>
    </collision>
  </link>
  <link name="pod_bin_3h_flap">
    <inertial>
      <mass value="0.01"/>
      <inertia ixx="0.0002835" ixy="0.0" ixz="0.0" iyy="0.0002835" iyz="0.0" izz="0.000324"/>
    </inertial>
    <visual>
      <origin xyz="0.1143 0.0127 -0.0005"/>
      <geometry>
        <box size="0.2286 0.0254 0.001"/>
      </geometry>
      <material name="yellow_fabric"/>
    </visual>
    <collision>
      <origin xyz="0.1143 0.0127 -0.0005"/>
      <geometry>
        <box size="0.2286 0.0254 0.001"/>
      </geometry>
    </collision>
  </link>
  <joint name="pod_bin_3h_pod_bin_3h_bottom" type="fixed">
    <parent link="pod_bin_3h"/>
    <child link="pod_bin_3h_bottom"/>
  </joint>
  <joint name="pod_bin_3h_pod_bin_3h_left" type="fixed">
    <origin rpy="1.5707963267948966 0 1.5707963267948966 " xyz="0 0 0"/>
    <parent link="pod_bin_3h"/>
    <child link="pod_bin_3h_left"/>
  </joint>
  <joint name="pod_bin_3h_pod_bin_3h_right" type="fixed">
    <origin rpy="1.5707963267948966 0 1.5707963267948966 " xyz="0.2286 0 0"/>
    <parent link="pod_bin_3h"/>
    <child link="pod_bin_3h_right"/>
  </joint>
  <joint name="pod_bin_3h_pod_bin_3h_top" type="fixed">
    <origin rpy="0 0 0" xyz="0 0 0.15239999999999998"/>
    <parent link="pod_bin_3h"/>
    <child link="pod_bin_3h_top"/>
  </joint>
  <joint name="pod_bin_3h_pod_bin_3h_back" type="fixed">
    <origin rpy="1.5707963267948966 0 0" xyz="0 0.15239999999999998 0"/>
    <parent link="pod_bin_3h"/>
    <child link="pod_bin_3h_back"/>
  </joint>
  <joint name="pod_bin_3h_pod_bin_3h_flap" type="fixed">
    <origin rpy="1.5707963267948966 0 0" xyz="0 0 0"/>
    <parent link="pod_bin_3h"/>
    <child link="pod_bin_3h_flap"/>
  </joint>
  <joint name="pod_shelf_h_pod_bin_3h_joint" type="fixed">
    <origin xyz="0.4572 0 0"/>
    <parent link="pod_shelf_h"/>
    <child link="pod_bin_3h"/>
  </joint>
  <link name="pod_bin_4h"/>
  <link name="pod_bin_4h_bottom">
    <inertial>
      <mass value="0.01"/>
      <inertia ixx="0.0002835" ixy="0.0" ixz="0.0" iyy="0.0002835" iyz="0.0" izz="0.000324"/>
    </inertial>
    <visual>
      <origin xyz="0.1143 0.07619999999999999 -0.0005"/>
      <geometry>
        <box size="0.2286 0.15239999999999998 0.001"/>
      </geometry>
      <material name="yellow_fabric"/>
    </visual>
    <collision>
      <origin xyz="0.1143 0.07619999999999999 -0.0005"/>
      <geometry>
        <box size="0.2286 0.15239999999999998 0.001"/>
      </geometry>
    </collision>
  </link>
  <link name="pod_bin_4h_left">
    <inertial>
      <mass value="0.01"/>
      <inertia ixx="0.0002835" ixy="0.0" ixz="0.0" iyy="0.0002835" iyz="0.0" izz="0.000324"/>
    </inertial>
    <visual>
      <origin xyz="0.07619999999999999 0.07619999999999999 -0.0005"/>
      <geometry>
        <box size="0.15239999999999998 0.15239999999999998 0.001"/>
      </geometry>
      <material name="yellow_fabric"/>
    </visual>
    <collision>
      <origin xyz="0.07619999999999999 0.07619999999999999 -0.0005"/>
      <geometry>
        <box size="0.15239999999999998 0.15239999999999998 0.001"/>
      </geometry>
    </collision>
  </link>
  <link name="pod_bin_4h_right">
    <inertial>
      <mass value="0.01"/>
      <inertia ixx="0.0002835" ixy="0.0" ixz="0.0" iyy="0.0002835" iyz="0.0" izz="0.000324"/>
    </inertial>
    <visual>
      <origin xyz="0.07619999999999999 0.07619999999999999 -0.0005"/>
      <geometry>
        <box size="0.15239999999999998 0.15239999999999998 0.001"/>
      </geometry>
      <material name="yellow_fabric"/>
    </visual>
    <collision>
      <origin xyz="0.07619999999999999 0.07619999999999999 -0.0005"/>
      <geometry>
        <box size="0.15239999999999998 0.15239999999999998 0.001"/>
      </geometry>
    </collision>
  </link>
  <link name="pod_bin_4h_top">
    <inertial>
      <mass value="0.01"/>
      <inertia ixx="0.0002835" ixy="0.0" ixz="0.0" iyy="0.0002835" iyz="0.0" izz="0.000324"/>
    </inertial>
    <visual>
      <origin xyz="0.1143 0.07619999999999999 -0.0005"/>
      <geometry>
        <box size="0.2286 0.15239999999999998 0.001"/>
      </geometry>
      <material name="yellow_fabric"/>
    </visual>
    <collision>
      <origin xyz="0.1143 0.07619999999999999 -0.0005"/>
      <geometry>
        <box size="0.2286 0.15239999999999998 0.001"/>
      </geometry>
    </collision>
  </link>
  <link name="pod_bin_4h_back">
    <inertial>
      <mass value="0.01"/>
      <inertia ixx="0.0002835" ixy="0.0" ixz="0.0" iyy="0.0002835" iyz="0.0" izz="0.000324"/>
    </inertial>
    <visual>
      <origin xyz="0.1143 0.07619999999999999 -0.0005"/>
      <geometry>
        <box size="0.2286 0.15239999999999998 0.001"/>
      </geometry>
      <material name="yellow_fabric"/>
    </visual>
    <collision>
      <origin xyz="0.1143 0.07619999999999999 -0.0005"/>
      <geometry>
        <box size="0.2286 0.15239999999999998 0.001"/>
      </geometry>
    </collision>
  </link>
  <link name="pod_bin_4h_flap">
    <inertial>
      <mass value="0.01"/>
      <inertia ixx="0.0002835" ixy="0.0" ixz="0.0" iyy="0.0002835" iyz="0.0" izz="0.000324"/>
    </inertial>
    <visual>
      <origin xyz="0.1143 0.0127 -0.0005"/>
      <geometry>
        <box size="0.2286 0.0254 0.001"/>
      </geometry>
      <material name="yellow_fabric"/>
    </visual>
    <collision>
      <origin xyz="0.1143 0.0127 -0.0005"/>
      <geometry>
        <box size="0.2286 0.0254 0.001"/>
      </geometry>
    </collision>
  </link>
  <joint name="pod_bin_4h_pod_bin_4h_bottom" type="fixed">
    <parent link="pod_bin_4h"/>
    <child link="pod_bin_4h_bottom"/>
  </joint>
  <joint name="pod_bin_4h_pod_bin_4h_left" type="fixed">
    <origin rpy="1.5707963267948966 0 1.5707963267948966 " xyz="0 0 0"/>
    <parent link="pod_bin_4h"/>
    <child link="pod_bin_4h_left"/>
  </joint>
  <joint name="pod_bin_4h_pod_bin_4h_right" type="fixed">
    <origin rpy="1.5707963267948966 0 1.5707963267948966 " xyz="0.2286 0 0"/>
    <parent link="pod_bin_4h"/>
    <child link="pod_bin_4h_right"/>
  </joint>
  <joint name="pod_bin_4h_pod_bin_4h_top" type="fixed">
    <origin rpy="0 0 0" xyz="0 0 0.15239999999999998"/>
    <parent link="pod_bin_4h"/>
    <child link="pod_bin_4h_top"/>
  </joint>
  <joint name="pod_bin_4h_pod_bin_4h_back" type="fixed">
    <origin rpy="1.5707963267948966 0 0" xyz="0 0.15239999999999998 0"/>
    <parent link="pod_bin_4h"/>
    <child link="pod_bin_4h_back"/>
  </joint>
  <joint name="pod_bin_4h_pod_bin_4h_flap" type="fixed">
    <origin rpy="1.5707963267948966 0 0" xyz="0 0 0"/>
    <parent link="pod_bin_4h"/>
    <child link="pod_bin_4h_flap"/>
  </joint>
  <joint name="pod_shelf_h_pod_bin_4h_joint" type="fixed">
    <origin xyz="0.6858 0 0"/>
    <parent link="pod_shelf_h"/>
    <child link="pod_bin_4h"/>
  </joint>
  <joint name="pod_fabric_base_pod_shelf_h_joint" type="fixed">
    <origin xyz="0 0 1.1683999999999999"/>
    <parent link="pod_fabric_base"/>
    <child link="pod_shelf_h"/>
  </joint>
  <link name="pod_shelf_i"/>
  <link name="pod_bin_1i"/>
  <link name="pod_bin_1i_bottom">
    <inertial>
      <mass value="0.01"/>
      <inertia ixx="0.0002835" ixy="0.0" ixz="0.0" iyy="0.0002835" iyz="0.0" izz="0.000324"/>
    </inertial>
    <visual>
      <origin xyz="0.1143 0.07619999999999999 -0.0005"/>
      <geometry>
        <box size="0.2286 0.15239999999999998 0.001"/>
      </geometry>
      <material name="yellow_fabric"/>
    </visual>
    <collision>
      <origin xyz="0.1143 0.07619999999999999 -0.0005"/>
      <geometry>
        <box size="0.2286 0.15239999999999998 0.001"/>
      </geometry>
    </collision>
  </link>
  <link name="pod_bin_1i_left">
    <inertial>
      <mass value="0.01"/>
      <inertia ixx="0.0002835" ixy="0.0" ixz="0.0" iyy="0.0002835" iyz="0.0" izz="0.000324"/>
    </inertial>
    <visual>
      <origin xyz="0.07619999999999999 0.0635 -0.0005"/>
      <geometry>
        <box size="0.15239999999999998 0.127 0.001"/>
      </geometry>
      <material name="yellow_fabric"/>
    </visual>
    <collision>
      <origin xyz="0.07619999999999999 0.0635 -0.0005"/>
      <geometry>
        <box size="0.15239999999999998 0.127 0.001"/>
      </geometry>
    </collision>
  </link>
  <link name="pod_bin_1i_right">
    <inertial>
      <mass value="0.01"/>
      <inertia ixx="0.0002835" ixy="0.0" ixz="0.0" iyy="0.0002835" iyz="0.0" izz="0.000324"/>
    </inertial>
    <visual>
      <origin xyz="0.07619999999999999 0.0635 -0.0005"/>
      <geometry>
        <box size="0.15239999999999998 0.127 0.001"/>
      </geometry>
      <material name="yellow_fabric"/>
    </visual>
    <collision>
      <origin xyz="0.07619999999999999 0.0635 -0.0005"/>
      <geometry>
        <box size="0.15239999999999998 0.127 0.001"/>
      </geometry>
    </collision>
  </link>
  <link name="pod_bin_1i_top">
    <inertial>
      <mass value="0.01"/>
      <inertia ixx="0.0002835" ixy="0.0" ixz="0.0" iyy="0.0002835" iyz="0.0" izz="0.000324"/>
    </inertial>
    <visual>
      <origin xyz="0.1143 0.07619999999999999 -0.0005"/>
      <geometry>
        <box size="0.2286 0.15239999999999998 0.001"/>
      </geometry>
      <material name="yellow_fabric"/>
    </visual>
    <collision>
      <origin xyz="0.1143 0.07619999999999999 -0.0005"/>
      <geometry>
        <box size="0.2286 0.15239999999999998 0.001"/>
      </geometry>
    </collision>
  </link>
  <link name="pod_bin_1i_back">
    <inertial>
      <mass value="0.01"/>
      <inertia ixx="0.0002835" ixy="0.0" ixz="0.0" iyy="0.0002835" iyz="0.0" izz="0.000324"/>
    </inertial>
    <visual>
      <origin xyz="0.1143 0.0635 -0.0005"/>
      <geometry>
        <box size="0.2286 0.127 0.001"/>
      </geometry>
      <material name="yellow_fabric"/>
    </visual>
    <collision>
      <origin xyz="0.1143 0.0635 -0.0005"/>
      <geometry>
        <box size="0.2286 0.127 0.001"/>
      </geometry>
    </collision>
  </link>
  <link name="pod_bin_1i_flap">
    <inertial>
      <mass value="0.01"/>
      <inertia ixx="0.0002835" ixy="0.0" ixz="0.0" iyy="0.0002835" iyz="0.0" izz="0.000324"/>
    </inertial>
    <visual>
      <origin xyz="0.1143 0.0127 -0.0005"/>
      <geometry>
        <box size="0.2286 0.0254 0.001"/>
      </geometry>
      <material name="yellow_fabric"/>
    </visual>
    <collision>
      <origin xyz="0.1143 0.0127 -0.0005"/>
      <geometry>
        <box size="0.2286 0.0254 0.001"/>
      </geometry>
    </collision>
  </link>
  <joint name="pod_bin_1i_pod_bin_1i_bottom" type="fixed">
    <parent link="pod_bin_1i"/>
    <child link="pod_bin_1i_bottom"/>
  </joint>
  <joint name="pod_bin_1i_pod_bin_1i_left" type="fixed">
    <origin rpy="1.5707963267948966 0 1.5707963267948966 " xyz="0 0 0"/>
    <parent link="pod_bin_1i"/>
    <child link="pod_bin_1i_left"/>
  </joint>
  <joint name="pod_bin_1i_pod_bin_1i_right" type="fixed">
    <origin rpy="1.5707963267948966 0 1.5707963267948966 " xyz="0.2286 0 0"/>
    <parent link="pod_bin_1i"/>
    <child link="pod_bin_1i_right"/>
  </joint>
  <joint name="pod_bin_1i_pod_bin_1i_top" type="fixed">
    <origin rpy="0 0 0" xyz="0 0 0.127"/>
    <parent link="pod_bin_1i"/>
    <child link="pod_bin_1i_top"/>
  </joint>
  <joint name="pod_bin_1i_pod_bin_1i_back" type="fixed">
    <origin rpy="1.5707963267948966 0 0" xyz="0 0.15239999999999998 0"/>
    <parent link="pod_bin_1i"/>
    <child link="pod_bin_1i_back"/>
  </joint>
  <joint name="pod_bin_1i_pod_bin_1i_flap" type="fixed">
    <origin rpy="1.5707963267948966 0 0" xyz="0 0 0"/>
    <parent link="pod_bin_1i"/>
    <child link="pod_bin_1i_flap"/>
  </joint>
  <joint name="pod_shelf_i_pod_bin_1i_joint" type="fixed">
    <origin xyz="0.0 0 0"/>
    <parent link="pod_shelf_i"/>
    <child link="pod_bin_1i"/>
  </joint>
  <link name="pod_bin_2i"/>
  <link name="pod_bin_2i_bottom">
    <inertial>
      <mass value="0.01"/>
      <inertia ixx="0.0002835" ixy="0.0" ixz="0.0" iyy="0.0002835" iyz="0.0" izz="0.000324"/>
    </inertial>
    <visual>
      <origin xyz="0.1143 0.07619999999999999 -0.0005"/>
      <geometry>
        <box size="0.2286 0.15239999999999998 0.001"/>
      </geometry>
      <material name="yellow_fabric"/>
    </visual>
    <collision>
      <origin xyz="0.1143 0.07619999999999999 -0.0005"/>
      <geometry>
        <box size="0.2286 0.15239999999999998 0.001"/>
      </geometry>
    </collision>
  </link>
  <link name="pod_bin_2i_left">
    <inertial>
      <mass value="0.01"/>
      <inertia ixx="0.0002835" ixy="0.0" ixz="0.0" iyy="0.0002835" iyz="0.0" izz="0.000324"/>
    </inertial>
    <visual>
      <origin xyz="0.07619999999999999 0.0635 -0.0005"/>
      <geometry>
        <box size="0.15239999999999998 0.127 0.001"/>
      </geometry>
      <material name="yellow_fabric"/>
    </visual>
    <collision>
      <origin xyz="0.07619999999999999 0.0635 -0.0005"/>
      <geometry>
        <box size="0.15239999999999998 0.127 0.001"/>
      </geometry>
    </collision>
  </link>
  <link name="pod_bin_2i_right">
    <inertial>
      <mass value="0.01"/>
      <inertia ixx="0.0002835" ixy="0.0" ixz="0.0" iyy="0.0002835" iyz="0.0" izz="0.000324"/>
    </inertial>
    <visual>
      <origin xyz="0.07619999999999999 0.0635 -0.0005"/>
      <geometry>
        <box size="0.15239999999999998 0.127 0.001"/>
      </geometry>
      <material name="yellow_fabric"/>
    </visual>
    <collision>
      <origin xyz="0.07619999999999999 0.0635 -0.0005"/>
      <geometry>
        <box size="0.15239999999999998 0.127 0.001"/>
      </geometry>
    </collision>
  </link>
  <link name="pod_bin_2i_top">
    <inertial>
      <mass value="0.01"/>
      <inertia ixx="0.0002835" ixy="0.0" ixz="0.0" iyy="0.0002835" iyz="0.0" izz="0.000324"/>
    </inertial>
    <visual>
      <origin xyz="0.1143 0.07619999999999999 -0.0005"/>
      <geometry>
        <box size="0.2286 0.15239999999999998 0.001"/>
      </geometry>
      <material name="yellow_fabric"/>
    </visual>
    <collision>
      <origin xyz="0.1143 0.07619999999999999 -0.0005"/>
      <geometry>
        <box size="0.2286 0.15239999999999998 0.001"/>
      </geometry>
    </collision>
  </link>
  <link name="pod_bin_2i_back">
    <inertial>
      <mass value="0.01"/>
      <inertia ixx="0.0002835" ixy="0.0" ixz="0.0" iyy="0.0002835" iyz="0.0" izz="0.000324"/>
    </inertial>
    <visual>
      <origin xyz="0.1143 0.0635 -0.0005"/>
      <geometry>
        <box size="0.2286 0.127 0.001"/>
      </geometry>
      <material name="yellow_fabric"/>
    </visual>
    <collision>
      <origin xyz="0.1143 0.0635 -0.0005"/>
      <geometry>
        <box size="0.2286 0.127 0.001"/>
      </geometry>
    </collision>
  </link>
  <link name="pod_bin_2i_flap">
    <inertial>
      <mass value="0.01"/>
      <inertia ixx="0.0002835" ixy="0.0" ixz="0.0" iyy="0.0002835" iyz="0.0" izz="0.000324"/>
    </inertial>
    <visual>
      <origin xyz="0.1143 0.0127 -0.0005"/>
      <geometry>
        <box size="0.2286 0.0254 0.001"/>
      </geometry>
      <material name="yellow_fabric"/>
    </visual>
    <collision>
      <origin xyz="0.1143 0.0127 -0.0005"/>
      <geometry>
        <box size="0.2286 0.0254 0.001"/>
      </geometry>
    </collision>
  </link>
  <joint name="pod_bin_2i_pod_bin_2i_bottom" type="fixed">
    <parent link="pod_bin_2i"/>
    <child link="pod_bin_2i_bottom"/>
  </joint>
  <joint name="pod_bin_2i_pod_bin_2i_left" type="fixed">
    <origin rpy="1.5707963267948966 0 1.5707963267948966 " xyz="0 0 0"/>
    <parent link="pod_bin_2i"/>
    <child link="pod_bin_2i_left"/>
  </joint>
  <joint name="pod_bin_2i_pod_bin_2i_right" type="fixed">
    <origin rpy="1.5707963267948966 0 1.5707963267948966 " xyz="0.2286 0 0"/>
    <parent link="pod_bin_2i"/>
    <child link="pod_bin_2i_right"/>
  </joint>
  <joint name="pod_bin_2i_pod_bin_2i_top" type="fixed">
    <origin rpy="0 0 0" xyz="0 0 0.127"/>
    <parent link="pod_bin_2i"/>
    <child link="pod_bin_2i_top"/>
  </joint>
  <joint name="pod_bin_2i_pod_bin_2i_back" type="fixed">
    <origin rpy="1.5707963267948966 0 0" xyz="0 0.15239999999999998 0"/>
    <parent link="pod_bin_2i"/>
    <child link="pod_bin_2i_back"/>
  </joint>
  <joint name="pod_bin_2i_pod_bin_2i_flap" type="fixed">
    <origin rpy="1.5707963267948966 0 0" xyz="0 0 0"/>
    <parent link="pod_bin_2i"/>
    <child link="pod_bin_2i_flap"/>
  </joint>
  <joint name="pod_shelf_i_pod_bin_2i_joint" type="fixed">
    <origin xyz="0.2286 0 0"/>
    <parent link="pod_shelf_i"/>
    <child link="pod_bin_2i"/>
  </joint>
  <link name="pod_bin_3i"/>
  <link name="pod_bin_3i_bottom">
    <inertial>
      <mass value="0.01"/>
      <inertia ixx="0.0002835" ixy="0.0" ixz="0.0" iyy="0.0002835" iyz="0.0" izz="0.000324"/>
    </inertial>
    <visual>
      <origin xyz="0.1143 0.07619999999999999 -0.0005"/>
      <geometry>
        <box size="0.2286 0.15239999999999998 0.001"/>
      </geometry>
      <material name="yellow_fabric"/>
    </visual>
    <collision>
      <origin xyz="0.1143 0.07619999999999999 -0.0005"/>
      <geometry>
        <box size="0.2286 0.15239999999999998 0.001"/>
      </geometry>
    </collision>
  </link>
  <link name="pod_bin_3i_left">
    <inertial>
      <mass value="0.01"/>
      <inertia ixx="0.0002835" ixy="0.0" ixz="0.0" iyy="0.0002835" iyz="0.0" izz="0.000324"/>
    </inertial>
    <visual>
      <origin xyz="0.07619999999999999 0.0635 -0.0005"/>
      <geometry>
        <box size="0.15239999999999998 0.127 0.001"/>
      </geometry>
      <material name="yellow_fabric"/>
    </visual>
    <collision>
      <origin xyz="0.07619999999999999 0.0635 -0.0005"/>
      <geometry>
        <box size="0.15239999999999998 0.127 0.001"/>
      </geometry>
    </collision>
  </link>
  <link name="pod_bin_3i_right">
    <inertial>
      <mass value="0.01"/>
      <inertia ixx="0.0002835" ixy="0.0" ixz="0.0" iyy="0.0002835" iyz="0.0" izz="0.000324"/>
    </inertial>
    <visual>
      <origin xyz="0.07619999999999999 0.0635 -0.0005"/>
      <geometry>
        <box size="0.15239999999999998 0.127 0.001"/>
      </geometry>
      <material name="yellow_fabric"/>
    </visual>
    <collision>
      <origin xyz="0.07619999999999999 0.0635 -0.0005"/>
      <geometry>
        <box size="0.15239999999999998 0.127 0.001"/>
      </geometry>
    </collision>
  </link>
  <link name="pod_bin_3i_top">
    <inertial>
      <mass value="0.01"/>
      <inertia ixx="0.0002835" ixy="0.0" ixz="0.0" iyy="0.0002835" iyz="0.0" izz="0.000324"/>
    </inertial>
    <visual>
      <origin xyz="0.1143 0.07619999999999999 -0.0005"/>
      <geometry>
        <box size="0.2286 0.15239999999999998 0.001"/>
      </geometry>
      <material name="yellow_fabric"/>
    </visual>
    <collision>
      <origin xyz="0.1143 0.07619999999999999 -0.0005"/>
      <geometry>
        <box size="0.2286 0.15239999999999998 0.001"/>
      </geometry>
    </collision>
  </link>
  <link name="pod_bin_3i_back">
    <inertial>
      <mass value="0.01"/>
      <inertia ixx="0.0002835" ixy="0.0" ixz="0.0" iyy="0.0002835" iyz="0.0" izz="0.000324"/>
    </inertial>
    <visual>
      <origin xyz="0.1143 0.0635 -0.0005"/>
      <geometry>
        <box size="0.2286 0.127 0.001"/>
      </geometry>
      <material name="yellow_fabric"/>
    </visual>
    <collision>
      <origin xyz="0.1143 0.0635 -0.0005"/>
      <geometry>
        <box size="0.2286 0.127 0.001"/>
      </geometry>
    </collision>
  </link>
  <link name="pod_bin_3i_flap">
    <inertial>
      <mass value="0.01"/>
      <inertia ixx="0.0002835" ixy="0.0" ixz="0.0" iyy="0.0002835" iyz="0.0" izz="0.000324"/>
    </inertial>
    <visual>
      <origin xyz="0.1143 0.0127 -0.0005"/>
      <geometry>
        <box size="0.2286 0.0254 0.001"/>
      </geometry>
      <material name="yellow_fabric"/>
    </visual>
    <collision>
      <origin xyz="0.1143 0.0127 -0.0005"/>
      <geometry>
        <box size="0.2286 0.0254 0.001"/>
      </geometry>
    </collision>
  </link>
  <joint name="pod_bin_3i_pod_bin_3i_bottom" type="fixed">
    <parent link="pod_bin_3i"/>
    <child link="pod_bin_3i_bottom"/>
  </joint>
  <joint name="pod_bin_3i_pod_bin_3i_left" type="fixed">
    <origin rpy="1.5707963267948966 0 1.5707963267948966 " xyz="0 0 0"/>
    <parent link="pod_bin_3i"/>
    <child link="pod_bin_3i_left"/>
  </joint>
  <joint name="pod_bin_3i_pod_bin_3i_right" type="fixed">
    <origin rpy="1.5707963267948966 0 1.5707963267948966 " xyz="0.2286 0 0"/>
    <parent link="pod_bin_3i"/>
    <child link="pod_bin_3i_right"/>
  </joint>
  <joint name="pod_bin_3i_pod_bin_3i_top" type="fixed">
    <origin rpy="0 0 0" xyz="0 0 0.127"/>
    <parent link="pod_bin_3i"/>
    <child link="pod_bin_3i_top"/>
  </joint>
  <joint name="pod_bin_3i_pod_bin_3i_back" type="fixed">
    <origin rpy="1.5707963267948966 0 0" xyz="0 0.15239999999999998 0"/>
    <parent link="pod_bin_3i"/>
    <child link="pod_bin_3i_back"/>
  </joint>
  <joint name="pod_bin_3i_pod_bin_3i_flap" type="fixed">
    <origin rpy="1.5707963267948966 0 0" xyz="0 0 0"/>
    <parent link="pod_bin_3i"/>
    <child link="pod_bin_3i_flap"/>
  </joint>
  <joint name="pod_shelf_i_pod_bin_3i_joint" type="fixed">
    <origin xyz="0.4572 0 0"/>
    <parent link="pod_shelf_i"/>
    <child link="pod_bin_3i"/>
  </joint>
  <link name="pod_bin_4i"/>
  <link name="pod_bin_4i_bottom">
    <inertial>
      <mass value="0.01"/>
      <inertia ixx="0.0002835" ixy="0.0" ixz="0.0" iyy="0.0002835" iyz="0.0" izz="0.000324"/>
    </inertial>
    <visual>
      <origin xyz="0.1143 0.07619999999999999 -0.0005"/>
      <geometry>
        <box size="0.2286 0.15239999999999998 0.001"/>
      </geometry>
      <material name="yellow_fabric"/>
    </visual>
    <collision>
      <origin xyz="0.1143 0.07619999999999999 -0.0005"/>
      <geometry>
        <box size="0.2286 0.15239999999999998 0.001"/>
      </geometry>
    </collision>
  </link>
  <link name="pod_bin_4i_left">
    <inertial>
      <mass value="0.01"/>
      <inertia ixx="0.0002835" ixy="0.0" ixz="0.0" iyy="0.0002835" iyz="0.0" izz="0.000324"/>
    </inertial>
    <visual>
      <origin xyz="0.07619999999999999 0.0635 -0.0005"/>
      <geometry>
        <box size="0.15239999999999998 0.127 0.001"/>
      </geometry>
      <material name="yellow_fabric"/>
    </visual>
    <collision>
      <origin xyz="0.07619999999999999 0.0635 -0.0005"/>
      <geometry>
        <box size="0.15239999999999998 0.127 0.001"/>
      </geometry>
    </collision>
  </link>
  <link name="pod_bin_4i_right">
    <inertial>
      <mass value="0.01"/>
      <inertia ixx="0.0002835" ixy="0.0" ixz="0.0" iyy="0.0002835" iyz="0.0" izz="0.000324"/>
    </inertial>
    <visual>
      <origin xyz="0.07619999999999999 0.0635 -0.0005"/>
      <geometry>
        <box size="0.15239999999999998 0.127 0.001"/>
      </geometry>
      <material name="yellow_fabric"/>
    </visual>
    <collision>
      <origin xyz="0.07619999999999999 0.0635 -0.0005"/>
      <geometry>
        <box size="0.15239999999999998 0.127 0.001"/>
      </geometry>
    </collision>
  </link>
  <link name="pod_bin_4i_top">
    <inertial>
      <mass value="0.01"/>
      <inertia ixx="0.0002835" ixy="0.0" ixz="0.0" iyy="0.0002835" iyz="0.0" izz="0.000324"/>
    </inertial>
    <visual>
      <origin xyz="0.1143 0.07619999999999999 -0.0005"/>
      <geometry>
        <box size="0.2286 0.15239999999999998 0.001"/>
      </geometry>
      <material name="yellow_fabric"/>
    </visual>
    <collision>
      <origin xyz="0.1143 0.07619999999999999 -0.0005"/>
      <geometry>
        <box size="0.2286 0.15239999999999998 0.001"/>
      </geometry>
    </collision>
  </link>
  <link name="pod_bin_4i_back">
    <inertial>
      <mass value="0.01"/>
      <inertia ixx="0.0002835" ixy="0.0" ixz="0.0" iyy="0.0002835" iyz="0.0" izz="0.000324"/>
    </inertial>
    <visual>
      <origin xyz="0.1143 0.0635 -0.0005"/>
      <geometry>
        <box size="0.2286 0.127 0.001"/>
      </geometry>
      <material name="yellow_fabric"/>
    </visual>
    <collision>
      <origin xyz="0.1143 0.0635 -0.0005"/>
      <geometry>
        <box size="0.2286 0.127 0.001"/>
      </geometry>
    </collision>
  </link>
  <link name="pod_bin_4i_flap">
    <inertial>
      <mass value="0.01"/>
      <inertia ixx="0.0002835" ixy="0.0" ixz="0.0" iyy="0.0002835" iyz="0.0" izz="0.000324"/>
    </inertial>
    <visual>
      <origin xyz="0.1143 0.0127 -0.0005"/>
      <geometry>
        <box size="0.2286 0.0254 0.001"/>
      </geometry>
      <material name="yellow_fabric"/>
    </visual>
    <collision>
      <origin xyz="0.1143 0.0127 -0.0005"/>
      <geometry>
        <box size="0.2286 0.0254 0.001"/>
      </geometry>
    </collision>
  </link>
  <joint name="pod_bin_4i_pod_bin_4i_bottom" type="fixed">
    <parent link="pod_bin_4i"/>
    <child link="pod_bin_4i_bottom"/>
  </joint>
  <joint name="pod_bin_4i_pod_bin_4i_left" type="fixed">
    <origin rpy="1.5707963267948966 0 1.5707963267948966 " xyz="0 0 0"/>
    <parent link="pod_bin_4i"/>
    <child link="pod_bin_4i_left"/>
  </joint>
  <joint name="pod_bin_4i_pod_bin_4i_right" type="fixed">
    <origin rpy="1.5707963267948966 0 1.5707963267948966 " xyz="0.2286 0 0"/>
    <parent link="pod_bin_4i"/>
    <child link="pod_bin_4i_right"/>
  </joint>
  <joint name="pod_bin_4i_pod_bin_4i_top" type="fixed">
    <origin rpy="0 0 0" xyz="0 0 0.127"/>
    <parent link="pod_bin_4i"/>
    <child link="pod_bin_4i_top"/>
  </joint>
  <joint name="pod_bin_4i_pod_bin_4i_back" type="fixed">
    <origin rpy="1.5707963267948966 0 0" xyz="0 0.15239999999999998 0"/>
    <parent link="pod_bin_4i"/>
    <child link="pod_bin_4i_back"/>
  </joint>
  <joint name="pod_bin_4i_pod_bin_4i_flap" type="fixed">
    <origin rpy="1.5707963267948966 0 0" xyz="0 0 0"/>
    <parent link="pod_bin_4i"/>
    <child link="pod_bin_4i_flap"/>
  </joint>
  <joint name="pod_shelf_i_pod_bin_4i_joint" type="fixed">
    <origin xyz="0.6858 0 0"/>
    <parent link="pod_shelf_i"/>
    <child link="pod_bin_4i"/>
  </joint>
  <joint name="pod_fabric_base_pod_shelf_i_joint" type="fixed">
    <origin xyz="0 0 1.3207999999999998"/>
    <parent link="pod_fabric_base"/>
    <child link="pod_shelf_i"/>
  </joint>
  <link name="pod_shelf_j"/>
  <link name="pod_bin_1j"/>
  <link name="pod_bin_1j_bottom">
    <inertial>
      <mass value="0.01"/>
      <inertia ixx="0.0002835" ixy="0.0" ixz="0.0" iyy="0.0002835" iyz="0.0" izz="0.000324"/>
    </inertial>
    <visual>
      <origin xyz="0.1143 0.07619999999999999 -0.0005"/>
      <geometry>
        <box size="0.2286 0.15239999999999998 0.001"/>
      </geometry>
      <material name="yellow_fabric"/>
    </visual>
    <collision>
      <origin xyz="0.1143 0.07619999999999999 -0.0005"/>
      <geometry>
        <box size="0.2286 0.15239999999999998 0.001"/>
      </geometry>
    </collision>
  </link>
  <link name="pod_bin_1j_left">
    <inertial>
      <mass value="0.01"/>
      <inertia ixx="0.0002835" ixy="0.0" ixz="0.0" iyy="0.0002835" iyz="0.0" izz="0.000324"/>
    </inertial>
    <visual>
      <origin xyz="0.07619999999999999 0.111125 -0.0005"/>
      <geometry>
        <box size="0.15239999999999998 0.22225 0.001"/>
      </geometry>
      <material name="yellow_fabric"/>
    </visual>
    <collision>
      <origin xyz="0.07619999999999999 0.111125 -0.0005"/>
      <geometry>
        <box size="0.15239999999999998 0.22225 0.001"/>
      </geometry>
    </collision>
  </link>
  <link name="pod_bin_1j_right">
    <inertial>
      <mass value="0.01"/>
      <inertia ixx="0.0002835" ixy="0.0" ixz="0.0" iyy="0.0002835" iyz="0.0" izz="0.000324"/>
    </inertial>
    <visual>
      <origin xyz="0.07619999999999999 0.111125 -0.0005"/>
      <geometry>
        <box size="0.15239999999999998 0.22225 0.001"/>
      </geometry>
      <material name="yellow_fabric"/>
    </visual>
    <collision>
      <origin xyz="0.07619999999999999 0.111125 -0.0005"/>
      <geometry>
        <box size="0.15239999999999998 0.22225 0.001"/>
      </geometry>
    </collision>
  </link>
  <link name="pod_bin_1j_top">
    <inertial>
      <mass value="0.01"/>
      <inertia ixx="0.0002835" ixy="0.0" ixz="0.0" iyy="0.0002835" iyz="0.0" izz="0.000324"/>
    </inertial>
    <visual>
      <origin xyz="0.1143 0.07619999999999999 -0.0005"/>
      <geometry>
        <box size="0.2286 0.15239999999999998 0.001"/>
      </geometry>
      <material name="yellow_fabric"/>
    </visual>
    <collision>
      <origin xyz="0.1143 0.07619999999999999 -0.0005"/>
      <geometry>
        <box size="0.2286 0.15239999999999998 0.001"/>
      </geometry>
    </collision>
  </link>
  <link name="pod_bin_1j_back">
    <inertial>
      <mass value="0.01"/>
      <inertia ixx="0.0002835" ixy="0.0" ixz="0.0" iyy="0.0002835" iyz="0.0" izz="0.000324"/>
    </inertial>
    <visual>
      <origin xyz="0.1143 0.111125 -0.0005"/>
      <geometry>
        <box size="0.2286 0.22225 0.001"/>
      </geometry>
      <material name="yellow_fabric"/>
    </visual>
    <collision>
      <origin xyz="0.1143 0.111125 -0.0005"/>
      <geometry>
        <box size="0.2286 0.22225 0.001"/>
      </geometry>
    </collision>
  </link>
  <link name="pod_bin_1j_flap">
    <inertial>
      <mass value="0.01"/>
      <inertia ixx="0.0002835" ixy="0.0" ixz="0.0" iyy="0.0002835" iyz="0.0" izz="0.000324"/>
    </inertial>
    <visual>
      <origin xyz="0.1143 0.0127 -0.0005"/>
      <geometry>
        <box size="0.2286 0.0254 0.001"/>
      </geometry>
      <material name="yellow_fabric"/>
    </visual>
    <collision>
      <origin xyz="0.1143 0.0127 -0.0005"/>
      <geometry>
        <box size="0.2286 0.0254 0.001"/>
      </geometry>
    </collision>
  </link>
  <joint name="pod_bin_1j_pod_bin_1j_bottom" type="fixed">
    <parent link="pod_bin_1j"/>
    <child link="pod_bin_1j_bottom"/>
  </joint>
  <joint name="pod_bin_1j_pod_bin_1j_left" type="fixed">
    <origin rpy="1.5707963267948966 0 1.5707963267948966 " xyz="0 0 0"/>
    <parent link="pod_bin_1j"/>
    <child link="pod_bin_1j_left"/>
  </joint>
  <joint name="pod_bin_1j_pod_bin_1j_right" type="fixed">
    <origin rpy="1.5707963267948966 0 1.5707963267948966 " xyz="0.2286 0 0"/>
    <parent link="pod_bin_1j"/>
    <child link="pod_bin_1j_right"/>
  </joint>
  <joint name="pod_bin_1j_pod_bin_1j_top" type="fixed">
    <origin rpy="0 0 0" xyz="0 0 0.22225"/>
    <parent link="pod_bin_1j"/>
    <child link="pod_bin_1j_top"/>
  </joint>
  <joint name="pod_bin_1j_pod_bin_1j_back" type="fixed">
    <origin rpy="1.5707963267948966 0 0" xyz="0 0.15239999999999998 0"/>
    <parent link="pod_bin_1j"/>
    <child link="pod_bin_1j_back"/>
  </joint>
  <joint name="pod_bin_1j_pod_bin_1j_flap" type="fixed">
    <origin rpy="1.5707963267948966 0 0" xyz="0 0 0"/>
    <parent link="pod_bin_1j"/>
    <child link="pod_bin_1j_flap"/>
  </joint>
  <joint name="pod_shelf_j_pod_bin_1j_joint" type="fixed">
    <origin xyz="0.0 0 0"/>
    <parent link="pod_shelf_j"/>
    <child link="pod_bin_1j"/>
  </joint>
  <link name="pod_bin_2j"/>
  <link name="pod_bin_2j_bottom">
    <inertial>
      <mass value="0.01"/>
      <inertia ixx="0.0002835" ixy="0.0" ixz="0.0" iyy="0.0002835" iyz="0.0" izz="0.000324"/>
    </inertial>
    <visual>
      <origin xyz="0.1143 0.07619999999999999 -0.0005"/>
      <geometry>
        <box size="0.2286 0.15239999999999998 0.001"/>
      </geometry>
      <material name="yellow_fabric"/>
    </visual>
    <collision>
      <origin xyz="0.1143 0.07619999999999999 -0.0005"/>
      <geometry>
        <box size="0.2286 0.15239999999999998 0.001"/>
      </geometry>
    </collision>
  </link>
  <link name="pod_bin_2j_left">
    <inertial>
      <mass value="0.01"/>
      <inertia ixx="0.0002835" ixy="0.0" ixz="0.0" iyy="0.0002835" iyz="0.0" izz="0.000324"/>
    </inertial>
    <visual>
      <origin xyz="0.07619999999999999 0.111125 -0.0005"/>
      <geometry>
        <box size="0.15239999999999998 0.22225 0.001"/>
      </geometry>
      <material name="yellow_fabric"/>
    </visual>
    <collision>
      <origin xyz="0.07619999999999999 0.111125 -0.0005"/>
      <geometry>
        <box size="0.15239999999999998 0.22225 0.001"/>
      </geometry>
    </collision>
  </link>
  <link name="pod_bin_2j_right">
    <inertial>
      <mass value="0.01"/>
      <inertia ixx="0.0002835" ixy="0.0" ixz="0.0" iyy="0.0002835" iyz="0.0" izz="0.000324"/>
    </inertial>
    <visual>
      <origin xyz="0.07619999999999999 0.111125 -0.0005"/>
      <geometry>
        <box size="0.15239999999999998 0.22225 0.001"/>
      </geometry>
      <material name="yellow_fabric"/>
    </visual>
    <collision>
      <origin xyz="0.07619999999999999 0.111125 -0.0005"/>
      <geometry>
        <box size="0.15239999999999998 0.22225 0.001"/>
      </geometry>
    </collision>
  </link>
  <link name="pod_bin_2j_top">
    <inertial>
      <mass value="0.01"/>
      <inertia ixx="0.0002835" ixy="0.0" ixz="0.0" iyy="0.0002835" iyz="0.0" izz="0.000324"/>
    </inertial>
    <visual>
      <origin xyz="0.1143 0.07619999999999999 -0.0005"/>
      <geometry>
        <box size="0.2286 0.15239999999999998 0.001"/>
      </geometry>
      <material name="yellow_fabric"/>
    </visual>
    <collision>
      <origin xyz="0.1143 0.07619999999999999 -0.0005"/>
      <geometry>
        <box size="0.2286 0.15239999999999998 0.001"/>
      </geometry>
    </collision>
  </link>
  <link name="pod_bin_2j_back">
    <inertial>
      <mass value="0.01"/>
      <inertia ixx="0.0002835" ixy="0.0" ixz="0.0" iyy="0.0002835" iyz="0.0" izz="0.000324"/>
    </inertial>
    <visual>
      <origin xyz="0.1143 0.111125 -0.0005"/>
      <geometry>
        <box size="0.2286 0.22225 0.001"/>
      </geometry>
      <material name="yellow_fabric"/>
    </visual>
    <collision>
      <origin xyz="0.1143 0.111125 -0.0005"/>
      <geometry>
        <box size="0.2286 0.22225 0.001"/>
      </geometry>
    </collision>
  </link>
  <link name="pod_bin_2j_flap">
    <inertial>
      <mass value="0.01"/>
      <inertia ixx="0.0002835" ixy="0.0" ixz="0.0" iyy="0.0002835" iyz="0.0" izz="0.000324"/>
    </inertial>
    <visual>
      <origin xyz="0.1143 0.0127 -0.0005"/>
      <geometry>
        <box size="0.2286 0.0254 0.001"/>
      </geometry>
      <material name="yellow_fabric"/>
    </visual>
    <collision>
      <origin xyz="0.1143 0.0127 -0.0005"/>
      <geometry>
        <box size="0.2286 0.0254 0.001"/>
      </geometry>
    </collision>
  </link>
  <joint name="pod_bin_2j_pod_bin_2j_bottom" type="fixed">
    <parent link="pod_bin_2j"/>
    <child link="pod_bin_2j_bottom"/>
  </joint>
  <joint name="pod_bin_2j_pod_bin_2j_left" type="fixed">
    <origin rpy="1.5707963267948966 0 1.5707963267948966 " xyz="0 0 0"/>
    <parent link="pod_bin_2j"/>
    <child link="pod_bin_2j_left"/>
  </joint>
  <joint name="pod_bin_2j_pod_bin_2j_right" type="fixed">
    <origin rpy="1.5707963267948966 0 1.5707963267948966 " xyz="0.2286 0 0"/>
    <parent link="pod_bin_2j"/>
    <child link="pod_bin_2j_right"/>
  </joint>
  <joint name="pod_bin_2j_pod_bin_2j_top" type="fixed">
    <origin rpy="0 0 0" xyz="0 0 0.22225"/>
    <parent link="pod_bin_2j"/>
    <child link="pod_bin_2j_top"/>
  </joint>
  <joint name="pod_bin_2j_pod_bin_2j_back" type="fixed">
    <origin rpy="1.5707963267948966 0 0" xyz="0 0.15239999999999998 0"/>
    <parent link="pod_bin_2j"/>
    <child link="pod_bin_2j_back"/>
  </joint>
  <joint name="pod_bin_2j_pod_bin_2j_flap" type="fixed">
    <origin rpy="1.5707963267948966 0 0" xyz="0 0 0"/>
    <parent link="pod_bin_2j"/>
    <child link="pod_bin_2j_flap"/>
  </joint>
  <joint name="pod_shelf_j_pod_bin_2j_joint" type="fixed">
    <origin xyz="0.2286 0 0"/>
    <parent link="pod_shelf_j"/>
    <child link="pod_bin_2j"/>
  </joint>
  <link name="pod_bin_3j"/>
  <link name="pod_bin_3j_bottom">
    <inertial>
      <mass value="0.01"/>
      <inertia ixx="0.0002835" ixy="0.0" ixz="0.0" iyy="0.0002835" iyz="0.0" izz="0.000324"/>
    </inertial>
    <visual>
      <origin xyz="0.1143 0.07619999999999999 -0.0005"/>
      <geometry>
        <box size="0.2286 0.15239999999999998 0.001"/>
      </geometry>
      <material name="yellow_fabric"/>
    </visual>
    <collision>
      <origin xyz="0.1143 0.07619999999999999 -0.0005"/>
      <geometry>
        <box size="0.2286 0.15239999999999998 0.001"/>
      </geometry>
    </collision>
  </link>
  <link name="pod_bin_3j_left">
    <inertial>
      <mass value="0.01"/>
      <inertia ixx="0.0002835" ixy="0.0" ixz="0.0" iyy="0.0002835" iyz="0.0" izz="0.000324"/>
    </inertial>
    <visual>
      <origin xyz="0.07619999999999999 0.111125 -0.0005"/>
      <geometry>
        <box size="0.15239999999999998 0.22225 0.001"/>
      </geometry>
      <material name="yellow_fabric"/>
    </visual>
    <collision>
      <origin xyz="0.07619999999999999 0.111125 -0.0005"/>
      <geometry>
        <box size="0.15239999999999998 0.22225 0.001"/>
      </geometry>
    </collision>
  </link>
  <link name="pod_bin_3j_right">
    <inertial>
      <mass value="0.01"/>
      <inertia ixx="0.0002835" ixy="0.0" ixz="0.0" iyy="0.0002835" iyz="0.0" izz="0.000324"/>
    </inertial>
    <visual>
      <origin xyz="0.07619999999999999 0.111125 -0.0005"/>
      <geometry>
        <box size="0.15239999999999998 0.22225 0.001"/>
      </geometry>
      <material name="yellow_fabric"/>
    </visual>
    <collision>
      <origin xyz="0.07619999999999999 0.111125 -0.0005"/>
      <geometry>
        <box size="0.15239999999999998 0.22225 0.001"/>
      </geometry>
    </collision>
  </link>
  <link name="pod_bin_3j_top">
    <inertial>
      <mass value="0.01"/>
      <inertia ixx="0.0002835" ixy="0.0" ixz="0.0" iyy="0.0002835" iyz="0.0" izz="0.000324"/>
    </inertial>
    <visual>
      <origin xyz="0.1143 0.07619999999999999 -0.0005"/>
      <geometry>
        <box size="0.2286 0.15239999999999998 0.001"/>
      </geometry>
      <material name="yellow_fabric"/>
    </visual>
    <collision>
      <origin xyz="0.1143 0.07619999999999999 -0.0005"/>
      <geometry>
        <box size="0.2286 0.15239999999999998 0.001"/>
      </geometry>
    </collision>
  </link>
  <link name="pod_bin_3j_back">
    <inertial>
      <mass value="0.01"/>
      <inertia ixx="0.0002835" ixy="0.0" ixz="0.0" iyy="0.0002835" iyz="0.0" izz="0.000324"/>
    </inertial>
    <visual>
      <origin xyz="0.1143 0.111125 -0.0005"/>
      <geometry>
        <box size="0.2286 0.22225 0.001"/>
      </geometry>
      <material name="yellow_fabric"/>
    </visual>
    <collision>
      <origin xyz="0.1143 0.111125 -0.0005"/>
      <geometry>
        <box size="0.2286 0.22225 0.001"/>
      </geometry>
    </collision>
  </link>
  <link name="pod_bin_3j_flap">
    <inertial>
      <mass value="0.01"/>
      <inertia ixx="0.0002835" ixy="0.0" ixz="0.0" iyy="0.0002835" iyz="0.0" izz="0.000324"/>
    </inertial>
    <visual>
      <origin xyz="0.1143 0.0127 -0.0005"/>
      <geometry>
        <box size="0.2286 0.0254 0.001"/>
      </geometry>
      <material name="yellow_fabric"/>
    </visual>
    <collision>
      <origin xyz="0.1143 0.0127 -0.0005"/>
      <geometry>
        <box size="0.2286 0.0254 0.001"/>
      </geometry>
    </collision>
  </link>
  <joint name="pod_bin_3j_pod_bin_3j_bottom" type="fixed">
    <parent link="pod_bin_3j"/>
    <child link="pod_bin_3j_bottom"/>
  </joint>
  <joint name="pod_bin_3j_pod_bin_3j_left" type="fixed">
    <origin rpy="1.5707963267948966 0 1.5707963267948966 " xyz="0 0 0"/>
    <parent link="pod_bin_3j"/>
    <child link="pod_bin_3j_left"/>
  </joint>
  <joint name="pod_bin_3j_pod_bin_3j_right" type="fixed">
    <origin rpy="1.5707963267948966 0 1.5707963267948966 " xyz="0.2286 0 0"/>
    <parent link="pod_bin_3j"/>
    <child link="pod_bin_3j_right"/>
  </joint>
  <joint name="pod_bin_3j_pod_bin_3j_top" type="fixed">
    <origin rpy="0 0 0" xyz="0 0 0.22225"/>
    <parent link="pod_bin_3j"/>
    <child link="pod_bin_3j_top"/>
  </joint>
  <joint name="pod_bin_3j_pod_bin_3j_back" type="fixed">
    <origin rpy="1.5707963267948966 0 0" xyz="0 0.15239999999999998 0"/>
    <parent link="pod_bin_3j"/>
    <child link="pod_bin_3j_back"/>
  </joint>
  <joint name="pod_bin_3j_pod_bin_3j_flap" type="fixed">
    <origin rpy="1.5707963267948966 0 0" xyz="0 0 0"/>
    <parent link="pod_bin_3j"/>
    <child link="pod_bin_3j_flap"/>
  </joint>
  <joint name="pod_shelf_j_pod_bin_3j_joint" type="fixed">
    <origin xyz="0.4572 0 0"/>
    <parent link="pod_shelf_j"/>
    <child link="pod_bin_3j"/>
  </joint>
  <link name="pod_bin_4j"/>
  <link name="pod_bin_4j_bottom">
    <inertial>
      <mass value="0.01"/>
      <inertia ixx="0.0002835" ixy="0.0" ixz="0.0" iyy="0.0002835" iyz="0.0" izz="0.000324"/>
    </inertial>
    <visual>
      <origin xyz="0.1143 0.07619999999999999 -0.0005"/>
      <geometry>
        <box size="0.2286 0.15239999999999998 0.001"/>
      </geometry>
      <material name="yellow_fabric"/>
    </visual>
    <collision>
      <origin xyz="0.1143 0.07619999999999999 -0.0005"/>
      <geometry>
        <box size="0.2286 0.15239999999999998 0.001"/>
      </geometry>
    </collision>
  </link>
  <link name="pod_bin_4j_left">
    <inertial>
      <mass value="0.01"/>
      <inertia ixx="0.0002835" ixy="0.0" ixz="0.0" iyy="0.0002835" iyz="0.0" izz="0.000324"/>
    </inertial>
    <visual>
      <origin xyz="0.07619999999999999 0.111125 -0.0005"/>
      <geometry>
        <box size="0.15239999999999998 0.22225 0.001"/>
      </geometry>
      <material name="yellow_fabric"/>
    </visual>
    <collision>
      <origin xyz="0.07619999999999999 0.111125 -0.0005"/>
      <geometry>
        <box size="0.15239999999999998 0.22225 0.001"/>
      </geometry>
    </collision>
  </link>
  <link name="pod_bin_4j_right">
    <inertial>
      <mass value="0.01"/>
      <inertia ixx="0.0002835" ixy="0.0" ixz="0.0" iyy="0.0002835" iyz="0.0" izz="0.000324"/>
    </inertial>
    <visual>
      <origin xyz="0.07619999999999999 0.111125 -0.0005"/>
      <geometry>
        <box size="0.15239999999999998 0.22225 0.001"/>
      </geometry>
      <material name="yellow_fabric"/>
    </visual>
    <collision>
      <origin xyz="0.07619999999999999 0.111125 -0.0005"/>
      <geometry>
        <box size="0.15239999999999998 0.22225 0.001"/>
      </geometry>
    </collision>
  </link>
  <link name="pod_bin_4j_top">
    <inertial>
      <mass value="0.01"/>
      <inertia ixx="0.0002835" ixy="0.0" ixz="0.0" iyy="0.0002835" iyz="0.0" izz="0.000324"/>
    </inertial>
    <visual>
      <origin xyz="0.1143 0.07619999999999999 -0.0005"/>
      <geometry>
        <box size="0.2286 0.15239999999999998 0.001"/>
      </geometry>
      <material name="yellow_fabric"/>
    </visual>
    <collision>
      <origin xyz="0.1143 0.07619999999999999 -0.0005"/>
      <geometry>
        <box size="0.2286 0.15239999999999998 0.001"/>
      </geometry>
    </collision>
  </link>
  <link name="pod_bin_4j_back">
    <inertial>
      <mass value="0.01"/>
      <inertia ixx="0.0002835" ixy="0.0" ixz="0.0" iyy="0.0002835" iyz="0.0" izz="0.000324"/>
    </inertial>
    <visual>
      <origin xyz="0.1143 0.111125 -0.0005"/>
      <geometry>
        <box size="0.2286 0.22225 0.001"/>
      </geometry>
      <material name="yellow_fabric"/>
    </visual>
    <collision>
      <origin xyz="0.1143 0.111125 -0.0005"/>
      <geometry>
        <box size="0.2286 0.22225 0.001"/>
      </geometry>
    </collision>
  </link>
  <link name="pod_bin_4j_flap">
    <inertial>
      <mass value="0.01"/>
      <inertia ixx="0.0002835" ixy="0.0" ixz="0.0" iyy="0.0002835" iyz="0.0" izz="0.000324"/>
    </inertial>
    <visual>
      <origin xyz="0.1143 0.0127 -0.0005"/>
      <geometry>
        <box size="0.2286 0.0254 0.001"/>
      </geometry>
      <material name="yellow_fabric"/>
    </visual>
    <collision>
      <origin xyz="0.1143 0.0127 -0.0005"/>
      <geometry>
        <box size="0.2286 0.0254 0.001"/>
      </geometry>
    </collision>
  </link>
  <joint name="pod_bin_4j_pod_bin_4j_bottom" type="fixed">
    <parent link="pod_bin_4j"/>
    <child link="pod_bin_4j_bottom"/>
  </joint>
  <joint name="pod_bin_4j_pod_bin_4j_left" type="fixed">
    <origin rpy="1.5707963267948966 0 1.5707963267948966 " xyz="0 0 0"/>
    <parent link="pod_bin_4j"/>
    <child link="pod_bin_4j_left"/>
  </joint>
  <joint name="pod_bin_4j_pod_bin_4j_right" type="fixed">
    <origin rpy="1.5707963267948966 0 1.5707963267948966 " xyz="0.2286 0 0"/>
    <parent link="pod_bin_4j"/>
    <child link="pod_bin_4j_right"/>
  </joint>
  <joint name="pod_bin_4j_pod_bin_4j_top" type="fixed">
    <origin rpy="0 0 0" xyz="0 0 0.22225"/>
    <parent link="pod_bin_4j"/>
    <child link="pod_bin_4j_top"/>
  </joint>
  <joint name="pod_bin_4j_pod_bin_4j_back" type="fixed">
    <origin rpy="1.5707963267948966 0 0" xyz="0 0.15239999999999998 0"/>
    <parent link="pod_bin_4j"/>
    <child link="pod_bin_4j_back"/>
  </joint>
  <joint name="pod_bin_4j_pod_bin_4j_flap" type="fixed">
    <origin rpy="1.5707963267948966 0 0" xyz="0 0 0"/>
    <parent link="pod_bin_4j"/>
    <child link="pod_bin_4j_flap"/>
  </joint>
  <joint name="pod_shelf_j_pod_bin_4j_joint" type="fixed">
    <origin xyz="0.6858 0 0"/>
    <parent link="pod_shelf_j"/>
    <child link="pod_bin_4j"/>
  </joint>
  <joint name="pod_fabric_base_pod_shelf_j_joint" type="fixed">
    <origin xyz="0 0 1.4477999999999998"/>
    <parent link="pod_fabric_base"/>
    <child link="pod_shelf_j"/>
  </joint>
  <link name="pod_shelf_k"/>
  <link name="pod_bin_1k"/>
  <link name="pod_bin_1k_bottom">
    <inertial>
      <mass value="0.01"/>
      <inertia ixx="0.0002835" ixy="0.0" ixz="0.0" iyy="0.0002835" iyz="0.0" izz="0.000324"/>
    </inertial>
    <visual>
      <origin xyz="0.1143 0.07619999999999999 -0.0005"/>
      <geometry>
        <box size="0.2286 0.15239999999999998 0.001"/>
      </geometry>
      <material name="yellow_fabric"/>
    </visual>
    <collision>
      <origin xyz="0.1143 0.07619999999999999 -0.0005"/>
      <geometry>
        <box size="0.2286 0.15239999999999998 0.001"/>
      </geometry>
    </collision>
  </link>
  <link name="pod_bin_1k_left">
    <inertial>
      <mass value="0.01"/>
      <inertia ixx="0.0002835" ixy="0.0" ixz="0.0" iyy="0.0002835" iyz="0.0" izz="0.000324"/>
    </inertial>
    <visual>
      <origin xyz="0.07619999999999999 0.0635 -0.0005"/>
      <geometry>
        <box size="0.15239999999999998 0.127 0.001"/>
      </geometry>
      <material name="yellow_fabric"/>
    </visual>
    <collision>
      <origin xyz="0.07619999999999999 0.0635 -0.0005"/>
      <geometry>
        <box size="0.15239999999999998 0.127 0.001"/>
      </geometry>
    </collision>
  </link>
  <link name="pod_bin_1k_right">
    <inertial>
      <mass value="0.01"/>
      <inertia ixx="0.0002835" ixy="0.0" ixz="0.0" iyy="0.0002835" iyz="0.0" izz="0.000324"/>
    </inertial>
    <visual>
      <origin xyz="0.07619999999999999 0.0635 -0.0005"/>
      <geometry>
        <box size="0.15239999999999998 0.127 0.001"/>
      </geometry>
      <material name="yellow_fabric"/>
    </visual>
    <collision>
      <origin xyz="0.07619999999999999 0.0635 -0.0005"/>
      <geometry>
        <box size="0.15239999999999998 0.127 0.001"/>
      </geometry>
    </collision>
  </link>
  <link name="pod_bin_1k_top">
    <inertial>
      <mass value="0.01"/>
      <inertia ixx="0.0002835" ixy="0.0" ixz="0.0" iyy="0.0002835" iyz="0.0" izz="0.000324"/>
    </inertial>
    <visual>
      <origin xyz="0.1143 0.07619999999999999 -0.0005"/>
      <geometry>
        <box size="0.2286 0.15239999999999998 0.001"/>
      </geometry>
      <material name="yellow_fabric"/>
    </visual>
    <collision>
      <origin xyz="0.1143 0.07619999999999999 -0.0005"/>
      <geometry>
        <box size="0.2286 0.15239999999999998 0.001"/>
      </geometry>
    </collision>
  </link>
  <link name="pod_bin_1k_back">
    <inertial>
      <mass value="0.01"/>
      <inertia ixx="0.0002835" ixy="0.0" ixz="0.0" iyy="0.0002835" iyz="0.0" izz="0.000324"/>
    </inertial>
    <visual>
      <origin xyz="0.1143 0.0635 -0.0005"/>
      <geometry>
        <box size="0.2286 0.127 0.001"/>
      </geometry>
      <material name="yellow_fabric"/>
    </visual>
    <collision>
      <origin xyz="0.1143 0.0635 -0.0005"/>
      <geometry>
        <box size="0.2286 0.127 0.001"/>
      </geometry>
    </collision>
  </link>
  <link name="pod_bin_1k_flap">
    <inertial>
      <mass value="0.01"/>
      <inertia ixx="0.0002835" ixy="0.0" ixz="0.0" iyy="0.0002835" iyz="0.0" izz="0.000324"/>
    </inertial>
    <visual>
      <origin xyz="0.1143 0.0127 -0.0005"/>
      <geometry>
        <box size="0.2286 0.0254 0.001"/>
      </geometry>
      <material name="yellow_fabric"/>
    </visual>
    <collision>
      <origin xyz="0.1143 0.0127 -0.0005"/>
      <geometry>
        <box size="0.2286 0.0254 0.001"/>
      </geometry>
    </collision>
  </link>
  <joint name="pod_bin_1k_pod_bin_1k_bottom" type="fixed">
    <parent link="pod_bin_1k"/>
    <child link="pod_bin_1k_bottom"/>
  </joint>
  <joint name="pod_bin_1k_pod_bin_1k_left" type="fixed">
    <origin rpy="1.5707963267948966 0 1.5707963267948966 " xyz="0 0 0"/>
    <parent link="pod_bin_1k"/>
    <child link="pod_bin_1k_left"/>
  </joint>
  <joint name="pod_bin_1k_pod_bin_1k_right" type="fixed">
    <origin rpy="1.5707963267948966 0 1.5707963267948966 " xyz="0.2286 0 0"/>
    <parent link="pod_bin_1k"/>
    <child link="pod_bin_1k_right"/>
  </joint>
  <joint name="pod_bin_1k_pod_bin_1k_top" type="fixed">
    <origin rpy="0 0 0" xyz="0 0 0.127"/>
    <parent link="pod_bin_1k"/>
    <child link="pod_bin_1k_top"/>
  </joint>
  <joint name="pod_bin_1k_pod_bin_1k_back" type="fixed">
    <origin rpy="1.5707963267948966 0 0" xyz="0 0.15239999999999998 0"/>
    <parent link="pod_bin_1k"/>
    <child link="pod_bin_1k_back"/>
  </joint>
  <joint name="pod_bin_1k_pod_bin_1k_flap" type="fixed">
    <origin rpy="1.5707963267948966 0 0" xyz="0 0 0"/>
    <parent link="pod_bin_1k"/>
    <child link="pod_bin_1k_flap"/>
  </joint>
  <joint name="pod_shelf_k_pod_bin_1k_joint" type="fixed">
    <origin xyz="0.0 0 0"/>
    <parent link="pod_shelf_k"/>
    <child link="pod_bin_1k"/>
  </joint>
  <link name="pod_bin_2k"/>
  <link name="pod_bin_2k_bottom">
    <inertial>
      <mass value="0.01"/>
      <inertia ixx="0.0002835" ixy="0.0" ixz="0.0" iyy="0.0002835" iyz="0.0" izz="0.000324"/>
    </inertial>
    <visual>
      <origin xyz="0.1143 0.07619999999999999 -0.0005"/>
      <geometry>
        <box size="0.2286 0.15239999999999998 0.001"/>
      </geometry>
      <material name="yellow_fabric"/>
    </visual>
    <collision>
      <origin xyz="0.1143 0.07619999999999999 -0.0005"/>
      <geometry>
        <box size="0.2286 0.15239999999999998 0.001"/>
      </geometry>
    </collision>
  </link>
  <link name="pod_bin_2k_left">
    <inertial>
      <mass value="0.01"/>
      <inertia ixx="0.0002835" ixy="0.0" ixz="0.0" iyy="0.0002835" iyz="0.0" izz="0.000324"/>
    </inertial>
    <visual>
      <origin xyz="0.07619999999999999 0.0635 -0.0005"/>
      <geometry>
        <box size="0.15239999999999998 0.127 0.001"/>
      </geometry>
      <material name="yellow_fabric"/>
    </visual>
    <collision>
      <origin xyz="0.07619999999999999 0.0635 -0.0005"/>
      <geometry>
        <box size="0.15239999999999998 0.127 0.001"/>
      </geometry>
    </collision>
  </link>
  <link name="pod_bin_2k_right">
    <inertial>
      <mass value="0.01"/>
      <inertia ixx="0.0002835" ixy="0.0" ixz="0.0" iyy="0.0002835" iyz="0.0" izz="0.000324"/>
    </inertial>
    <visual>
      <origin xyz="0.07619999999999999 0.0635 -0.0005"/>
      <geometry>
        <box size="0.15239999999999998 0.127 0.001"/>
      </geometry>
      <material name="yellow_fabric"/>
    </visual>
    <collision>
      <origin xyz="0.07619999999999999 0.0635 -0.0005"/>
      <geometry>
        <box size="0.15239999999999998 0.127 0.001"/>
      </geometry>
    </collision>
  </link>
  <link name="pod_bin_2k_top">
    <inertial>
      <mass value="0.01"/>
      <inertia ixx="0.0002835" ixy="0.0" ixz="0.0" iyy="0.0002835" iyz="0.0" izz="0.000324"/>
    </inertial>
    <visual>
      <origin xyz="0.1143 0.07619999999999999 -0.0005"/>
      <geometry>
        <box size="0.2286 0.15239999999999998 0.001"/>
      </geometry>
      <material name="yellow_fabric"/>
    </visual>
    <collision>
      <origin xyz="0.1143 0.07619999999999999 -0.0005"/>
      <geometry>
        <box size="0.2286 0.15239999999999998 0.001"/>
      </geometry>
    </collision>
  </link>
  <link name="pod_bin_2k_back">
    <inertial>
      <mass value="0.01"/>
      <inertia ixx="0.0002835" ixy="0.0" ixz="0.0" iyy="0.0002835" iyz="0.0" izz="0.000324"/>
    </inertial>
    <visual>
      <origin xyz="0.1143 0.0635 -0.0005"/>
      <geometry>
        <box size="0.2286 0.127 0.001"/>
      </geometry>
      <material name="yellow_fabric"/>
    </visual>
    <collision>
      <origin xyz="0.1143 0.0635 -0.0005"/>
      <geometry>
        <box size="0.2286 0.127 0.001"/>
      </geometry>
    </collision>
  </link>
  <link name="pod_bin_2k_flap">
    <inertial>
      <mass value="0.01"/>
      <inertia ixx="0.0002835" ixy="0.0" ixz="0.0" iyy="0.0002835" iyz="0.0" izz="0.000324"/>
    </inertial>
    <visual>
      <origin xyz="0.1143 0.0127 -0.0005"/>
      <geometry>
        <box size="0.2286 0.0254 0.001"/>
      </geometry>
      <material name="yellow_fabric"/>
    </visual>
    <collision>
      <origin xyz="0.1143 0.0127 -0.0005"/>
      <geometry>
        <box size="0.2286 0.0254 0.001"/>
      </geometry>
    </collision>
  </link>
  <joint name="pod_bin_2k_pod_bin_2k_bottom" type="fixed">
    <parent link="pod_bin_2k"/>
    <child link="pod_bin_2k_bottom"/>
  </joint>
  <joint name="pod_bin_2k_pod_bin_2k_left" type="fixed">
    <origin rpy="1.5707963267948966 0 1.5707963267948966 " xyz="0 0 0"/>
    <parent link="pod_bin_2k"/>
    <child link="pod_bin_2k_left"/>
  </joint>
  <joint name="pod_bin_2k_pod_bin_2k_right" type="fixed">
    <origin rpy="1.5707963267948966 0 1.5707963267948966 " xyz="0.2286 0 0"/>
    <parent link="pod_bin_2k"/>
    <child link="pod_bin_2k_right"/>
  </joint>
  <joint name="pod_bin_2k_pod_bin_2k_top" type="fixed">
    <origin rpy="0 0 0" xyz="0 0 0.127"/>
    <parent link="pod_bin_2k"/>
    <child link="pod_bin_2k_top"/>
  </joint>
  <joint name="pod_bin_2k_pod_bin_2k_back" type="fixed">
    <origin rpy="1.5707963267948966 0 0" xyz="0 0.15239999999999998 0"/>
    <parent link="pod_bin_2k"/>
    <child link="pod_bin_2k_back"/>
  </joint>
  <joint name="pod_bin_2k_pod_bin_2k_flap" type="fixed">
    <origin rpy="1.5707963267948966 0 0" xyz="0 0 0"/>
    <parent link="pod_bin_2k"/>
    <child link="pod_bin_2k_flap"/>
  </joint>
  <joint name="pod_shelf_k_pod_bin_2k_joint" type="fixed">
    <origin xyz="0.2286 0 0"/>
    <parent link="pod_shelf_k"/>
    <child link="pod_bin_2k"/>
  </joint>
  <link name="pod_bin_3k"/>
  <link name="pod_bin_3k_bottom">
    <inertial>
      <mass value="0.01"/>
      <inertia ixx="0.0002835" ixy="0.0" ixz="0.0" iyy="0.0002835" iyz="0.0" izz="0.000324"/>
    </inertial>
    <visual>
      <origin xyz="0.1143 0.07619999999999999 -0.0005"/>
      <geometry>
        <box size="0.2286 0.15239999999999998 0.001"/>
      </geometry>
      <material name="yellow_fabric"/>
    </visual>
    <collision>
      <origin xyz="0.1143 0.07619999999999999 -0.0005"/>
      <geometry>
        <box size="0.2286 0.15239999999999998 0.001"/>
      </geometry>
    </collision>
  </link>
  <link name="pod_bin_3k_left">
    <inertial>
      <mass value="0.01"/>
      <inertia ixx="0.0002835" ixy="0.0" ixz="0.0" iyy="0.0002835" iyz="0.0" izz="0.000324"/>
    </inertial>
    <visual>
      <origin xyz="0.07619999999999999 0.0635 -0.0005"/>
      <geometry>
        <box size="0.15239999999999998 0.127 0.001"/>
      </geometry>
      <material name="yellow_fabric"/>
    </visual>
    <collision>
      <origin xyz="0.07619999999999999 0.0635 -0.0005"/>
      <geometry>
        <box size="0.15239999999999998 0.127 0.001"/>
      </geometry>
    </collision>
  </link>
  <link name="pod_bin_3k_right">
    <inertial>
      <mass value="0.01"/>
      <inertia ixx="0.0002835" ixy="0.0" ixz="0.0" iyy="0.0002835" iyz="0.0" izz="0.000324"/>
    </inertial>
    <visual>
      <origin xyz="0.07619999999999999 0.0635 -0.0005"/>
      <geometry>
        <box size="0.15239999999999998 0.127 0.001"/>
      </geometry>
      <material name="yellow_fabric"/>
    </visual>
    <collision>
      <origin xyz="0.07619999999999999 0.0635 -0.0005"/>
      <geometry>
        <box size="0.15239999999999998 0.127 0.001"/>
      </geometry>
    </collision>
  </link>
  <link name="pod_bin_3k_top">
    <inertial>
      <mass value="0.01"/>
      <inertia ixx="0.0002835" ixy="0.0" ixz="0.0" iyy="0.0002835" iyz="0.0" izz="0.000324"/>
    </inertial>
    <visual>
      <origin xyz="0.1143 0.07619999999999999 -0.0005"/>
      <geometry>
        <box size="0.2286 0.15239999999999998 0.001"/>
      </geometry>
      <material name="yellow_fabric"/>
    </visual>
    <collision>
      <origin xyz="0.1143 0.07619999999999999 -0.0005"/>
      <geometry>
        <box size="0.2286 0.15239999999999998 0.001"/>
      </geometry>
    </collision>
  </link>
  <link name="pod_bin_3k_back">
    <inertial>
      <mass value="0.01"/>
      <inertia ixx="0.0002835" ixy="0.0" ixz="0.0" iyy="0.0002835" iyz="0.0" izz="0.000324"/>
    </inertial>
    <visual>
      <origin xyz="0.1143 0.0635 -0.0005"/>
      <geometry>
        <box size="0.2286 0.127 0.001"/>
      </geometry>
      <material name="yellow_fabric"/>
    </visual>
    <collision>
      <origin xyz="0.1143 0.0635 -0.0005"/>
      <geometry>
        <box size="0.2286 0.127 0.001"/>
      </geometry>
    </collision>
  </link>
  <link name="pod_bin_3k_flap">
    <inertial>
      <mass value="0.01"/>
      <inertia ixx="0.0002835" ixy="0.0" ixz="0.0" iyy="0.0002835" iyz="0.0" izz="0.000324"/>
    </inertial>
    <visual>
      <origin xyz="0.1143 0.0127 -0.0005"/>
      <geometry>
        <box size="0.2286 0.0254 0.001"/>
      </geometry>
      <material name="yellow_fabric"/>
    </visual>
    <collision>
      <origin xyz="0.1143 0.0127 -0.0005"/>
      <geometry>
        <box size="0.2286 0.0254 0.001"/>
      </geometry>
    </collision>
  </link>
  <joint name="pod_bin_3k_pod_bin_3k_bottom" type="fixed">
    <parent link="pod_bin_3k"/>
    <child link="pod_bin_3k_bottom"/>
  </joint>
  <joint name="pod_bin_3k_pod_bin_3k_left" type="fixed">
    <origin rpy="1.5707963267948966 0 1.5707963267948966 " xyz="0 0 0"/>
    <parent link="pod_bin_3k"/>
    <child link="pod_bin_3k_left"/>
  </joint>
  <joint name="pod_bin_3k_pod_bin_3k_right" type="fixed">
    <origin rpy="1.5707963267948966 0 1.5707963267948966 " xyz="0.2286 0 0"/>
    <parent link="pod_bin_3k"/>
    <child link="pod_bin_3k_right"/>
  </joint>
  <joint name="pod_bin_3k_pod_bin_3k_top" type="fixed">
    <origin rpy="0 0 0" xyz="0 0 0.127"/>
    <parent link="pod_bin_3k"/>
    <child link="pod_bin_3k_top"/>
  </joint>
  <joint name="pod_bin_3k_pod_bin_3k_back" type="fixed">
    <origin rpy="1.5707963267948966 0 0" xyz="0 0.15239999999999998 0"/>
    <parent link="pod_bin_3k"/>
    <child link="pod_bin_3k_back"/>
  </joint>
  <joint name="pod_bin_3k_pod_bin_3k_flap" type="fixed">
    <origin rpy="1.5707963267948966 0 0" xyz="0 0 0"/>
    <parent link="pod_bin_3k"/>
    <child link="pod_bin_3k_flap"/>
  </joint>
  <joint name="pod_shelf_k_pod_bin_3k_joint" type="fixed">
    <origin xyz="0.4572 0 0"/>
    <parent link="pod_shelf_k"/>
    <child link="pod_bin_3k"/>
  </joint>
  <link name="pod_bin_4k"/>
  <link name="pod_bin_4k_bottom">
    <inertial>
      <mass value="0.01"/>
      <inertia ixx="0.0002835" ixy="0.0" ixz="0.0" iyy="0.0002835" iyz="0.0" izz="0.000324"/>
    </inertial>
    <visual>
      <origin xyz="0.1143 0.07619999999999999 -0.0005"/>
      <geometry>
        <box size="0.2286 0.15239999999999998 0.001"/>
      </geometry>
      <material name="yellow_fabric"/>
    </visual>
    <collision>
      <origin xyz="0.1143 0.07619999999999999 -0.0005"/>
      <geometry>
        <box size="0.2286 0.15239999999999998 0.001"/>
      </geometry>
    </collision>
  </link>
  <link name="pod_bin_4k_left">
    <inertial>
      <mass value="0.01"/>
      <inertia ixx="0.0002835" ixy="0.0" ixz="0.0" iyy="0.0002835" iyz="0.0" izz="0.000324"/>
    </inertial>
    <visual>
      <origin xyz="0.07619999999999999 0.0635 -0.0005"/>
      <geometry>
        <box size="0.15239999999999998 0.127 0.001"/>
      </geometry>
      <material name="yellow_fabric"/>
    </visual>
    <collision>
      <origin xyz="0.07619999999999999 0.0635 -0.0005"/>
      <geometry>
        <box size="0.15239999999999998 0.127 0.001"/>
      </geometry>
    </collision>
  </link>
  <link name="pod_bin_4k_right">
    <inertial>
      <mass value="0.01"/>
      <inertia ixx="0.0002835" ixy="0.0" ixz="0.0" iyy="0.0002835" iyz="0.0" izz="0.000324"/>
    </inertial>
    <visual>
      <origin xyz="0.07619999999999999 0.0635 -0.0005"/>
      <geometry>
        <box size="0.15239999999999998 0.127 0.001"/>
      </geometry>
      <material name="yellow_fabric"/>
    </visual>
    <collision>
      <origin xyz="0.07619999999999999 0.0635 -0.0005"/>
      <geometry>
        <box size="0.15239999999999998 0.127 0.001"/>
      </geometry>
    </collision>
  </link>
  <link name="pod_bin_4k_top">
    <inertial>
      <mass value="0.01"/>
      <inertia ixx="0.0002835" ixy="0.0" ixz="0.0" iyy="0.0002835" iyz="0.0" izz="0.000324"/>
    </inertial>
    <visual>
      <origin xyz="0.1143 0.07619999999999999 -0.0005"/>
      <geometry>
        <box size="0.2286 0.15239999999999998 0.001"/>
      </geometry>
      <material name="yellow_fabric"/>
    </visual>
    <collision>
      <origin xyz="0.1143 0.07619999999999999 -0.0005"/>
      <geometry>
        <box size="0.2286 0.15239999999999998 0.001"/>
      </geometry>
    </collision>
  </link>
  <link name="pod_bin_4k_back">
    <inertial>
      <mass value="0.01"/>
      <inertia ixx="0.0002835" ixy="0.0" ixz="0.0" iyy="0.0002835" iyz="0.0" izz="0.000324"/>
    </inertial>
    <visual>
      <origin xyz="0.1143 0.0635 -0.0005"/>
      <geometry>
        <box size="0.2286 0.127 0.001"/>
      </geometry>
      <material name="yellow_fabric"/>
    </visual>
    <collision>
      <origin xyz="0.1143 0.0635 -0.0005"/>
      <geometry>
        <box size="0.2286 0.127 0.001"/>
      </geometry>
    </collision>
  </link>
  <link name="pod_bin_4k_flap">
    <inertial>
      <mass value="0.01"/>
      <inertia ixx="0.0002835" ixy="0.0" ixz="0.0" iyy="0.0002835" iyz="0.0" izz="0.000324"/>
    </inertial>
    <visual>
      <origin xyz="0.1143 0.0127 -0.0005"/>
      <geometry>
        <box size="0.2286 0.0254 0.001"/>
      </geometry>
      <material name="yellow_fabric"/>
    </visual>
    <collision>
      <origin xyz="0.1143 0.0127 -0.0005"/>
      <geometry>
        <box size="0.2286 0.0254 0.001"/>
      </geometry>
    </collision>
  </link>
  <joint name="pod_bin_4k_pod_bin_4k_bottom" type="fixed">
    <parent link="pod_bin_4k"/>
    <child link="pod_bin_4k_bottom"/>
  </joint>
  <joint name="pod_bin_4k_pod_bin_4k_left" type="fixed">
    <origin rpy="1.5707963267948966 0 1.5707963267948966 " xyz="0 0 0"/>
    <parent link="pod_bin_4k"/>
    <child link="pod_bin_4k_left"/>
  </joint>
  <joint name="pod_bin_4k_pod_bin_4k_right" type="fixed">
    <origin rpy="1.5707963267948966 0 1.5707963267948966 " xyz="0.2286 0 0"/>
    <parent link="pod_bin_4k"/>
    <child link="pod_bin_4k_right"/>
  </joint>
  <joint name="pod_bin_4k_pod_bin_4k_top" type="fixed">
    <origin rpy="0 0 0" xyz="0 0 0.127"/>
    <parent link="pod_bin_4k"/>
    <child link="pod_bin_4k_top"/>
  </joint>
  <joint name="pod_bin_4k_pod_bin_4k_back" type="fixed">
    <origin rpy="1.5707963267948966 0 0" xyz="0 0.15239999999999998 0"/>
    <parent link="pod_bin_4k"/>
    <child link="pod_bin_4k_back"/>
  </joint>
  <joint name="pod_bin_4k_pod_bin_4k_flap" type="fixed">
    <origin rpy="1.5707963267948966 0 0" xyz="0 0 0"/>
    <parent link="pod_bin_4k"/>
    <child link="pod_bin_4k_flap"/>
  </joint>
  <joint name="pod_shelf_k_pod_bin_4k_joint" type="fixed">
    <origin xyz="0.6858 0 0"/>
    <parent link="pod_shelf_k"/>
    <child link="pod_bin_4k"/>
  </joint>
  <joint name="pod_fabric_base_pod_shelf_k_joint" type="fixed">
    <origin xyz="0 0 1.6700499999999998"/>
    <parent link="pod_fabric_base"/>
    <child link="pod_shelf_k"/>
  </joint>
  <link name="pod_shelf_l"/>
  <link name="pod_bin_1l"/>
  <link name="pod_bin_1l_bottom">
    <inertial>
      <mass value="0.01"/>
      <inertia ixx="0.0002835" ixy="0.0" ixz="0.0" iyy="0.0002835" iyz="0.0" izz="0.000324"/>
    </inertial>
    <visual>
      <origin xyz="0.1143 0.07619999999999999 -0.0005"/>
      <geometry>
        <box size="0.2286 0.15239999999999998 0.001"/>
      </geometry>
      <material name="yellow_fabric"/>
    </visual>
    <collision>
      <origin xyz="0.1143 0.07619999999999999 -0.0005"/>
      <geometry>
        <box size="0.2286 0.15239999999999998 0.001"/>
      </geometry>
    </collision>
  </link>
  <link name="pod_bin_1l_left">
    <inertial>
      <mass value="0.01"/>
      <inertia ixx="0.0002835" ixy="0.0" ixz="0.0" iyy="0.0002835" iyz="0.0" izz="0.000324"/>
    </inertial>
    <visual>
      <origin xyz="0.07619999999999999 0.07619999999999999 -0.0005"/>
      <geometry>
        <box size="0.15239999999999998 0.15239999999999998 0.001"/>
      </geometry>
      <material name="yellow_fabric"/>
    </visual>
    <collision>
      <origin xyz="0.07619999999999999 0.07619999999999999 -0.0005"/>
      <geometry>
        <box size="0.15239999999999998 0.15239999999999998 0.001"/>
      </geometry>
    </collision>
  </link>
  <link name="pod_bin_1l_right">
    <inertial>
      <mass value="0.01"/>
      <inertia ixx="0.0002835" ixy="0.0" ixz="0.0" iyy="0.0002835" iyz="0.0" izz="0.000324"/>
    </inertial>
    <visual>
      <origin xyz="0.07619999999999999 0.07619999999999999 -0.0005"/>
      <geometry>
        <box size="0.15239999999999998 0.15239999999999998 0.001"/>
      </geometry>
      <material name="yellow_fabric"/>
    </visual>
    <collision>
      <origin xyz="0.07619999999999999 0.07619999999999999 -0.0005"/>
      <geometry>
        <box size="0.15239999999999998 0.15239999999999998 0.001"/>
      </geometry>
    </collision>
  </link>
  <link name="pod_bin_1l_top">
    <inertial>
      <mass value="0.01"/>
      <inertia ixx="0.0002835" ixy="0.0" ixz="0.0" iyy="0.0002835" iyz="0.0" izz="0.000324"/>
    </inertial>
    <visual>
      <origin xyz="0.1143 0.07619999999999999 -0.0005"/>
      <geometry>
        <box size="0.2286 0.15239999999999998 0.001"/>
      </geometry>
      <material name="yellow_fabric"/>
    </visual>
    <collision>
      <origin xyz="0.1143 0.07619999999999999 -0.0005"/>
      <geometry>
        <box size="0.2286 0.15239999999999998 0.001"/>
      </geometry>
    </collision>
  </link>
  <link name="pod_bin_1l_back">
    <inertial>
      <mass value="0.01"/>
      <inertia ixx="0.0002835" ixy="0.0" ixz="0.0" iyy="0.0002835" iyz="0.0" izz="0.000324"/>
    </inertial>
    <visual>
      <origin xyz="0.1143 0.07619999999999999 -0.0005"/>
      <geometry>
        <box size="0.2286 0.15239999999999998 0.001"/>
      </geometry>
      <material name="yellow_fabric"/>
    </visual>
    <collision>
      <origin xyz="0.1143 0.07619999999999999 -0.0005"/>
      <geometry>
        <box size="0.2286 0.15239999999999998 0.001"/>
      </geometry>
    </collision>
  </link>
  <link name="pod_bin_1l_flap">
    <inertial>
      <mass value="0.01"/>
      <inertia ixx="0.0002835" ixy="0.0" ixz="0.0" iyy="0.0002835" iyz="0.0" izz="0.000324"/>
    </inertial>
    <visual>
      <origin xyz="0.1143 0.0127 -0.0005"/>
      <geometry>
        <box size="0.2286 0.0254 0.001"/>
      </geometry>
      <material name="yellow_fabric"/>
    </visual>
    <collision>
      <origin xyz="0.1143 0.0127 -0.0005"/>
      <geometry>
        <box size="0.2286 0.0254 0.001"/>
      </geometry>
    </collision>
  </link>
  <joint name="pod_bin_1l_pod_bin_1l_bottom" type="fixed">
    <parent link="pod_bin_1l"/>
    <child link="pod_bin_1l_bottom"/>
  </joint>
  <joint name="pod_bin_1l_pod_bin_1l_left" type="fixed">
    <origin rpy="1.5707963267948966 0 1.5707963267948966 " xyz="0 0 0"/>
    <parent link="pod_bin_1l"/>
    <child link="pod_bin_1l_left"/>
  </joint>
  <joint name="pod_bin_1l_pod_bin_1l_right" type="fixed">
    <origin rpy="1.5707963267948966 0 1.5707963267948966 " xyz="0.2286 0 0"/>
    <parent link="pod_bin_1l"/>
    <child link="pod_bin_1l_right"/>
  </joint>
  <joint name="pod_bin_1l_pod_bin_1l_top" type="fixed">
    <origin rpy="0 0 0" xyz="0 0 0.15239999999999998"/>
    <parent link="pod_bin_1l"/>
    <child link="pod_bin_1l_top"/>
  </joint>
  <joint name="pod_bin_1l_pod_bin_1l_back" type="fixed">
    <origin rpy="1.5707963267948966 0 0" xyz="0 0.15239999999999998 0"/>
    <parent link="pod_bin_1l"/>
    <child link="pod_bin_1l_back"/>
  </joint>
  <joint name="pod_bin_1l_pod_bin_1l_flap" type="fixed">
    <origin rpy="1.5707963267948966 0 0" xyz="0 0 0"/>
    <parent link="pod_bin_1l"/>
    <child link="pod_bin_1l_flap"/>
  </joint>
  <joint name="pod_shelf_l_pod_bin_1l_joint" type="fixed">
    <origin xyz="0.0 0 0"/>
    <parent link="pod_shelf_l"/>
    <child link="pod_bin_1l"/>
  </joint>
  <link name="pod_bin_2l"/>
  <link name="pod_bin_2l_bottom">
    <inertial>
      <mass value="0.01"/>
      <inertia ixx="0.0002835" ixy="0.0" ixz="0.0" iyy="0.0002835" iyz="0.0" izz="0.000324"/>
    </inertial>
    <visual>
      <origin xyz="0.1143 0.07619999999999999 -0.0005"/>
      <geometry>
        <box size="0.2286 0.15239999999999998 0.001"/>
      </geometry>
      <material name="yellow_fabric"/>
    </visual>
    <collision>
      <origin xyz="0.1143 0.07619999999999999 -0.0005"/>
      <geometry>
        <box size="0.2286 0.15239999999999998 0.001"/>
      </geometry>
    </collision>
  </link>
  <link name="pod_bin_2l_left">
    <inertial>
      <mass value="0.01"/>
      <inertia ixx="0.0002835" ixy="0.0" ixz="0.0" iyy="0.0002835" iyz="0.0" izz="0.000324"/>
    </inertial>
    <visual>
      <origin xyz="0.07619999999999999 0.07619999999999999 -0.0005"/>
      <geometry>
        <box size="0.15239999999999998 0.15239999999999998 0.001"/>
      </geometry>
      <material name="yellow_fabric"/>
    </visual>
    <collision>
      <origin xyz="0.07619999999999999 0.07619999999999999 -0.0005"/>
      <geometry>
        <box size="0.15239999999999998 0.15239999999999998 0.001"/>
      </geometry>
    </collision>
  </link>
  <link name="pod_bin_2l_right">
    <inertial>
      <mass value="0.01"/>
      <inertia ixx="0.0002835" ixy="0.0" ixz="0.0" iyy="0.0002835" iyz="0.0" izz="0.000324"/>
    </inertial>
    <visual>
      <origin xyz="0.07619999999999999 0.07619999999999999 -0.0005"/>
      <geometry>
        <box size="0.15239999999999998 0.15239999999999998 0.001"/>
      </geometry>
      <material name="yellow_fabric"/>
    </visual>
    <collision>
      <origin xyz="0.07619999999999999 0.07619999999999999 -0.0005"/>
      <geometry>
        <box size="0.15239999999999998 0.15239999999999998 0.001"/>
      </geometry>
    </collision>
  </link>
  <link name="pod_bin_2l_top">
    <inertial>
      <mass value="0.01"/>
      <inertia ixx="0.0002835" ixy="0.0" ixz="0.0" iyy="0.0002835" iyz="0.0" izz="0.000324"/>
    </inertial>
    <visual>
      <origin xyz="0.1143 0.07619999999999999 -0.0005"/>
      <geometry>
        <box size="0.2286 0.15239999999999998 0.001"/>
      </geometry>
      <material name="yellow_fabric"/>
    </visual>
    <collision>
      <origin xyz="0.1143 0.07619999999999999 -0.0005"/>
      <geometry>
        <box size="0.2286 0.15239999999999998 0.001"/>
      </geometry>
    </collision>
  </link>
  <link name="pod_bin_2l_back">
    <inertial>
      <mass value="0.01"/>
      <inertia ixx="0.0002835" ixy="0.0" ixz="0.0" iyy="0.0002835" iyz="0.0" izz="0.000324"/>
    </inertial>
    <visual>
      <origin xyz="0.1143 0.07619999999999999 -0.0005"/>
      <geometry>
        <box size="0.2286 0.15239999999999998 0.001"/>
      </geometry>
      <material name="yellow_fabric"/>
    </visual>
    <collision>
      <origin xyz="0.1143 0.07619999999999999 -0.0005"/>
      <geometry>
        <box size="0.2286 0.15239999999999998 0.001"/>
      </geometry>
    </collision>
  </link>
  <link name="pod_bin_2l_flap">
    <inertial>
      <mass value="0.01"/>
      <inertia ixx="0.0002835" ixy="0.0" ixz="0.0" iyy="0.0002835" iyz="0.0" izz="0.000324"/>
    </inertial>
    <visual>
      <origin xyz="0.1143 0.0127 -0.0005"/>
      <geometry>
        <box size="0.2286 0.0254 0.001"/>
      </geometry>
      <material name="yellow_fabric"/>
    </visual>
    <collision>
      <origin xyz="0.1143 0.0127 -0.0005"/>
      <geometry>
        <box size="0.2286 0.0254 0.001"/>
      </geometry>
    </collision>
  </link>
  <joint name="pod_bin_2l_pod_bin_2l_bottom" type="fixed">
    <parent link="pod_bin_2l"/>
    <child link="pod_bin_2l_bottom"/>
  </joint>
  <joint name="pod_bin_2l_pod_bin_2l_left" type="fixed">
    <origin rpy="1.5707963267948966 0 1.5707963267948966 " xyz="0 0 0"/>
    <parent link="pod_bin_2l"/>
    <child link="pod_bin_2l_left"/>
  </joint>
  <joint name="pod_bin_2l_pod_bin_2l_right" type="fixed">
    <origin rpy="1.5707963267948966 0 1.5707963267948966 " xyz="0.2286 0 0"/>
    <parent link="pod_bin_2l"/>
    <child link="pod_bin_2l_right"/>
  </joint>
  <joint name="pod_bin_2l_pod_bin_2l_top" type="fixed">
    <origin rpy="0 0 0" xyz="0 0 0.15239999999999998"/>
    <parent link="pod_bin_2l"/>
    <child link="pod_bin_2l_top"/>
  </joint>
  <joint name="pod_bin_2l_pod_bin_2l_back" type="fixed">
    <origin rpy="1.5707963267948966 0 0" xyz="0 0.15239999999999998 0"/>
    <parent link="pod_bin_2l"/>
    <child link="pod_bin_2l_back"/>
  </joint>
  <joint name="pod_bin_2l_pod_bin_2l_flap" type="fixed">
    <origin rpy="1.5707963267948966 0 0" xyz="0 0 0"/>
    <parent link="pod_bin_2l"/>
    <child link="pod_bin_2l_flap"/>
  </joint>
  <joint name="pod_shelf_l_pod_bin_2l_joint" type="fixed">
    <origin xyz="0.2286 0 0"/>
    <parent link="pod_shelf_l"/>
    <child link="pod_bin_2l"/>
  </joint>
  <link name="pod_bin_3l"/>
  <link name="pod_bin_3l_bottom">
    <inertial>
      <mass value="0.01"/>
      <inertia ixx="0.0002835" ixy="0.0" ixz="0.0" iyy="0.0002835" iyz="0.0" izz="0.000324"/>
    </inertial>
    <visual>
      <origin xyz="0.1143 0.07619999999999999 -0.0005"/>
      <geometry>
        <box size="0.2286 0.15239999999999998 0.001"/>
      </geometry>
      <material name="yellow_fabric"/>
    </visual>
    <collision>
      <origin xyz="0.1143 0.07619999999999999 -0.0005"/>
      <geometry>
        <box size="0.2286 0.15239999999999998 0.001"/>
      </geometry>
    </collision>
  </link>
  <link name="pod_bin_3l_left">
    <inertial>
      <mass value="0.01"/>
      <inertia ixx="0.0002835" ixy="0.0" ixz="0.0" iyy="0.0002835" iyz="0.0" izz="0.000324"/>
    </inertial>
    <visual>
      <origin xyz="0.07619999999999999 0.07619999999999999 -0.0005"/>
      <geometry>
        <box size="0.15239999999999998 0.15239999999999998 0.001"/>
      </geometry>
      <material name="yellow_fabric"/>
    </visual>
    <collision>
      <origin xyz="0.07619999999999999 0.07619999999999999 -0.0005"/>
      <geometry>
        <box size="0.15239999999999998 0.15239999999999998 0.001"/>
      </geometry>
    </collision>
  </link>
  <link name="pod_bin_3l_right">
    <inertial>
      <mass value="0.01"/>
      <inertia ixx="0.0002835" ixy="0.0" ixz="0.0" iyy="0.0002835" iyz="0.0" izz="0.000324"/>
    </inertial>
    <visual>
      <origin xyz="0.07619999999999999 0.07619999999999999 -0.0005"/>
      <geometry>
        <box size="0.15239999999999998 0.15239999999999998 0.001"/>
      </geometry>
      <material name="yellow_fabric"/>
    </visual>
    <collision>
      <origin xyz="0.07619999999999999 0.07619999999999999 -0.0005"/>
      <geometry>
        <box size="0.15239999999999998 0.15239999999999998 0.001"/>
      </geometry>
    </collision>
  </link>
  <link name="pod_bin_3l_top">
    <inertial>
      <mass value="0.01"/>
      <inertia ixx="0.0002835" ixy="0.0" ixz="0.0" iyy="0.0002835" iyz="0.0" izz="0.000324"/>
    </inertial>
    <visual>
      <origin xyz="0.1143 0.07619999999999999 -0.0005"/>
      <geometry>
        <box size="0.2286 0.15239999999999998 0.001"/>
      </geometry>
      <material name="yellow_fabric"/>
    </visual>
    <collision>
      <origin xyz="0.1143 0.07619999999999999 -0.0005"/>
      <geometry>
        <box size="0.2286 0.15239999999999998 0.001"/>
      </geometry>
    </collision>
  </link>
  <link name="pod_bin_3l_back">
    <inertial>
      <mass value="0.01"/>
      <inertia ixx="0.0002835" ixy="0.0" ixz="0.0" iyy="0.0002835" iyz="0.0" izz="0.000324"/>
    </inertial>
    <visual>
      <origin xyz="0.1143 0.07619999999999999 -0.0005"/>
      <geometry>
        <box size="0.2286 0.15239999999999998 0.001"/>
      </geometry>
      <material name="yellow_fabric"/>
    </visual>
    <collision>
      <origin xyz="0.1143 0.07619999999999999 -0.0005"/>
      <geometry>
        <box size="0.2286 0.15239999999999998 0.001"/>
      </geometry>
    </collision>
  </link>
  <link name="pod_bin_3l_flap">
    <inertial>
      <mass value="0.01"/>
      <inertia ixx="0.0002835" ixy="0.0" ixz="0.0" iyy="0.0002835" iyz="0.0" izz="0.000324"/>
    </inertial>
    <visual>
      <origin xyz="0.1143 0.0127 -0.0005"/>
      <geometry>
        <box size="0.2286 0.0254 0.001"/>
      </geometry>
      <material name="yellow_fabric"/>
    </visual>
    <collision>
      <origin xyz="0.1143 0.0127 -0.0005"/>
      <geometry>
        <box size="0.2286 0.0254 0.001"/>
      </geometry>
    </collision>
  </link>
  <joint name="pod_bin_3l_pod_bin_3l_bottom" type="fixed">
    <parent link="pod_bin_3l"/>
    <child link="pod_bin_3l_bottom"/>
  </joint>
  <joint name="pod_bin_3l_pod_bin_3l_left" type="fixed">
    <origin rpy="1.5707963267948966 0 1.5707963267948966 " xyz="0 0 0"/>
    <parent link="pod_bin_3l"/>
    <child link="pod_bin_3l_left"/>
  </joint>
  <joint name="pod_bin_3l_pod_bin_3l_right" type="fixed">
    <origin rpy="1.5707963267948966 0 1.5707963267948966 " xyz="0.2286 0 0"/>
    <parent link="pod_bin_3l"/>
    <child link="pod_bin_3l_right"/>
  </joint>
  <joint name="pod_bin_3l_pod_bin_3l_top" type="fixed">
    <origin rpy="0 0 0" xyz="0 0 0.15239999999999998"/>
    <parent link="pod_bin_3l"/>
    <child link="pod_bin_3l_top"/>
  </joint>
  <joint name="pod_bin_3l_pod_bin_3l_back" type="fixed">
    <origin rpy="1.5707963267948966 0 0" xyz="0 0.15239999999999998 0"/>
    <parent link="pod_bin_3l"/>
    <child link="pod_bin_3l_back"/>
  </joint>
  <joint name="pod_bin_3l_pod_bin_3l_flap" type="fixed">
    <origin rpy="1.5707963267948966 0 0" xyz="0 0 0"/>
    <parent link="pod_bin_3l"/>
    <child link="pod_bin_3l_flap"/>
  </joint>
  <joint name="pod_shelf_l_pod_bin_3l_joint" type="fixed">
    <origin xyz="0.4572 0 0"/>
    <parent link="pod_shelf_l"/>
    <child link="pod_bin_3l"/>
  </joint>
  <link name="pod_bin_4l"/>
  <link name="pod_bin_4l_bottom">
    <inertial>
      <mass value="0.01"/>
      <inertia ixx="0.0002835" ixy="0.0" ixz="0.0" iyy="0.0002835" iyz="0.0" izz="0.000324"/>
    </inertial>
    <visual>
      <origin xyz="0.1143 0.07619999999999999 -0.0005"/>
      <geometry>
        <box size="0.2286 0.15239999999999998 0.001"/>
      </geometry>
      <material name="yellow_fabric"/>
    </visual>
    <collision>
      <origin xyz="0.1143 0.07619999999999999 -0.0005"/>
      <geometry>
        <box size="0.2286 0.15239999999999998 0.001"/>
      </geometry>
    </collision>
  </link>
  <link name="pod_bin_4l_left">
    <inertial>
      <mass value="0.01"/>
      <inertia ixx="0.0002835" ixy="0.0" ixz="0.0" iyy="0.0002835" iyz="0.0" izz="0.000324"/>
    </inertial>
    <visual>
      <origin xyz="0.07619999999999999 0.07619999999999999 -0.0005"/>
      <geometry>
        <box size="0.15239999999999998 0.15239999999999998 0.001"/>
      </geometry>
      <material name="yellow_fabric"/>
    </visual>
    <collision>
      <origin xyz="0.07619999999999999 0.07619999999999999 -0.0005"/>
      <geometry>
        <box size="0.15239999999999998 0.15239999999999998 0.001"/>
      </geometry>
    </collision>
  </link>
  <link name="pod_bin_4l_right">
    <inertial>
      <mass value="0.01"/>
      <inertia ixx="0.0002835" ixy="0.0" ixz="0.0" iyy="0.0002835" iyz="0.0" izz="0.000324"/>
    </inertial>
    <visual>
      <origin xyz="0.07619999999999999 0.07619999999999999 -0.0005"/>
      <geometry>
        <box size="0.15239999999999998 0.15239999999999998 0.001"/>
      </geometry>
      <material name="yellow_fabric"/>
    </visual>
    <collision>
      <origin xyz="0.07619999999999999 0.07619999999999999 -0.0005"/>
      <geometry>
        <box size="0.15239999999999998 0.15239999999999998 0.001"/>
      </geometry>
    </collision>
  </link>
  <link name="pod_bin_4l_top">
    <inertial>
      <mass value="0.01"/>
      <inertia ixx="0.0002835" ixy="0.0" ixz="0.0" iyy="0.0002835" iyz="0.0" izz="0.000324"/>
    </inertial>
    <visual>
      <origin xyz="0.1143 0.07619999999999999 -0.0005"/>
      <geometry>
        <box size="0.2286 0.15239999999999998 0.001"/>
      </geometry>
      <material name="yellow_fabric"/>
    </visual>
    <collision>
      <origin xyz="0.1143 0.07619999999999999 -0.0005"/>
      <geometry>
        <box size="0.2286 0.15239999999999998 0.001"/>
      </geometry>
    </collision>
  </link>
  <link name="pod_bin_4l_back">
    <inertial>
      <mass value="0.01"/>
      <inertia ixx="0.0002835" ixy="0.0" ixz="0.0" iyy="0.0002835" iyz="0.0" izz="0.000324"/>
    </inertial>
    <visual>
      <origin xyz="0.1143 0.07619999999999999 -0.0005"/>
      <geometry>
        <box size="0.2286 0.15239999999999998 0.001"/>
      </geometry>
      <material name="yellow_fabric"/>
    </visual>
    <collision>
      <origin xyz="0.1143 0.07619999999999999 -0.0005"/>
      <geometry>
        <box size="0.2286 0.15239999999999998 0.001"/>
      </geometry>
    </collision>
  </link>
  <link name="pod_bin_4l_flap">
    <inertial>
      <mass value="0.01"/>
      <inertia ixx="0.0002835" ixy="0.0" ixz="0.0" iyy="0.0002835" iyz="0.0" izz="0.000324"/>
    </inertial>
    <visual>
      <origin xyz="0.1143 0.0127 -0.0005"/>
      <geometry>
        <box size="0.2286 0.0254 0.001"/>
      </geometry>
      <material name="yellow_fabric"/>
    </visual>
    <collision>
      <origin xyz="0.1143 0.0127 -0.0005"/>
      <geometry>
        <box size="0.2286 0.0254 0.001"/>
      </geometry>
    </collision>
  </link>
  <joint name="pod_bin_4l_pod_bin_4l_bottom" type="fixed">
    <parent link="pod_bin_4l"/>
    <child link="pod_bin_4l_bottom"/>
  </joint>
  <joint name="pod_bin_4l_pod_bin_4l_left" type="fixed">
    <origin rpy="1.5707963267948966 0 1.5707963267948966 " xyz="0 0 0"/>
    <parent link="pod_bin_4l"/>
    <child link="pod_bin_4l_left"/>
  </joint>
  <joint name="pod_bin_4l_pod_bin_4l_right" type="fixed">
    <origin rpy="1.5707963267948966 0 1.5707963267948966 " xyz="0.2286 0 0"/>
    <parent link="pod_bin_4l"/>
    <child link="pod_bin_4l_right"/>
  </joint>
  <joint name="pod_bin_4l_pod_bin_4l_top" type="fixed">
    <origin rpy="0 0 0" xyz="0 0 0.15239999999999998"/>
    <parent link="pod_bin_4l"/>
    <child link="pod_bin_4l_top"/>
  </joint>
  <joint name="pod_bin_4l_pod_bin_4l_back" type="fixed">
    <origin rpy="1.5707963267948966 0 0" xyz="0 0.15239999999999998 0"/>
    <parent link="pod_bin_4l"/>
    <child link="pod_bin_4l_back"/>
  </joint>
  <joint name="pod_bin_4l_pod_bin_4l_flap" type="fixed">
    <origin rpy="1.5707963267948966 0 0" xyz="0 0 0"/>
    <parent link="pod_bin_4l"/>
    <child link="pod_bin_4l_flap"/>
  </joint>
  <joint name="pod_shelf_l_pod_bin_4l_joint" type="fixed">
    <origin xyz="0.6858 0 0"/>
    <parent link="pod_shelf_l"/>
    <child link="pod_bin_4l"/>
  </joint>
  <joint name="pod_fabric_base_pod_shelf_l_joint" type="fixed">
    <origin xyz="0 0 1.7970499999999998"/>
    <parent link="pod_fabric_base"/>
    <child link="pod_shelf_l"/>
  </joint>
  <link name="pod_shelf_m"/>
  <link name="pod_bin_1m"/>
  <link name="pod_bin_1m_bottom">
    <inertial>
      <mass value="0.01"/>
      <inertia ixx="0.0002835" ixy="0.0" ixz="0.0" iyy="0.0002835" iyz="0.0" izz="0.000324"/>
    </inertial>
    <visual>
      <origin xyz="0.1143 0.07619999999999999 -0.0005"/>
      <geometry>
        <box size="0.2286 0.15239999999999998 0.001"/>
      </geometry>
      <material name="yellow_fabric"/>
    </visual>
    <collision>
      <origin xyz="0.1143 0.07619999999999999 -0.0005"/>
      <geometry>
        <box size="0.2286 0.15239999999999998 0.001"/>
      </geometry>
    </collision>
  </link>
  <link name="pod_bin_1m_left">
    <inertial>
      <mass value="0.01"/>
      <inertia ixx="0.0002835" ixy="0.0" ixz="0.0" iyy="0.0002835" iyz="0.0" izz="0.000324"/>
    </inertial>
    <visual>
      <origin xyz="0.07619999999999999 0.1397 -0.0005"/>
      <geometry>
        <box size="0.15239999999999998 0.2794 0.001"/>
      </geometry>
      <material name="yellow_fabric"/>
    </visual>
    <collision>
      <origin xyz="0.07619999999999999 0.1397 -0.0005"/>
      <geometry>
        <box size="0.15239999999999998 0.2794 0.001"/>
      </geometry>
    </collision>
  </link>
  <link name="pod_bin_1m_right">
    <inertial>
      <mass value="0.01"/>
      <inertia ixx="0.0002835" ixy="0.0" ixz="0.0" iyy="0.0002835" iyz="0.0" izz="0.000324"/>
    </inertial>
    <visual>
      <origin xyz="0.07619999999999999 0.1397 -0.0005"/>
      <geometry>
        <box size="0.15239999999999998 0.2794 0.001"/>
      </geometry>
      <material name="yellow_fabric"/>
    </visual>
    <collision>
      <origin xyz="0.07619999999999999 0.1397 -0.0005"/>
      <geometry>
        <box size="0.15239999999999998 0.2794 0.001"/>
      </geometry>
    </collision>
  </link>
  <link name="pod_bin_1m_top">
    <inertial>
      <mass value="0.01"/>
      <inertia ixx="0.0002835" ixy="0.0" ixz="0.0" iyy="0.0002835" iyz="0.0" izz="0.000324"/>
    </inertial>
    <visual>
      <origin xyz="0.1143 0.07619999999999999 -0.0005"/>
      <geometry>
        <box size="0.2286 0.15239999999999998 0.001"/>
      </geometry>
      <material name="yellow_fabric"/>
    </visual>
    <collision>
      <origin xyz="0.1143 0.07619999999999999 -0.0005"/>
      <geometry>
        <box size="0.2286 0.15239999999999998 0.001"/>
      </geometry>
    </collision>
  </link>
  <link name="pod_bin_1m_back">
    <inertial>
      <mass value="0.01"/>
      <inertia ixx="0.0002835" ixy="0.0" ixz="0.0" iyy="0.0002835" iyz="0.0" izz="0.000324"/>
    </inertial>
    <visual>
      <origin xyz="0.1143 0.1397 -0.0005"/>
      <geometry>
        <box size="0.2286 0.2794 0.001"/>
      </geometry>
      <material name="yellow_fabric"/>
    </visual>
    <collision>
      <origin xyz="0.1143 0.1397 -0.0005"/>
      <geometry>
        <box size="0.2286 0.2794 0.001"/>
      </geometry>
    </collision>
  </link>
  <link name="pod_bin_1m_flap">
    <inertial>
      <mass value="0.01"/>
      <inertia ixx="0.0002835" ixy="0.0" ixz="0.0" iyy="0.0002835" iyz="0.0" izz="0.000324"/>
    </inertial>
    <visual>
      <origin xyz="0.1143 0.0127 -0.0005"/>
      <geometry>
        <box size="0.2286 0.0254 0.001"/>
      </geometry>
      <material name="yellow_fabric"/>
    </visual>
    <collision>
      <origin xyz="0.1143 0.0127 -0.0005"/>
      <geometry>
        <box size="0.2286 0.0254 0.001"/>
      </geometry>
    </collision>
  </link>
  <joint name="pod_bin_1m_pod_bin_1m_bottom" type="fixed">
    <parent link="pod_bin_1m"/>
    <child link="pod_bin_1m_bottom"/>
  </joint>
  <joint name="pod_bin_1m_pod_bin_1m_left" type="fixed">
    <origin rpy="1.5707963267948966 0 1.5707963267948966 " xyz="0 0 0"/>
    <parent link="pod_bin_1m"/>
    <child link="pod_bin_1m_left"/>
  </joint>
  <joint name="pod_bin_1m_pod_bin_1m_right" type="fixed">
    <origin rpy="1.5707963267948966 0 1.5707963267948966 " xyz="0.2286 0 0"/>
    <parent link="pod_bin_1m"/>
    <child link="pod_bin_1m_right"/>
  </joint>
  <joint name="pod_bin_1m_pod_bin_1m_top" type="fixed">
    <origin rpy="0 0 0" xyz="0 0 0.2794"/>
    <parent link="pod_bin_1m"/>
    <child link="pod_bin_1m_top"/>
  </joint>
  <joint name="pod_bin_1m_pod_bin_1m_back" type="fixed">
    <origin rpy="1.5707963267948966 0 0" xyz="0 0.15239999999999998 0"/>
    <parent link="pod_bin_1m"/>
    <child link="pod_bin_1m_back"/>
  </joint>
  <joint name="pod_bin_1m_pod_bin_1m_flap" type="fixed">
    <origin rpy="1.5707963267948966 0 0" xyz="0 0 0"/>
    <parent link="pod_bin_1m"/>
    <child link="pod_bin_1m_flap"/>
  </joint>
  <joint name="pod_shelf_m_pod_bin_1m_joint" type="fixed">
    <origin xyz="0.0 0 0"/>
    <parent link="pod_shelf_m"/>
    <child link="pod_bin_1m"/>
  </joint>
  <link name="pod_bin_2m"/>
  <link name="pod_bin_2m_bottom">
    <inertial>
      <mass value="0.01"/>
      <inertia ixx="0.0002835" ixy="0.0" ixz="0.0" iyy="0.0002835" iyz="0.0" izz="0.000324"/>
    </inertial>
    <visual>
      <origin xyz="0.1143 0.07619999999999999 -0.0005"/>
      <geometry>
        <box size="0.2286 0.15239999999999998 0.001"/>
      </geometry>
      <material name="yellow_fabric"/>
    </visual>
    <collision>
      <origin xyz="0.1143 0.07619999999999999 -0.0005"/>
      <geometry>
        <box size="0.2286 0.15239999999999998 0.001"/>
      </geometry>
    </collision>
  </link>
  <link name="pod_bin_2m_left">
    <inertial>
      <mass value="0.01"/>
      <inertia ixx="0.0002835" ixy="0.0" ixz="0.0" iyy="0.0002835" iyz="0.0" izz="0.000324"/>
    </inertial>
    <visual>
      <origin xyz="0.07619999999999999 0.1397 -0.0005"/>
      <geometry>
        <box size="0.15239999999999998 0.2794 0.001"/>
      </geometry>
      <material name="yellow_fabric"/>
    </visual>
    <collision>
      <origin xyz="0.07619999999999999 0.1397 -0.0005"/>
      <geometry>
        <box size="0.15239999999999998 0.2794 0.001"/>
      </geometry>
    </collision>
  </link>
  <link name="pod_bin_2m_right">
    <inertial>
      <mass value="0.01"/>
      <inertia ixx="0.0002835" ixy="0.0" ixz="0.0" iyy="0.0002835" iyz="0.0" izz="0.000324"/>
    </inertial>
    <visual>
      <origin xyz="0.07619999999999999 0.1397 -0.0005"/>
      <geometry>
        <box size="0.15239999999999998 0.2794 0.001"/>
      </geometry>
      <material name="yellow_fabric"/>
    </visual>
    <collision>
      <origin xyz="0.07619999999999999 0.1397 -0.0005"/>
      <geometry>
        <box size="0.15239999999999998 0.2794 0.001"/>
      </geometry>
    </collision>
  </link>
  <link name="pod_bin_2m_top">
    <inertial>
      <mass value="0.01"/>
      <inertia ixx="0.0002835" ixy="0.0" ixz="0.0" iyy="0.0002835" iyz="0.0" izz="0.000324"/>
    </inertial>
    <visual>
      <origin xyz="0.1143 0.07619999999999999 -0.0005"/>
      <geometry>
        <box size="0.2286 0.15239999999999998 0.001"/>
      </geometry>
      <material name="yellow_fabric"/>
    </visual>
    <collision>
      <origin xyz="0.1143 0.07619999999999999 -0.0005"/>
      <geometry>
        <box size="0.2286 0.15239999999999998 0.001"/>
      </geometry>
    </collision>
  </link>
  <link name="pod_bin_2m_back">
    <inertial>
      <mass value="0.01"/>
      <inertia ixx="0.0002835" ixy="0.0" ixz="0.0" iyy="0.0002835" iyz="0.0" izz="0.000324"/>
    </inertial>
    <visual>
      <origin xyz="0.1143 0.1397 -0.0005"/>
      <geometry>
        <box size="0.2286 0.2794 0.001"/>
      </geometry>
      <material name="yellow_fabric"/>
    </visual>
    <collision>
      <origin xyz="0.1143 0.1397 -0.0005"/>
      <geometry>
        <box size="0.2286 0.2794 0.001"/>
      </geometry>
    </collision>
  </link>
  <link name="pod_bin_2m_flap">
    <inertial>
      <mass value="0.01"/>
      <inertia ixx="0.0002835" ixy="0.0" ixz="0.0" iyy="0.0002835" iyz="0.0" izz="0.000324"/>
    </inertial>
    <visual>
      <origin xyz="0.1143 0.0127 -0.0005"/>
      <geometry>
        <box size="0.2286 0.0254 0.001"/>
      </geometry>
      <material name="yellow_fabric"/>
    </visual>
    <collision>
      <origin xyz="0.1143 0.0127 -0.0005"/>
      <geometry>
        <box size="0.2286 0.0254 0.001"/>
      </geometry>
    </collision>
  </link>
  <joint name="pod_bin_2m_pod_bin_2m_bottom" type="fixed">
    <parent link="pod_bin_2m"/>
    <child link="pod_bin_2m_bottom"/>
  </joint>
  <joint name="pod_bin_2m_pod_bin_2m_left" type="fixed">
    <origin rpy="1.5707963267948966 0 1.5707963267948966 " xyz="0 0 0"/>
    <parent link="pod_bin_2m"/>
    <child link="pod_bin_2m_left"/>
  </joint>
  <joint name="pod_bin_2m_pod_bin_2m_right" type="fixed">
    <origin rpy="1.5707963267948966 0 1.5707963267948966 " xyz="0.2286 0 0"/>
    <parent link="pod_bin_2m"/>
    <child link="pod_bin_2m_right"/>
  </joint>
  <joint name="pod_bin_2m_pod_bin_2m_top" type="fixed">
    <origin rpy="0 0 0" xyz="0 0 0.2794"/>
    <parent link="pod_bin_2m"/>
    <child link="pod_bin_2m_top"/>
  </joint>
  <joint name="pod_bin_2m_pod_bin_2m_back" type="fixed">
    <origin rpy="1.5707963267948966 0 0" xyz="0 0.15239999999999998 0"/>
    <parent link="pod_bin_2m"/>
    <child link="pod_bin_2m_back"/>
  </joint>
  <joint name="pod_bin_2m_pod_bin_2m_flap" type="fixed">
    <origin rpy="1.5707963267948966 0 0" xyz="0 0 0"/>
    <parent link="pod_bin_2m"/>
    <child link="pod_bin_2m_flap"/>
  </joint>
  <joint name="pod_shelf_m_pod_bin_2m_joint" type="fixed">
    <origin xyz="0.2286 0 0"/>
    <parent link="pod_shelf_m"/>
    <child link="pod_bin_2m"/>
  </joint>
  <link name="pod_bin_3m"/>
  <link name="pod_bin_3m_bottom">
    <inertial>
      <mass value="0.01"/>
      <inertia ixx="0.0002835" ixy="0.0" ixz="0.0" iyy="0.0002835" iyz="0.0" izz="0.000324"/>
    </inertial>
    <visual>
      <origin xyz="0.1143 0.07619999999999999 -0.0005"/>
      <geometry>
        <box size="0.2286 0.15239999999999998 0.001"/>
      </geometry>
      <material name="yellow_fabric"/>
    </visual>
    <collision>
      <origin xyz="0.1143 0.07619999999999999 -0.0005"/>
      <geometry>
        <box size="0.2286 0.15239999999999998 0.001"/>
      </geometry>
    </collision>
  </link>
  <link name="pod_bin_3m_left">
    <inertial>
      <mass value="0.01"/>
      <inertia ixx="0.0002835" ixy="0.0" ixz="0.0" iyy="0.0002835" iyz="0.0" izz="0.000324"/>
    </inertial>
    <visual>
      <origin xyz="0.07619999999999999 0.1397 -0.0005"/>
      <geometry>
        <box size="0.15239999999999998 0.2794 0.001"/>
      </geometry>
      <material name="yellow_fabric"/>
    </visual>
    <collision>
      <origin xyz="0.07619999999999999 0.1397 -0.0005"/>
      <geometry>
        <box size="0.15239999999999998 0.2794 0.001"/>
      </geometry>
    </collision>
  </link>
  <link name="pod_bin_3m_right">
    <inertial>
      <mass value="0.01"/>
      <inertia ixx="0.0002835" ixy="0.0" ixz="0.0" iyy="0.0002835" iyz="0.0" izz="0.000324"/>
    </inertial>
    <visual>
      <origin xyz="0.07619999999999999 0.1397 -0.0005"/>
      <geometry>
        <box size="0.15239999999999998 0.2794 0.001"/>
      </geometry>
      <material name="yellow_fabric"/>
    </visual>
    <collision>
      <origin xyz="0.07619999999999999 0.1397 -0.0005"/>
      <geometry>
        <box size="0.15239999999999998 0.2794 0.001"/>
      </geometry>
    </collision>
  </link>
  <link name="pod_bin_3m_top">
    <inertial>
      <mass value="0.01"/>
      <inertia ixx="0.0002835" ixy="0.0" ixz="0.0" iyy="0.0002835" iyz="0.0" izz="0.000324"/>
    </inertial>
    <visual>
      <origin xyz="0.1143 0.07619999999999999 -0.0005"/>
      <geometry>
        <box size="0.2286 0.15239999999999998 0.001"/>
      </geometry>
      <material name="yellow_fabric"/>
    </visual>
    <collision>
      <origin xyz="0.1143 0.07619999999999999 -0.0005"/>
      <geometry>
        <box size="0.2286 0.15239999999999998 0.001"/>
      </geometry>
    </collision>
  </link>
  <link name="pod_bin_3m_back">
    <inertial>
      <mass value="0.01"/>
      <inertia ixx="0.0002835" ixy="0.0" ixz="0.0" iyy="0.0002835" iyz="0.0" izz="0.000324"/>
    </inertial>
    <visual>
      <origin xyz="0.1143 0.1397 -0.0005"/>
      <geometry>
        <box size="0.2286 0.2794 0.001"/>
      </geometry>
      <material name="yellow_fabric"/>
    </visual>
    <collision>
      <origin xyz="0.1143 0.1397 -0.0005"/>
      <geometry>
        <box size="0.2286 0.2794 0.001"/>
      </geometry>
    </collision>
  </link>
  <link name="pod_bin_3m_flap">
    <inertial>
      <mass value="0.01"/>
      <inertia ixx="0.0002835" ixy="0.0" ixz="0.0" iyy="0.0002835" iyz="0.0" izz="0.000324"/>
    </inertial>
    <visual>
      <origin xyz="0.1143 0.0127 -0.0005"/>
      <geometry>
        <box size="0.2286 0.0254 0.001"/>
      </geometry>
      <material name="yellow_fabric"/>
    </visual>
    <collision>
      <origin xyz="0.1143 0.0127 -0.0005"/>
      <geometry>
        <box size="0.2286 0.0254 0.001"/>
      </geometry>
    </collision>
  </link>
  <joint name="pod_bin_3m_pod_bin_3m_bottom" type="fixed">
    <parent link="pod_bin_3m"/>
    <child link="pod_bin_3m_bottom"/>
  </joint>
  <joint name="pod_bin_3m_pod_bin_3m_left" type="fixed">
    <origin rpy="1.5707963267948966 0 1.5707963267948966 " xyz="0 0 0"/>
    <parent link="pod_bin_3m"/>
    <child link="pod_bin_3m_left"/>
  </joint>
  <joint name="pod_bin_3m_pod_bin_3m_right" type="fixed">
    <origin rpy="1.5707963267948966 0 1.5707963267948966 " xyz="0.2286 0 0"/>
    <parent link="pod_bin_3m"/>
    <child link="pod_bin_3m_right"/>
  </joint>
  <joint name="pod_bin_3m_pod_bin_3m_top" type="fixed">
    <origin rpy="0 0 0" xyz="0 0 0.2794"/>
    <parent link="pod_bin_3m"/>
    <child link="pod_bin_3m_top"/>
  </joint>
  <joint name="pod_bin_3m_pod_bin_3m_back" type="fixed">
    <origin rpy="1.5707963267948966 0 0" xyz="0 0.15239999999999998 0"/>
    <parent link="pod_bin_3m"/>
    <child link="pod_bin_3m_back"/>
  </joint>
  <joint name="pod_bin_3m_pod_bin_3m_flap" type="fixed">
    <origin rpy="1.5707963267948966 0 0" xyz="0 0 0"/>
    <parent link="pod_bin_3m"/>
    <child link="pod_bin_3m_flap"/>
  </joint>
  <joint name="pod_shelf_m_pod_bin_3m_joint" type="fixed">
    <origin xyz="0.4572 0 0"/>
    <parent link="pod_shelf_m"/>
    <child link="pod_bin_3m"/>
  </joint>
  <link name="pod_bin_4m"/>
  <link name="pod_bin_4m_bottom">
    <inertial>
      <mass value="0.01"/>
      <inertia ixx="0.0002835" ixy="0.0" ixz="0.0" iyy="0.0002835" iyz="0.0" izz="0.000324"/>
    </inertial>
    <visual>
      <origin xyz="0.1143 0.07619999999999999 -0.0005"/>
      <geometry>
        <box size="0.2286 0.15239999999999998 0.001"/>
      </geometry>
      <material name="yellow_fabric"/>
    </visual>
    <collision>
      <origin xyz="0.1143 0.07619999999999999 -0.0005"/>
      <geometry>
        <box size="0.2286 0.15239999999999998 0.001"/>
      </geometry>
    </collision>
  </link>
  <link name="pod_bin_4m_left">
    <inertial>
      <mass value="0.01"/>
      <inertia ixx="0.0002835" ixy="0.0" ixz="0.0" iyy="0.0002835" iyz="0.0" izz="0.000324"/>
    </inertial>
    <visual>
      <origin xyz="0.07619999999999999 0.1397 -0.0005"/>
      <geometry>
        <box size="0.15239999999999998 0.2794 0.001"/>
      </geometry>
      <material name="yellow_fabric"/>
    </visual>
    <collision>
      <origin xyz="0.07619999999999999 0.1397 -0.0005"/>
      <geometry>
        <box size="0.15239999999999998 0.2794 0.001"/>
      </geometry>
    </collision>
  </link>
  <link name="pod_bin_4m_right">
    <inertial>
      <mass value="0.01"/>
      <inertia ixx="0.0002835" ixy="0.0" ixz="0.0" iyy="0.0002835" iyz="0.0" izz="0.000324"/>
    </inertial>
    <visual>
      <origin xyz="0.07619999999999999 0.1397 -0.0005"/>
      <geometry>
        <box size="0.15239999999999998 0.2794 0.001"/>
      </geometry>
      <material name="yellow_fabric"/>
    </visual>
    <collision>
      <origin xyz="0.07619999999999999 0.1397 -0.0005"/>
      <geometry>
        <box size="0.15239999999999998 0.2794 0.001"/>
      </geometry>
    </collision>
  </link>
  <link name="pod_bin_4m_top">
    <inertial>
      <mass value="0.01"/>
      <inertia ixx="0.0002835" ixy="0.0" ixz="0.0" iyy="0.0002835" iyz="0.0" izz="0.000324"/>
    </inertial>
    <visual>
      <origin xyz="0.1143 0.07619999999999999 -0.0005"/>
      <geometry>
        <box size="0.2286 0.15239999999999998 0.001"/>
      </geometry>
      <material name="yellow_fabric"/>
    </visual>
    <collision>
      <origin xyz="0.1143 0.07619999999999999 -0.0005"/>
      <geometry>
        <box size="0.2286 0.15239999999999998 0.001"/>
      </geometry>
    </collision>
  </link>
  <link name="pod_bin_4m_back">
    <inertial>
      <mass value="0.01"/>
      <inertia ixx="0.0002835" ixy="0.0" ixz="0.0" iyy="0.0002835" iyz="0.0" izz="0.000324"/>
    </inertial>
    <visual>
      <origin xyz="0.1143 0.1397 -0.0005"/>
      <geometry>
        <box size="0.2286 0.2794 0.001"/>
      </geometry>
      <material name="yellow_fabric"/>
    </visual>
    <collision>
      <origin xyz="0.1143 0.1397 -0.0005"/>
      <geometry>
        <box size="0.2286 0.2794 0.001"/>
      </geometry>
    </collision>
  </link>
  <link name="pod_bin_4m_flap">
    <inertial>
      <mass value="0.01"/>
      <inertia ixx="0.0002835" ixy="0.0" ixz="0.0" iyy="0.0002835" iyz="0.0" izz="0.000324"/>
    </inertial>
    <visual>
      <origin xyz="0.1143 0.0127 -0.0005"/>
      <geometry>
        <box size="0.2286 0.0254 0.001"/>
      </geometry>
      <material name="yellow_fabric"/>
    </visual>
    <collision>
      <origin xyz="0.1143 0.0127 -0.0005"/>
      <geometry>
        <box size="0.2286 0.0254 0.001"/>
      </geometry>
    </collision>
  </link>
  <joint name="pod_bin_4m_pod_bin_4m_bottom" type="fixed">
    <parent link="pod_bin_4m"/>
    <child link="pod_bin_4m_bottom"/>
  </joint>
  <joint name="pod_bin_4m_pod_bin_4m_left" type="fixed">
    <origin rpy="1.5707963267948966 0 1.5707963267948966 " xyz="0 0 0"/>
    <parent link="pod_bin_4m"/>
    <child link="pod_bin_4m_left"/>
  </joint>
  <joint name="pod_bin_4m_pod_bin_4m_right" type="fixed">
    <origin rpy="1.5707963267948966 0 1.5707963267948966 " xyz="0.2286 0 0"/>
    <parent link="pod_bin_4m"/>
    <child link="pod_bin_4m_right"/>
  </joint>
  <joint name="pod_bin_4m_pod_bin_4m_top" type="fixed">
    <origin rpy="0 0 0" xyz="0 0 0.2794"/>
    <parent link="pod_bin_4m"/>
    <child link="pod_bin_4m_top"/>
  </joint>
  <joint name="pod_bin_4m_pod_bin_4m_back" type="fixed">
    <origin rpy="1.5707963267948966 0 0" xyz="0 0.15239999999999998 0"/>
    <parent link="pod_bin_4m"/>
    <child link="pod_bin_4m_back"/>
  </joint>
  <joint name="pod_bin_4m_pod_bin_4m_flap" type="fixed">
    <origin rpy="1.5707963267948966 0 0" xyz="0 0 0"/>
    <parent link="pod_bin_4m"/>
    <child link="pod_bin_4m_flap"/>
  </joint>
  <joint name="pod_shelf_m_pod_bin_4m_joint" type="revolute">
    <origin xyz="0.6858 0 0"/>
    <parent link="pod_shelf_m"/>
    <child link="pod_bin_4m"/>
  </joint>
  <joint name="pod_fabric_base_pod_shelf_m_joint" type="fixed">
    <origin xyz="0 0 1.9494499999999997"/>
    <parent link="pod_fabric_base"/>
    <child link="pod_shelf_m"/>
  </joint>
  <!-- Front left corner -->
  <!-- Layers, frame at bottom left of each bin -->
</robot>
